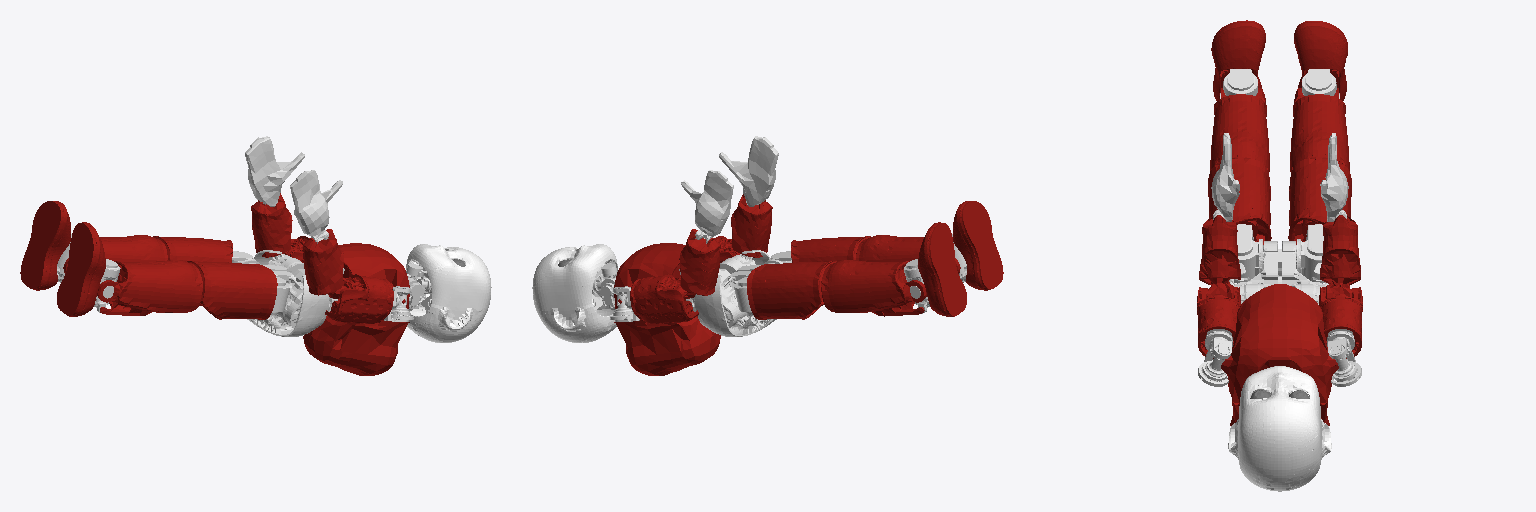
--- What the picture shows (computed from the rendered views, not written in the file) ---
Views: 3 orthographic renders of the robot side by side, from view 1: azimuth 30°, elevation 25°; view 2: azimuth 150°, elevation 25°; view 3: azimuth 270°, elevation 25°.
Model iCub with 221 links and 220 joints (35 revolute, 185 fixed), rooted at root_link_ems_gyro_eb5, posed joints at zero except 4 at the middle of their limits (r_ankle_pitch = 0.0349, l_ankle_pitch = 0.0349, r_elbow = 1.06, l_elbow = 1.06).
Links seen in each view (by area): view 1: chest, head, l_lower_leg, l_upper_leg, root_link, l_foot, r_foot, l_upper_arm, r_hand, l_forearm, l_hand, r_forearm (+2 smaller); view 2: chest, head, r_lower_leg, r_upper_leg, root_link, r_foot, l_foot, r_upper_arm, l_hand, r_forearm, r_hand, l_forearm (+2 smaller); view 3: head, chest, r_lower_leg, l_lower_leg, r_upper_leg, l_upper_leg, l_foot, r_foot, root_link, r_forearm, l_forearm, l_upper_arm (+7 smaller).
Link boxes in pixels (bbox=[...]): chest: bbox=[303, 243, 409, 375]; head: bbox=[406, 244, 491, 342]; l_lower_leg: bbox=[97, 260, 202, 315]; l_upper_leg: bbox=[187, 261, 277, 319]; root_link: bbox=[247, 250, 337, 336]; l_foot: bbox=[57, 222, 105, 316]; r_foot: bbox=[20, 201, 70, 290]; l_upper_arm: bbox=[325, 274, 393, 323]; r_hand: bbox=[245, 136, 304, 206]; l_forearm: bbox=[303, 229, 343, 295]; l_hand: bbox=[290, 170, 342, 235]; r_forearm: bbox=[251, 193, 292, 257]; chest: bbox=[614, 243, 720, 375]; head: bbox=[532, 244, 617, 342]; r_lower_leg: bbox=[821, 260, 926, 316]; r_upper_leg: bbox=[747, 261, 836, 319]; root_link: bbox=[686, 250, 776, 336]; r_foot: bbox=[918, 222, 966, 316]; l_foot: bbox=[953, 201, 1003, 290]; r_upper_arm: bbox=[630, 274, 698, 323]; l_hand: bbox=[719, 136, 778, 206]; r_forearm: bbox=[679, 229, 720, 295]; r_hand: bbox=[681, 170, 733, 236]; l_forearm: bbox=[731, 194, 772, 257]; head: bbox=[1228, 366, 1331, 491]; chest: bbox=[1213, 284, 1346, 425]; r_lower_leg: bbox=[1290, 88, 1349, 172]; l_lower_leg: bbox=[1210, 88, 1269, 172]; r_upper_leg: bbox=[1288, 157, 1351, 244]; l_upper_leg: bbox=[1208, 157, 1271, 244]; l_foot: bbox=[1211, 20, 1265, 100]; r_foot: bbox=[1294, 21, 1347, 100]; root_link: bbox=[1229, 241, 1328, 304]; r_forearm: bbox=[1320, 215, 1360, 286]; l_forearm: bbox=[1199, 215, 1240, 284]; l_upper_arm: bbox=[1197, 287, 1240, 356].
Size in the robot's own frame: 1.07 by 0.2993 by 0.5475 metres.
Meshes: 43 distinct files referenced, 43 mesh visuals loaded (43 binary STL).

The robot description file, URDF, robot "iCub":
<?xml version="1.0"?>
<robot name="iCub">
  <link name="root_link_ems_gyro_eb5"/>
  <joint name="root_link_ems_gyro_eb5_fixed_joint" type="fixed">
    <origin xyz="0.04933075609783985 -0.012577064000000082 -0.11569073437071034" rpy="-3.1415926535897922 1.291543646475815 3.1415926535897913"/>
    <parent link="root_link_ems_gyro_eb5"/>
    <child link="root_link"/>
  </joint>
  <link name="root_link">
    <inertial>
      <mass value="5.091434430146448"/>
      <origin xyz="0.024882092934029494 1.0394706346346644e-4 -0.044080600119273776" rpy="0 -0 0"/>
      <inertia ixx="0.02491237196237559" ixy="-1.55457835320208e-5" ixz="0.001709675630665086" iyy="0.013967889601452045" iyz="5.934883533372374e-6" izz="0.02021117593432375"/>
    </inertial>
    <visual>
      <origin xyz="0 0 0" rpy="0 -0 0"/>
      <geometry>
        <mesh filename="package://iCub/meshes/simmechanics/sim_sea_2-5_root_link.stl" scale="0.001 0.001 0.001"/>
      </geometry>
      <material name="">
        <color rgba="0.9 0.9 0.9 1"/>
      </material>
    </visual>
    <collision>
      <origin xyz="0 0 0" rpy="0 -0 0"/>
      <geometry>
        <mesh filename="package://iCub/meshes/simmechanics/sim_sea_2-5_root_link.stl" scale="0.001 0.001 0.001"/>
      </geometry>
      <material name="">
        <color rgba="0.9 0.9 0.9 1"/>
      </material>
    </collision>
  </link>
  <joint name="torso_pitch" type="revolute">
    <origin xyz="-8.326672684688674e-17 1.9073487735164804e-10 3.8163916471489756e-16" rpy="0 -1.5707963267948966 1.5707963267948968"/>
    <axis xyz="-6.16190875927568e-16 9.918924835528917e-17 1"/>
    <parent link="root_link"/>
    <child link="torso_1"/>
    <limit lower="-0.3490658503988659" upper="1.2217304763960306" effort="1e+9" velocity="1e+9"/>
    <dynamics damping="2" friction="0"/>
  </joint>
  <link name="torso_1">
    <inertial>
      <mass value="0.9396955301705031"/>
      <origin xyz="-0.14972164715096326 -0.0052668517625179614 -1.4564979941611578e-5" rpy="0 -0 0"/>
      <inertia ixx="0.004720901403777332" ixy="-5.464183641433563e-4" ixz="-1.3210371348211611e-5" iyy="0.04801736658347096" iyz="1.552010345699256e-5" izz="0.04406101778634505"/>
    </inertial>
    <visual>
      <origin xyz="0 0 0" rpy="0 -0 0"/>
      <geometry>
        <mesh filename="package://iCub/meshes/simmechanics/sim_ibbbbeba_torso_1.stl" scale="0.001 0.001 0.001"/>
      </geometry>
      <material name="">
        <color rgba="0.9 0.9 0.9 1"/>
      </material>
    </visual>
    <collision>
      <origin xyz="0 0 0" rpy="0 -0 0"/>
      <geometry>
        <mesh filename="package://iCub/meshes/simmechanics/sim_ibbbbeba_torso_1.stl" scale="0.001 0.001 0.001"/>
      </geometry>
      <material name="">
        <color rgba="0.9 0.9 0.9 1"/>
      </material>
    </collision>
  </link>
  <joint name="l_hip_pitch" type="revolute">
    <origin xyz="0.006451533137039854 -0.026000000000000096 -0.11991347391416343" rpy="0 4.0011865688625547e-13 3.141592653589789"/>
    <axis xyz="8.008968181776008e-15 -1 -8.008968181775964e-15"/>
    <parent link="root_link"/>
    <child link="l_hip_1"/>
    <limit lower="-0.7853981633974483" upper="2.3387411976724017" effort="1e+9" velocity="1e+9"/>
    <dynamics damping="2" friction="0"/>
  </joint>
  <link name="l_hip_1">
    <inertial>
      <mass value="0.9197245892356908"/>
      <origin xyz="-5.107870664846567e-4 0.038092326710011316 -8.218630143189132e-5" rpy="0 -0 0"/>
      <inertia ixx="0.01" ixy="3.3881317890172014e-21" ixz="6.617444900424222e-24" iyy="0.01" iyz="0" izz="0.01"/>
    </inertial>
    <visual>
      <origin xyz="0 0 0" rpy="0 -0 0"/>
      <geometry>
        <mesh filename="package://iCub/meshes/simmechanics/sim_sea_2-5_l_hip_1.stl" scale="0.001 0.001 0.001"/>
      </geometry>
      <material name="">
        <color rgba="0.9 0.9 0.9 1"/>
      </material>
    </visual>
    <collision>
      <origin xyz="0 0 0" rpy="0 -0 0"/>
      <geometry>
        <mesh filename="package://iCub/meshes/simmechanics/sim_sea_2-5_l_hip_1.stl" scale="0.001 0.001 0.001"/>
      </geometry>
      <material name="">
        <color rgba="0.9 0.9 0.9 1"/>
      </material>
    </collision>
  </link>
  <joint name="r_hip_pitch" type="revolute">
    <origin xyz="0.006451533137039951 0.02600000000000101 -0.11991347391416399" rpy="-1.110223024625566e-16 7.465702453101118e-13 3.141592653589789"/>
    <axis xyz="8.175063279033873e-15 -1 -8.175063279033792e-15"/>
    <parent link="root_link"/>
    <child link="r_hip_1"/>
    <limit lower="-0.7853981633974483" upper="2.3387411976724017" effort="1e+9" velocity="1e+9"/>
    <dynamics damping="2" friction="0"/>
  </joint>
  <link name="r_hip_1">
    <inertial>
      <mass value="0.9199776871108084"/>
      <origin xyz="-5.145107889555148e-4 -0.03807529070250517 -7.02939369952027e-5" rpy="0 -0 0"/>
      <inertia ixx="0.01" ixy="0" ixz="0" iyy="0.01" iyz="-4.235164736271502e-22" izz="0.01"/>
    </inertial>
    <visual>
      <origin xyz="0 0 0" rpy="0 -0 0"/>
      <geometry>
        <mesh filename="package://iCub/meshes/simmechanics/sim_sea_2-5_r_hip_1.stl" scale="0.001 0.001 0.001"/>
      </geometry>
      <material name="">
        <color rgba="0.9 0.9 0.9 1"/>
      </material>
    </visual>
    <collision>
      <origin xyz="0 0 0" rpy="0 -0 0"/>
      <geometry>
        <mesh filename="package://iCub/meshes/simmechanics/sim_sea_2-5_r_hip_1.stl" scale="0.001 0.001 0.001"/>
      </geometry>
      <material name="">
        <color rgba="0.9 0.9 0.9 1"/>
      </material>
    </collision>
  </link>
  <joint name="r_hip_roll" type="revolute">
    <origin xyz="-1.9073565643568102e-10 -0.04409999999999935 -1.1934897514720433e-15" rpy="-2.239128749779267e-14 -3.0320544236273194e-14 4.351101767179561e-15"/>
    <axis xyz="1 -2.6163525606402277e-14 -3.3084227166665015e-14"/>
    <parent link="r_hip_1"/>
    <child link="r_hip_2"/>
    <limit lower="-0.3490658503988659" upper="2.0943951023931953" effort="1e+9" velocity="1e+9"/>
    <dynamics damping="2" friction="0"/>
  </joint>
  <link name="r_hip_2">
    <inertial>
      <mass value="0.41324199271253426"/>
      <origin xyz="-9.314717410380952e-4 8.118662683215261e-6 -0.0448081569077631" rpy="0 -0 0"/>
      <inertia ixx="0.01" ixy="-8.271806125530277e-25" ixz="0" iyy="0.01" iyz="0" izz="0.01"/>
    </inertial>
    <visual>
      <origin xyz="0 0 0" rpy="0 -0 0"/>
      <geometry>
        <mesh filename="package://iCub/meshes/simmechanics/sim_sea_2-5_r_hip_2.stl" scale="0.001 0.001 0.001"/>
      </geometry>
      <material name="">
        <color rgba="0.9 0.9 0.9 1"/>
      </material>
    </visual>
    <collision>
      <origin xyz="0 0 0" rpy="0 -0 0"/>
      <geometry>
        <mesh filename="package://iCub/meshes/simmechanics/sim_sea_2-5_r_hip_2.stl" scale="0.001 0.001 0.001"/>
      </geometry>
      <material name="">
        <color rgba="0.9 0.9 0.9 1"/>
      </material>
    </collision>
  </link>
  <joint name="r_leg_ft_sensor" type="fixed">
    <origin xyz="-9.362846202413469e-4 1.389185421307726e-5 -0.07429999999999992" rpy="-3.1415926535897896 -2.367309349288817e-15 -1.1675103668747434e-14"/>
    <parent link="r_hip_2"/>
    <child link="r_hip_3"/>
  </joint>
  <link name="r_hip_3">
    <inertial>
      <mass value="0.12621177707937786"/>
      <origin xyz="-1.2293551581423617e-4 -2.8228840838542824e-4 0.008717720239662857" rpy="0 -0 0"/>
      <inertia ixx="0.01" ixy="-8.271806125530277e-25" ixz="-5.293955920339377e-23" iyy="0.01" iyz="0" izz="0.01"/>
    </inertial>
    <visual>
      <origin xyz="0 0 0" rpy="0 -0 0"/>
      <geometry>
        <mesh filename="package://iCub/meshes/simmechanics/sim_sea_2-5_r_upper_thigh.stl" scale="0.001 0.001 0.001"/>
      </geometry>
      <material name="">
        <color rgba="0.635 0.137 0.114 1"/>
      </material>
    </visual>
    <collision>
      <origin xyz="0 0 0" rpy="0 -0 0"/>
      <geometry>
        <mesh filename="package://iCub/meshes/simmechanics/sim_sea_2-5_r_upper_thigh.stl" scale="0.001 0.001 0.001"/>
      </geometry>
      <material name="">
        <color rgba="0.635 0.137 0.114 1"/>
      </material>
    </collision>
  </link>
  <joint name="r_hip_yaw" type="revolute">
    <origin xyz="-6.654399253847032e-15 -1.4849232954361469e-15 0.0143999997138958" rpy="-3.1415926535897905 -6.948779266578176e-15 -3.382208940300569e-15"/>
    <axis xyz="-2.080649515309335e-14 1.5268127249500356e-14 1"/>
    <parent link="r_hip_3"/>
    <child link="r_upper_leg"/>
    <limit lower="-1.3962634015954636" upper="1.3962634015954636" effort="1e+9" velocity="1e+9"/>
    <dynamics damping="2" friction="0"/>
  </joint>
  <link name="r_upper_leg">
    <inertial>
      <mass value="1.8035"/>
      <origin xyz="0.0033999817429844273 -2.9106680502571924e-5 -0.07895383758251928" rpy="0 -0 0"/>
      <inertia ixx="0.00798831614667078" ixy="6.771445682907141e-6" ixz="-1.6874459648962036e-4" iyy="0.008001053681007734" iyz="1.600573911731195e-4" izz="0.001802634149311544"/>
    </inertial>
    <visual>
      <origin xyz="0 0 0" rpy="0 -0 0"/>
      <geometry>
        <mesh filename="package://iCub/meshes/simmechanics/sim_sea_2-5_r_thigh.stl" scale="0.001 0.001 0.001"/>
      </geometry>
      <material name="">
        <color rgba="0.635 0.137 0.114 1"/>
      </material>
    </visual>
    <collision>
      <origin xyz="0 0 0" rpy="0 -0 0"/>
      <geometry>
        <mesh filename="package://iCub/meshes/simmechanics/sim_sea_2-5_r_thigh.stl" scale="0.001 0.001 0.001"/>
      </geometry>
      <material name="">
        <color rgba="0.635 0.137 0.114 1"/>
      </material>
    </collision>
  </link>
  <joint name="r_knee" type="revolute">
    <origin xyz="-4.85722573273506e-17 1.9073422008464291e-10 -0.145825" rpy="3.9209981858231416e-15 -2.220446049250443e-16 -4.441948989685715e-15"/>
    <axis xyz="-1.4934554061540765e-14 1 1.5350925835905035e-14"/>
    <parent link="r_upper_leg"/>
    <child link="r_lower_leg"/>
    <limit lower="-2.1642082724729685" upper="0.06981317007977318" effort="1e+9" velocity="1e+9"/>
    <dynamics damping="2" friction="0"/>
  </joint>
  <link name="r_lower_leg">
    <inertial>
      <mass value="1.472"/>
      <origin xyz="0.0012363724375026378 -0.0035131124035756157 -0.08879336221708879" rpy="0 -0 0"/>
      <inertia ixx="0.005849837841009939" ixy="-7.106987814071767e-5" ixz="-3.378387347449724e-4" iyy="0.00542308170581538" iyz="2.926646766033281e-4" izz="0.0019453692759247086"/>
    </inertial>
    <visual>
      <origin xyz="0 0 0" rpy="0 -0 0"/>
      <geometry>
        <mesh filename="package://iCub/meshes/simmechanics/sim_sea_2-5_r_shank.stl" scale="0.001 0.001 0.001"/>
      </geometry>
      <material name="">
        <color rgba="0.635 0.137 0.114 1"/>
      </material>
    </visual>
    <collision>
      <origin xyz="0 0 0" rpy="0 -0 0"/>
      <geometry>
        <mesh filename="package://iCub/meshes/simmechanics/sim_sea_2-5_r_shank.stl" scale="0.001 0.001 0.001"/>
      </geometry>
      <material name="">
        <color rgba="0.635 0.137 0.114 1"/>
      </material>
    </collision>
  </link>
  <joint name="r_ankle_pitch" type="revolute">
    <origin xyz="4.718447854656915e-16 -9.020562075079397e-16 -0.20049999999999985" rpy="3.798533505908401e-15 4.537987685758694e-16 -3.6511840637036526e-15"/>
    <axis xyz="1.6922193422825768e-14 -1 -1.5473390515819732e-14"/>
    <parent link="r_lower_leg"/>
    <child link="r_ankle_1"/>
    <limit lower="0.03490658503988659" upper="0.03490658503988659" effort="1e+9" velocity="1e+9"/>
    <dynamics damping="2" friction="0"/>
  </joint>
  <link name="r_ankle_1">
    <inertial>
      <mass value="0.6803"/>
      <origin xyz="0.015143632873313193 -8.685545857572696e-4 4.285874889187191e-5" rpy="0 -0 0"/>
      <inertia ixx="0.01" ixy="0" ixz="-1.0587911840678754e-22" iyy="0.01" iyz="0" izz="0.01"/>
    </inertial>
    <visual>
      <origin xyz="0 0 0" rpy="0 -0 0"/>
      <geometry>
        <mesh filename="package://iCub/meshes/simmechanics/sim_sea_2-5_r_ankle.stl" scale="0.001 0.001 0.001"/>
      </geometry>
      <material name="">
        <color rgba="0.9 0.9 0.9 1"/>
      </material>
    </visual>
    <collision>
      <origin xyz="0 0 0" rpy="0 -0 0"/>
      <geometry>
        <mesh filename="package://iCub/meshes/simmechanics/sim_sea_2-5_r_ankle.stl" scale="0.001 0.001 0.001"/>
      </geometry>
      <material name="">
        <color rgba="0.9 0.9 0.9 1"/>
      </material>
    </collision>
  </link>
  <joint name="r_ankle_roll" type="revolute">
    <origin xyz="-1.9073465723495886e-10 1.2503886814840826e-14 9.992007221626409e-16" rpy="8.188047626331454e-14 2.3270922728211533e-14 -7.652109591605573e-15"/>
    <axis xyz="1 -1.0494425887568333e-14 3.142167137936615e-14"/>
    <parent link="r_ankle_1"/>
    <child link="r_ankle_2"/>
    <limit lower="-0.4363323129985824" upper="0.4363323129985824" effort="1e+9" velocity="1e+9"/>
    <dynamics damping="2" friction="0"/>
  </joint>
  <link name="r_ankle_2">
    <inertial>
      <mass value="0.2651217577323905"/>
      <origin xyz="0.0011446221516383664 3.612241451150799e-6 -0.038519685980271334" rpy="0 -0 0"/>
      <inertia ixx="0.01" ixy="-2.0679515313825692e-25" ixz="0" iyy="0.01" iyz="0" izz="0.01"/>
    </inertial>
    <visual>
      <origin xyz="0 0 0" rpy="0 -0 0"/>
      <geometry>
        <mesh filename="package://iCub/meshes/simmechanics/sim_sea_2-5_r_foot.stl" scale="0.001 0.001 0.001"/>
      </geometry>
      <material name="">
        <color rgba="0.9 0.9 0.9 1"/>
      </material>
    </visual>
    <collision>
      <origin xyz="0 0 0" rpy="0 -0 0"/>
      <geometry>
        <mesh filename="package://iCub/meshes/simmechanics/sim_sea_2-5_r_foot.stl" scale="0.001 0.001 0.001"/>
      </geometry>
      <material name="">
        <color rgba="0.9 0.9 0.9 1"/>
      </material>
    </collision>
  </link>
  <joint name="r_foot_ft_sensor" type="fixed">
    <origin xyz="-0.003499999999999892 -3.191891195797325e-16 -0.06050000000000044" rpy="-3.1415926535897643 -4.853755200679018e-16 1.8558877025033924e-15"/>
    <parent link="r_ankle_2"/>
    <child link="r_foot"/>
  </joint>
  <link name="r_foot">
    <inertial>
      <mass value="0.38286630238196906"/>
      <origin xyz="0.03360009230114006 0.005371881477558293 -0.0011478444586517922" rpy="0 -0 0"/>
      <inertia ixx="0.01" ixy="1.3552527156068805e-20" ixz="-3.3881317890172014e-21" iyy="0.01" iyz="0" izz="0.01"/>
    </inertial>
    <visual>
      <origin xyz="0 0 0" rpy="0 -0 0"/>
      <geometry>
        <mesh filename="package://iCub/meshes/simmechanics/sim_sea_2-5_r_sole.stl" scale="0.001 0.001 0.001"/>
      </geometry>
      <material name="">
        <color rgba="0.635 0.137 0.114 1"/>
      </material>
    </visual>
    <collision>
      <origin xyz="0.03 0.005 0.014" rpy="0 -0 0"/>
      <geometry>
        <box size="0.16 0.072 0.001"/>
      </geometry>
    </collision>
  </link>
  <joint name="l_hip_roll" type="revolute">
    <origin xyz="-1.9073494866850282e-10 0.044100000000000236 5.551115123125783e-16" rpy="6.890465552321475e-14 -1.1590728377086674e-14 7.364199681273609e-15"/>
    <axis xyz="-0.999999999999998 2.906647793090718e-14 1.1696369637952586e-14"/>
    <parent link="l_hip_1"/>
    <child link="l_hip_2"/>
    <limit lower="-0.3490658503988659" upper="2.0943951023931953" effort="1e+9" velocity="1e+9"/>
    <dynamics damping="2" friction="0"/>
  </joint>
  <link name="l_hip_2">
    <inertial>
      <mass value="0.41598700771524383"/>
      <origin xyz="-0.0011062770838719121 1.7303838524274084e-5 -0.0445730373888362" rpy="0 -0 0"/>
      <inertia ixx="0.01" ixy="-1.6543612251060553e-24" ixz="-3.3881317890172014e-21" iyy="0.01" iyz="5.293955920339377e-23" izz="0.01"/>
    </inertial>
    <visual>
      <origin xyz="0 0 0" rpy="0 -0 0"/>
      <geometry>
        <mesh filename="package://iCub/meshes/simmechanics/sim_sea_2-5_l_hip_2.stl" scale="0.001 0.001 0.001"/>
      </geometry>
      <material name="">
        <color rgba="0.9 0.9 0.9 1"/>
      </material>
    </visual>
    <collision>
      <origin xyz="0 0 0" rpy="0 -0 0"/>
      <geometry>
        <mesh filename="package://iCub/meshes/simmechanics/sim_sea_2-5_l_hip_2.stl" scale="0.001 0.001 0.001"/>
      </geometry>
      <material name="">
        <color rgba="0.9 0.9 0.9 1"/>
      </material>
    </collision>
  </link>
  <joint name="l_leg_ft_sensor" type="fixed">
    <origin xyz="-8.301383885371272e-4 7.517540966175962e-5 -0.07429999999999948" rpy="-3.141592653589785 -1.647008793326878e-14 1.1205935393672556e-14"/>
    <parent link="l_hip_2"/>
    <child link="l_hip_3"/>
  </joint>
  <link name="l_hip_3">
    <inertial>
      <mass value="0.12621177707937786"/>
      <origin xyz="-1.2293551581426393e-4 -2.8228840838542824e-4 0.00871772023966294" rpy="0 -0 0"/>
      <inertia ixx="0.01" ixy="-8.271806125530277e-25" ixz="2.6469779601696886e-23" iyy="0.01" iyz="5.293955920339377e-23" izz="0.01"/>
    </inertial>
    <visual>
      <origin xyz="0 0 0" rpy="0 -0 0"/>
      <geometry>
        <mesh filename="package://iCub/meshes/simmechanics/sim_sea_2-5_l_upper_thigh.stl" scale="0.001 0.001 0.001"/>
      </geometry>
      <material name="">
        <color rgba="0.635 0.137 0.114 1"/>
      </material>
    </visual>
    <collision>
      <origin xyz="0 0 0" rpy="0 -0 0"/>
      <geometry>
        <mesh filename="package://iCub/meshes/simmechanics/sim_sea_2-5_l_upper_thigh.stl" scale="0.001 0.001 0.001"/>
      </geometry>
      <material name="">
        <color rgba="0.635 0.137 0.114 1"/>
      </material>
    </collision>
  </link>
  <joint name="l_hip_yaw" type="revolute">
    <origin xyz="-2.0816681711721685e-17 -8.326672684688674e-17 0.014399999713897826" rpy="3.141592653589784 3.3306690738763083e-16 1.1488680941963064e-14"/>
    <axis xyz="-7.749471415023418e-16 2.0406078820946993e-14 -0.9999999999999943"/>
    <parent link="l_hip_3"/>
    <child link="l_upper_leg"/>
    <limit lower="-1.3962634015954636" upper="1.3962634015954636" effort="1e+9" velocity="1e+9"/>
    <dynamics damping="2" friction="0"/>
  </joint>
  <link name="l_upper_leg">
    <inertial>
      <mass value="1.8084"/>
      <origin xyz="0.003386876722809913 1.0177760273596959e-4 -0.07891536835288274" rpy="0 -0 0"/>
      <inertia ixx="0.007995288129220703" ixy="-4.906158203114439e-6" ixz="-1.6891084965843132e-4" iyy="0.008006319584722317" iyz="-1.533469718730683e-4" izz="0.0018055577718713413"/>
    </inertial>
    <visual>
      <origin xyz="0 0 0" rpy="0 -0 0"/>
      <geometry>
        <mesh filename="package://iCub/meshes/simmechanics/sim_sea_2-5_l_thigh.stl" scale="0.001 0.001 0.001"/>
      </geometry>
      <material name="">
        <color rgba="0.635 0.137 0.114 1"/>
      </material>
    </visual>
    <collision>
      <origin xyz="0 0 0" rpy="0 -0 0"/>
      <geometry>
        <mesh filename="package://iCub/meshes/simmechanics/sim_sea_2-5_l_thigh.stl" scale="0.001 0.001 0.001"/>
      </geometry>
      <material name="">
        <color rgba="0.635 0.137 0.114 1"/>
      </material>
    </collision>
  </link>
  <joint name="l_knee" type="revolute">
    <origin xyz="2.7755575615628914e-17 -1.907324159722279e-10 -0.1458249999999985" rpy="2.0279971112305128e-14 -9.809023569240419e-15 -5.8320819929628436e-15"/>
    <axis xyz="-1.7019517803789784e-14 1 -1.0624352005446662e-13"/>
    <parent link="l_upper_leg"/>
    <child link="l_lower_leg"/>
    <limit lower="-2.1642082724729685" upper="0.06981317007977318" effort="1e+9" velocity="1e+9"/>
    <dynamics damping="2" friction="0"/>
  </joint>
  <link name="l_lower_leg">
    <inertial>
      <mass value="1.4724"/>
      <origin xyz="9.997240681527825e-4 0.003496928646772452 -0.0885663384646591" rpy="0 -0 0"/>
      <inertia ixx="0.005845033575812899" ixy="8.648028937416422e-5" ixz="-2.9818499521721507e-4" iyy="0.005419015222541613" iyz="-3.0646327645888073e-4" izz="0.001946877788949547"/>
    </inertial>
    <visual>
      <origin xyz="0 0 0" rpy="0 -0 0"/>
      <geometry>
        <mesh filename="package://iCub/meshes/simmechanics/sim_sea_2-5_l_shank.stl" scale="0.001 0.001 0.001"/>
      </geometry>
      <material name="">
        <color rgba="0.635 0.137 0.114 1"/>
      </material>
    </visual>
    <collision>
      <origin xyz="0 0 0" rpy="0 -0 0"/>
      <geometry>
        <mesh filename="package://iCub/meshes/simmechanics/sim_sea_2-5_l_shank.stl" scale="0.001 0.001 0.001"/>
      </geometry>
      <material name="">
        <color rgba="0.635 0.137 0.114 1"/>
      </material>
    </collision>
  </link>
  <joint name="l_ankle_pitch" type="revolute">
    <origin xyz="-1.8735013540549517e-16 3.1363800445660672e-15 -0.2005000000000003" rpy="1.6421859900920396e-14 -2.811194314246226e-15 -3.249872581348591e-15"/>
    <axis xyz="1.7552765002815832e-14 -1 7.973463690438263e-14"/>
    <parent link="l_lower_leg"/>
    <child link="l_ankle_1"/>
    <limit lower="0.03490658503988659" upper="0.03490658503988659" effort="1e+9" velocity="1e+9"/>
    <dynamics damping="2" friction="0"/>
  </joint>
  <link name="l_ankle_1">
    <inertial>
      <mass value="0.6798"/>
      <origin xyz="0.015153079035375466 9.02066623200956e-4 4.2885482945176356e-5" rpy="0 -0 0"/>
      <inertia ixx="0.01" ixy="1.6940658945086007e-21" ixz="-5.293955920339377e-23" iyy="0.01" iyz="3.308722450212111e-24" izz="0.01"/>
    </inertial>
    <visual>
      <origin xyz="0 0 0" rpy="0 -0 0"/>
      <geometry>
        <mesh filename="package://iCub/meshes/simmechanics/sim_sea_2-5_l_ankle.stl" scale="0.001 0.001 0.001"/>
      </geometry>
      <material name="">
        <color rgba="0.9 0.9 0.9 1"/>
      </material>
    </visual>
    <collision>
      <origin xyz="0 0 0" rpy="0 -0 0"/>
      <geometry>
        <mesh filename="package://iCub/meshes/simmechanics/sim_sea_2-5_l_ankle.stl" scale="0.001 0.001 0.001"/>
      </geometry>
      <material name="">
        <color rgba="0.9 0.9 0.9 1"/>
      </material>
    </collision>
  </link>
  <joint name="l_ankle_roll" type="revolute">
    <origin xyz="-1.9073683604764469e-10 -2.971234369653075e-14 1.1102230246251565e-16" rpy="-6.535841370535851e-14 9.502503404364734e-15 2.5046742930875477e-15"/>
    <axis xyz="-0.9999999999999983 1.9663419506723466e-14 -2.225885610944277e-14"/>
    <parent link="l_ankle_1"/>
    <child link="l_ankle_2"/>
    <limit lower="-0.4363323129985824" upper="0.4363323129985824" effort="1e+9" velocity="1e+9"/>
    <dynamics damping="2" friction="0"/>
  </joint>
  <link name="l_ankle_2">
    <inertial>
      <mass value="0.2651217577323905"/>
      <origin xyz="0.0011446221516383595 3.612241451150799e-6 -0.03851968598027122" rpy="0 -0 0"/>
      <inertia ixx="0.01" ixy="-2.0679515313825692e-25" ixz="0" iyy="0.01" iyz="0" izz="0.01"/>
    </inertial>
    <visual>
      <origin xyz="0 0 0" rpy="0 -0 0"/>
      <geometry>
        <mesh filename="package://iCub/meshes/simmechanics/sim_sea_2-5_l_foot.stl" scale="0.001 0.001 0.001"/>
      </geometry>
      <material name="">
        <color rgba="0.9 0.9 0.9 1"/>
      </material>
    </visual>
    <collision>
      <origin xyz="0 0 0" rpy="0 -0 0"/>
      <geometry>
        <mesh filename="package://iCub/meshes/simmechanics/sim_sea_2-5_l_foot.stl" scale="0.001 0.001 0.001"/>
      </geometry>
      <material name="">
        <color rgba="0.9 0.9 0.9 1"/>
      </material>
    </collision>
  </link>
  <joint name="l_foot_ft_sensor" type="fixed">
    <origin xyz="-0.0034999999999986778 -8.326672684688674e-17 -0.060500000000001775" rpy="3.141592653589775 -3.109703981585997e-14 -1.6451201363593442e-15"/>
    <parent link="l_ankle_2"/>
    <child link="l_foot"/>
  </joint>
  <link name="l_foot">
    <inertial>
      <mass value="0.3829681079636351"/>
      <origin xyz="0.033666831177098594 -0.005373551265676624 -0.0011649017206464274" rpy="0 -0 0"/>
      <inertia ixx="0.01" ixy="-1.3552527156068805e-20" ixz="1.6940658945086007e-21" iyy="0.01" iyz="4.235164736271502e-22" izz="0.01"/>
    </inertial>
    <visual>
      <origin xyz="0 0 0" rpy="0 -0 0"/>
      <geometry>
        <mesh filename="package://iCub/meshes/simmechanics/sim_sea_2-5_l_sole.stl" scale="0.001 0.001 0.001"/>
      </geometry>
      <material name="">
        <color rgba="0.635 0.137 0.114 1"/>
      </material>
    </visual>
    <collision>
      <origin xyz="0.03 -0.005 0.014" rpy="0 -0 0"/>
      <geometry>
        <box size="0.16 0.072 0.001"/>
      </geometry>
    </collision>
  </link>
  <joint name="torso_roll" type="revolute">
    <origin xyz="0.03200000000000003 -2.7755575615628914e-17 3.2260373727837335e-18" rpy="1.5707963267948966 2.7755575615625423e-16 1.6653345369377496e-16"/>
    <axis xyz="-5.604601222114769e-17 -1.956893277243928e-30 1"/>
    <parent link="torso_1"/>
    <child link="torso_2"/>
    <limit lower="-0.5235987755982988" upper="0.5235987755982988" effort="1e+9" velocity="1e+9"/>
    <dynamics damping="2" friction="0"/>
  </joint>
  <link name="torso_2">
    <inertial>
      <mass value="0.41050563512581734"/>
      <origin xyz="0.036410112277072984 -8.303402519331055e-5 -9.743996311575957e-4" rpy="0 -0 0"/>
      <inertia ixx="4.0320355040279537e-4" ixy="6.674011384537116e-7" ixz="-4.852072971890131e-6" iyy="7.97054425276088e-4" iyz="-3.898066028858139e-7" izz="5.799254975200551e-4"/>
    </inertial>
    <visual>
      <origin xyz="0 0 0" rpy="0 -0 0"/>
      <geometry>
        <mesh filename="package://iCub/meshes/simmechanics/sim_ibbbbeba_torso_2.stl" scale="0.001 0.001 0.001"/>
      </geometry>
      <material name="">
        <color rgba="0.9 0.9 0.9 1"/>
      </material>
    </visual>
    <collision>
      <origin xyz="0 0 0" rpy="0 -0 0"/>
      <geometry>
        <mesh filename="package://iCub/meshes/simmechanics/sim_ibbbbeba_torso_2.stl" scale="0.001 0.001 0.001"/>
      </geometry>
      <material name="">
        <color rgba="0.9 0.9 0.9 1"/>
      </material>
    </collision>
  </link>
  <joint name="torso_yaw" type="revolute">
    <origin xyz="1.3881107205385788e-16 -9.387574833679785e-17 -0.00549750000000002" rpy="1.5707963267949006 -5.740533331723978e-15 -1.5707963267948963"/>
    <axis xyz="-1.6772106946427544e-30 3.9611264300712235e-15 1"/>
    <parent link="torso_2"/>
    <child link="chest"/>
    <limit lower="-0.8726646259971648" upper="0.8726646259971648" effort="1e+9" velocity="1e+9"/>
    <dynamics damping="2" friction="0"/>
  </joint>
  <link name="chest">
    <inertial>
      <mass value="5.6604"/>
      <origin xyz="-3.2751292905536185e-4 0.03483164863921498 -0.12269226165300759" rpy="0 -0 0"/>
      <inertia ixx="0.02559313720635091" ixy="1.6420136021866593e-4" ixz="2.146334152740344e-5" iyy="0.019909630439574402" iyz="7.210167669812369e-4" izz="0.030822396571942374"/>
    </inertial>
    <visual>
      <origin xyz="0 0 0" rpy="0 -0 0"/>
      <geometry>
        <mesh filename="package://iCub/meshes/simmechanics/sim_ibbbbeba_chest.stl" scale="0.001 0.001 0.001"/>
      </geometry>
      <material name="">
        <color rgba="0.635 0.137 0.114 1"/>
      </material>
    </visual>
    <collision>
      <origin xyz="0 0 0" rpy="0 -0 0"/>
      <geometry>
        <mesh filename="package://iCub/meshes/simmechanics/sim_ibbbbeba_chest.stl" scale="0.001 0.001 0.001"/>
      </geometry>
      <material name="">
        <color rgba="0.635 0.137 0.114 1"/>
      </material>
    </collision>
  </link>
  <joint name="neck_fixed_joint" type="fixed">
    <origin xyz="-2.0352104724025257e-16 0.00318966680861121 -0.1743" rpy="-1.5707963267948963 -3.725052415305993e-15 -1.5707963267949012"/>
    <parent link="chest"/>
    <child link="neck_1"/>
  </joint>
  <link name="neck_1">
    <inertial>
      <mass value="0.25534343767750867"/>
      <origin xyz="0.006502353979325035 0.03951867979292781 0.0026014659916752535" rpy="0 -0 0"/>
      <inertia ixx="1.9798417360695282e-4" ixy="-1.4555380320348726e-5" ixz="-7.231110916990262e-7" iyy="1.2383997644700237e-4" iyz="-5.1096010118861105e-6" izz="1.2095454069594683e-4"/>
    </inertial>
    <visual>
      <origin xyz="0 0 0" rpy="0 -0 0"/>
      <geometry>
        <mesh filename="package://iCub/meshes/simmechanics/sim_ibbbbeba_neck_1.stl" scale="0.001 0.001 0.001"/>
      </geometry>
      <material name="">
        <color rgba="0.9 0.9 0.9 1"/>
      </material>
    </visual>
    <collision>
      <origin xyz="0 0 0" rpy="0 -0 0"/>
      <geometry>
        <mesh filename="package://iCub/meshes/simmechanics/sim_ibbbbeba_neck_1.stl" scale="0.001 0.001 0.001"/>
      </geometry>
      <material name="">
        <color rgba="0.9 0.9 0.9 1"/>
      </material>
    </collision>
  </link>
  <joint name="l_shoulder_pitch" type="revolute">
    <origin xyz="-0.21926516256761877 -0.034562970454674984 -0.14329999999999937" rpy="1.5707963267948932 2.680152602790163e-15 0.5235987755982917"/>
    <axis xyz="-0.965925826289068 -6.547668124741086e-16 -0.25881904510252085"/>
    <parent link="chest"/>
    <child link="l_shoulder_1"/>
    <limit lower="-1.6667894356545847" upper="0.17453292519943295" effort="1e+9" velocity="1e+9"/>
    <dynamics damping="2" friction="0"/>
  </joint>
  <link name="l_shoulder_1">
    <inertial>
      <mass value="0.11488218980496621"/>
      <origin xyz="0.11127231408795926 -3.3357829892030096e-5 0.023323154747420916" rpy="0 -0 0"/>
      <inertia ixx="0.01" ixy="-5.293955920339377e-23" ixz="5.421010862427522e-20" iyy="0.01" iyz="-1.3234889800848443e-23" izz="0.01"/>
    </inertial>
    <visual>
      <origin xyz="0 0 0" rpy="0 -0 0"/>
      <geometry>
        <mesh filename="package://iCub/meshes/simmechanics/sim_sea_2-5_l_shoulder_1.stl" scale="0.001 0.001 0.001"/>
      </geometry>
      <material name="">
        <color rgba="0.9 0.9 0.9 1"/>
      </material>
    </visual>
    <collision>
      <origin xyz="0 0 0" rpy="0 -0 0"/>
      <geometry>
        <mesh filename="package://iCub/meshes/simmechanics/sim_sea_2-5_l_shoulder_1.stl" scale="0.001 0.001 0.001"/>
      </geometry>
      <material name="">
        <color rgba="0.9 0.9 0.9 1"/>
      </material>
    </collision>
  </link>
  <joint name="r_shoulder_pitch" type="revolute">
    <origin xyz="0.21926516256761822 -0.03456297045467782 -0.1433" rpy="1.5707963267948932 -2.0494245074624956e-15 -0.523598775598306"/>
    <axis xyz="-0.9659258262890683 6.646405560070906e-17 0.25881904510252113"/>
    <parent link="chest"/>
    <child link="r_shoulder_1"/>
    <limit lower="-1.6667894356545847" upper="0.17453292519943295" effort="1e+9" velocity="1e+9"/>
    <dynamics damping="2" friction="0"/>
  </joint>
  <link name="r_shoulder_1">
    <inertial>
      <mass value="0.11486201283439874"/>
      <origin xyz="-0.11127353650774183 3.1870556723391445e-5 0.023318604341796077" rpy="0 -0 0"/>
      <inertia ixx="0.01" ixy="0" ixz="-5.421010862427522e-20" iyy="0.01" iyz="-1.3234889800848443e-23" izz="0.009999999999999998"/>
    </inertial>
    <visual>
      <origin xyz="0 0 0" rpy="0 -0 0"/>
      <geometry>
        <mesh filename="package://iCub/meshes/simmechanics/sim_sea_2-5_r_shoulder_1.stl" scale="0.001 0.001 0.001"/>
      </geometry>
      <material name="">
        <color rgba="0.9 0.9 0.9 1"/>
      </material>
    </visual>
    <collision>
      <origin xyz="0 0 0" rpy="0 -0 0"/>
      <geometry>
        <mesh filename="package://iCub/meshes/simmechanics/sim_sea_2-5_r_shoulder_1.stl" scale="0.001 0.001 0.001"/>
      </geometry>
      <material name="">
        <color rgba="0.9 0.9 0.9 1"/>
      </material>
    </collision>
  </link>
  <joint name="r_shoulder_roll" type="revolute">
    <origin xyz="-0.1096325812591268 2.7755575615628914e-16 0.029375961711252167" rpy="-0.270597415122226 -0.2526802551420781 -1.501556832463"/>
    <axis xyz="-0.2588190451025205 3.608224830031759e-16 -0.9659258262890686"/>
    <parent link="r_shoulder_1"/>
    <child link="r_shoulder_2"/>
    <limit lower="0" upper="2.8064894372068823" effort="1e+9" velocity="1e+9"/>
    <dynamics damping="2" friction="0"/>
  </joint>
  <link name="r_shoulder_2">
    <inertial>
      <mass value="0.23816207621727728"/>
      <origin xyz="-0.01836975923741123 2.715236458061234e-4 -0.00807692369953424" rpy="0 -0 0"/>
      <inertia ixx="0.01" ixy="-2.117582368135751e-22" ixz="0" iyy="0.01" iyz="0" izz="0.01"/>
    </inertial>
    <visual>
      <origin xyz="0.1096325812838068 5.733434560480061e-15 -0.0293759616191354" rpy="0 -0 0"/>
      <geometry>
        <mesh filename="package://iCub/meshes/simmechanics/sim_sea_2-5_r_shoulder_2.stl" scale="0.001 0.001 0.001"/>
      </geometry>
      <material name="">
        <color rgba="0.9 0.9 0.9 1"/>
      </material>
    </visual>
    <collision>
      <origin xyz="0.1096325812838068 5.733434560480061e-15 -0.0293759616191354" rpy="0 -0 0"/>
      <geometry>
        <mesh filename="package://iCub/meshes/simmechanics/sim_sea_2-5_r_shoulder_2.stl" scale="0.001 0.001 0.001"/>
      </geometry>
      <material name="">
        <color rgba="0.9 0.9 0.9 1"/>
      </material>
    </collision>
  </link>
  <joint name="r_shoulder_yaw" type="revolute">
    <origin xyz="-0.0770808809378703 5.787471196727623e-15 0.020653759799181805" rpy="-0.7680675185785425 -1.2026962440622158 0.8027288082163563"/>
    <axis xyz="-1.942890293094024e-16 2.2898349882893854e-15 -0.9999999999999999"/>
    <parent link="r_shoulder_2"/>
    <child link="r_shoulder_3"/>
    <limit lower="-0.6457718232379019" upper="1.3962634015954636" effort="1e+9" velocity="1e+9"/>
    <dynamics damping="2" friction="0"/>
  </joint>
  <link name="r_shoulder_3">
    <inertial>
      <mass value="0.35913012600763977"/>
      <origin xyz="0.007272501606877855 -6.6558223219550735e-6 -0.027057227110656813" rpy="0 -0 0"/>
      <inertia ixx="0.01" ixy="0" ixz="0" iyy="0.01" iyz="1.3234889800848443e-23" izz="0.01"/>
    </inertial>
    <visual>
      <origin xyz="0.015000000000000369 7.148337477502769e-16 -6.938893903907228e-18" rpy="0 -0 0"/>
      <geometry>
        <mesh filename="package://iCub/meshes/simmechanics/sim_sea_2-5_r_upper_arm.stl" scale="0.001 0.001 0.001"/>
      </geometry>
      <material name="">
        <color rgba="0.9 0.9 0.9 1"/>
      </material>
    </visual>
    <collision>
      <origin xyz="0.015000000000000369 7.148337477502769e-16 -6.938893903907228e-18" rpy="0 -0 0"/>
      <geometry>
        <mesh filename="package://iCub/meshes/simmechanics/sim_sea_2-5_r_upper_arm.stl" scale="0.001 0.001 0.001"/>
      </geometry>
      <material name="">
        <color rgba="0.9 0.9 0.9 1"/>
      </material>
    </collision>
  </link>
  <joint name="r_arm_ft_sensor" type="fixed">
    <origin xyz="-4.461708780212348e-15 4.650335672096167e-16 -0.19330000000000014" rpy="9.963911222835877e-17 1.30899693899577 -2.6725323554652664e-16"/>
    <parent link="r_shoulder_3"/>
    <child link="r_upper_arm"/>
  </joint>
  <link name="r_upper_arm">
    <inertial>
      <mass value="0.7451037087096063"/>
      <origin xyz="-0.2127198735291465 1.2620027418069985e-4 0.06622555453149477" rpy="0 -0 0"/>
      <inertia ixx="5.095273109460507e-4" ixy="1.192919149554172e-6" ixz="-1.1742609735665085e-5" iyy="6.684870230505013e-4" iyz="1.133628807880581e-6" izz="5.992541710011512e-4"/>
    </inertial>
    <visual>
      <origin xyz="0 0 0" rpy="0 -0 0"/>
      <geometry>
        <mesh filename="package://iCub/meshes/simmechanics/sim_sea_2-5_r_elbow.stl" scale="0.001 0.001 0.001"/>
      </geometry>
      <material name="">
        <color rgba="0.635 0.137 0.114 1"/>
      </material>
    </visual>
    <collision>
      <origin xyz="0 0 0" rpy="0 -0 0"/>
      <geometry>
        <mesh filename="package://iCub/meshes/simmechanics/sim_sea_2-5_r_elbow.stl" scale="0.001 0.001 0.001"/>
      </geometry>
      <material name="">
        <color rgba="0.635 0.137 0.114 1"/>
      </material>
    </collision>
  </link>
  <joint name="r_elbow" type="revolute">
    <origin xyz="-0.259390457536811 7.74380559676056e-17 0.08503260632747908" rpy="-2.9490810041720703e-16 8.049116928532355e-16 7.902038734818327e-17"/>
    <axis xyz="7.90203873481838e-17 1 -9.408183965568815e-16"/>
    <parent link="r_upper_arm"/>
    <child link="r_elbow_1"/>
    <limit lower="0.2617993877991494" upper="1.8500490071139892" effort="1e+9" velocity="1e+9"/>
    <dynamics damping="2" friction="0"/>
  </joint>
  <link name="r_elbow_1">
    <inertial>
      <mass value="0.2679029478431271"/>
      <origin xyz="-0.006739171723434634 -0.003697815539670896 -0.004657697041977646" rpy="0 -0 0"/>
      <inertia ixx="0.01" ixy="0" ixz="1.6940658945086007e-21" iyy="0.010000000000000002" iyz="-8.470329472543003e-22" izz="0.010000000000000002"/>
    </inertial>
    <visual>
      <origin xyz="0.259390457536811 -1.0061396160665481e-16 -0.08503260632747903" rpy="0 -0 0"/>
      <geometry>
        <mesh filename="package://iCub/meshes/simmechanics/sim_sea_2-5_r_elbow_prosup.stl" scale="0.001 0.001 0.001"/>
      </geometry>
      <material name="">
        <color rgba="0.635 0.137 0.114 1"/>
      </material>
    </visual>
    <collision>
      <origin xyz="0.259390457536811 -1.0061396160665481e-16 -0.08503260632747903" rpy="0 -0 0"/>
      <geometry>
        <mesh filename="package://iCub/meshes/simmechanics/sim_sea_2-5_r_elbow_prosup.stl" scale="0.001 0.001 0.001"/>
      </geometry>
      <material name="">
        <color rgba="0.635 0.137 0.114 1"/>
      </material>
    </collision>
  </link>
  <joint name="r_wrist_prosup" type="revolute">
    <origin xyz="0.25842453171052215 -1.2836953722228372e-16 -0.08477378728237618" rpy="-2.2775517111617493e-15 -8.604228440844978e-16 4.863705301149748e-16"/>
    <axis xyz="0.9659258262890689 -2.506484775442862e-16 -0.25881904510252135"/>
    <parent link="r_elbow_1"/>
    <child link="r_forearm"/>
    <limit lower="-1.0471975511965976" upper="1.0471975511965976" effort="1e+9" velocity="1e+9"/>
    <dynamics damping="2" friction="0"/>
  </joint>
  <link name="r_forearm">
    <inertial>
      <mass value="0.6347004970388653"/>
      <origin xyz="-0.33732610063031404 -3.278526032017189e-4 0.08487797525513484" rpy="0 -0 0"/>
      <inertia ixx="3.700439563167736e-4" ixy="-1.6541853418417088e-6" ixz="1.0537999822305896e-4" iyy="6.722789250342143e-4" iyz="1.1455994649114264e-6" izz="5.536369701076155e-4"/>
    </inertial>
    <visual>
      <origin xyz="0 0 0" rpy="0 -0 0"/>
      <geometry>
        <mesh filename="package://iCub/meshes/simmechanics/sim_sea_2-5_r_forearm.stl" scale="0.001 0.001 0.001"/>
      </geometry>
      <material name="">
        <color rgba="0.635 0.137 0.114 1"/>
      </material>
    </visual>
    <collision>
      <origin xyz="0 0 0" rpy="0 -0 0"/>
      <geometry>
        <mesh filename="package://iCub/meshes/simmechanics/sim_sea_2-5_r_forearm.stl" scale="0.001 0.001 0.001"/>
      </geometry>
      <material name="">
        <color rgba="0.635 0.137 0.114 1"/>
      </material>
    </collision>
  </link>
  <joint name="r_wrist_pitch" type="revolute">
    <origin xyz="-0.3997580624679938 7.037206368566052e-6 0.10711485000612944" rpy="-2.516223973457564e-16 6.106226635438362e-16 -1.3688612546682636e-15"/>
    <axis xyz="0.2588190451025211 -1.8871654943821214e-15 0.9659258262890682"/>
    <parent link="r_forearm"/>
    <child link="r_wrist_1"/>
    <limit lower="-1.3962634015954636" upper="0.4363323129985824" effort="1e+9" velocity="1e+9"/>
    <dynamics damping="2" friction="0"/>
  </joint>
  <link name="r_wrist_1">
    <inertial>
      <mass value="0.036261456008169296"/>
      <origin xyz="3.518903149810626e-4 -0.0011762435965868752 0.0017348282083149839" rpy="0 -0 0"/>
      <inertia ixx="0.01" ixy="0" ixz="0" iyy="0.009999999999999998" iyz="1.3234889800848443e-23" izz="0.01"/>
    </inertial>
    <visual>
      <origin xyz="0.3997580624679941 -7.037206368560876e-6 -0.10711485000612947" rpy="0 -0 0"/>
      <geometry>
        <mesh filename="package://iCub/meshes/simmechanics/sim_sea_2-5_r_wrist_pitch.stl" scale="0.001 0.001 0.001"/>
      </geometry>
      <material name="">
        <color rgba="0.9 0.9 0.9 1"/>
      </material>
    </visual>
    <collision>
      <origin xyz="0.3997580624679941 -7.037206368560876e-6 -0.10711485000612947" rpy="0 -0 0"/>
      <geometry>
        <mesh filename="package://iCub/meshes/simmechanics/sim_sea_2-5_r_wrist_pitch.stl" scale="0.001 0.001 0.001"/>
      </geometry>
      <material name="">
        <color rgba="0.9 0.9 0.9 1"/>
      </material>
    </collision>
  </link>
  <joint name="r_wrist_yaw" type="revolute">
    <origin xyz="2.220446049250313e-16 -7.0372063686575554e-6 -2.0816681711721685e-16" rpy="-7.23000620498842e-17 -2.2204460492503067e-16 8.330008923471497e-17"/>
    <axis xyz="-8.330008923471449e-17 -1 -1.4933855335700813e-15"/>
    <parent link="r_wrist_1"/>
    <child link="r_hand"/>
    <limit lower="-0.3490658503988659" upper="0.4363323129985824" effort="1e+9" velocity="1e+9"/>
    <dynamics damping="2" friction="0"/>
  </joint>
  <link name="r_hand">
    <inertial>
      <mass value="0.2482893078620343"/>
      <origin xyz="-0.0646681267166076 -0.013892758063213459 0.022681279288753728" rpy="0 -0 0"/>
      <inertia ixx="0.01" ixy="0" ixz="0" iyy="0.010000000000000002" iyz="0" izz="0.010000000000000002"/>
    </inertial>
    <visual>
      <origin xyz="0.39975806246799406 1.2663481374630692e-16 -0.10711485000612934" rpy="0 -0 0"/>
      <geometry>
        <mesh filename="package://iCub/meshes/simmechanics/sim_sea_2-5_r_hand.stl" scale="0.001 0.001 0.001"/>
      </geometry>
      <material name="">
        <color rgba="0.9 0.9 0.9 1"/>
      </material>
    </visual>
    <collision>
      <origin xyz="0.39975806246799406 1.2663481374630692e-16 -0.10711485000612934" rpy="0 -0 0"/>
      <geometry>
        <mesh filename="package://iCub/meshes/simmechanics/sim_sea_2-5_r_hand.stl" scale="0.001 0.001 0.001"/>
      </geometry>
      <material name="">
        <color rgba="0.9 0.9 0.9 1"/>
      </material>
    </collision>
  </link>
  <joint name="l_shoulder_roll" type="revolute">
    <origin xyz="0.10963258125912732 -3.191891195797325e-16 0.02937596171125037" rpy="-0.27059741512222474 0.25268025514207865 1.501556832463"/>
    <axis xyz="-0.25881904510252113 1.3322676295501878e-15 0.9659258262890681"/>
    <parent link="l_shoulder_1"/>
    <child link="l_shoulder_2"/>
    <limit lower="0" upper="2.8064894372068823" effort="1e+9" velocity="1e+9"/>
    <dynamics damping="2" friction="0"/>
  </joint>
  <link name="l_shoulder_2">
    <inertial>
      <mass value="0.238162"/>
      <origin xyz="0.0184282320310169 2.6839865268097864e-4 -0.008043292487082743" rpy="0 -0 0"/>
      <inertia ixx="0.01" ixy="0" ixz="0" iyy="0.009999999999999998" iyz="-1.0587911840678754e-22" izz="0.01"/>
    </inertial>
    <visual>
      <origin xyz="-0.10963258128380474 -1.2650817893380464e-14 -0.029375961619134947" rpy="0 -0 0"/>
      <geometry>
        <mesh filename="package://iCub/meshes/simmechanics/sim_sea_2-5_l_shoulder_2.stl" scale="0.001 0.001 0.001"/>
      </geometry>
      <material name="">
        <color rgba="0.9 0.9 0.9 1"/>
      </material>
    </visual>
    <collision>
      <origin xyz="-0.10963258128380474 -1.2650817893380464e-14 -0.029375961619134947" rpy="0 -0 0"/>
      <geometry>
        <mesh filename="package://iCub/meshes/simmechanics/sim_sea_2-5_l_shoulder_2.stl" scale="0.001 0.001 0.001"/>
      </geometry>
      <material name="">
        <color rgba="0.9 0.9 0.9 1"/>
      </material>
    </collision>
  </link>
  <joint name="l_shoulder_yaw" type="revolute">
    <origin xyz="0.0770808809378713 -1.2652205672036843e-14 0.020653759799182027" rpy="0.768067518578544 -1.2026962440622166 2.3388638453734356"/>
    <axis xyz="-4.440892098500626e-16 1.6930901125533637e-15 1.0000000000000004"/>
    <parent link="l_shoulder_2"/>
    <child link="l_shoulder_3"/>
    <limit lower="-0.6457718232379019" upper="1.3962634015954636" effort="1e+9" velocity="1e+9"/>
    <dynamics damping="2" friction="0"/>
  </joint>
  <link name="l_shoulder_3">
    <inertial>
      <mass value="0.3591301260076795"/>
      <origin xyz="0.007259038054997754 1.588864074256544e-5 -0.02705722711064906" rpy="0 -0 0"/>
      <inertia ixx="0.01" ixy="-6.617444900424222e-24" ixz="-1.3552527156068805e-20" iyy="0.009999999999999998" iyz="0" izz="0.01"/>
    </inertial>
    <visual>
      <origin xyz="0.014999999999999934 -4.0758438291099496e-16 6.938893903907228e-18" rpy="0 -0 0"/>
      <geometry>
        <mesh filename="package://iCub/meshes/simmechanics/sim_sea_2-5_l_upper_arm.stl" scale="0.001 0.001 0.001"/>
      </geometry>
      <material name="">
        <color rgba="0.9 0.9 0.9 1"/>
      </material>
    </visual>
    <collision>
      <origin xyz="0.014999999999999934 -4.0758438291099496e-16 6.938893903907228e-18" rpy="0 -0 0"/>
      <geometry>
        <mesh filename="package://iCub/meshes/simmechanics/sim_sea_2-5_l_upper_arm.stl" scale="0.001 0.001 0.001"/>
      </geometry>
      <material name="">
        <color rgba="0.9 0.9 0.9 1"/>
      </material>
    </collision>
  </link>
  <joint name="l_arm_ft_sensor" type="fixed">
    <origin xyz="6.652664530371055e-15 -1.3235183782267491e-15 -0.19330000000000097" rpy="8.581490631209845e-16 -1.3089969389957181 -3.1415926535897905"/>
    <parent link="l_shoulder_3"/>
    <child link="l_upper_arm"/>
  </joint>
  <link name="l_upper_arm">
    <inertial>
      <mass value="0.7467989371011987"/>
      <origin xyz="0.21278310836101627 1.887491023807501e-4 0.06620729037116421" rpy="0 -0 0"/>
      <inertia ixx="5.097311993913687e-4" ixy="-6.907672105037776e-7" ixz="1.200484498747878e-5" iyy="6.708603541155864e-4" iyz="3.118328913342488e-6" izz="6.012019959427337e-4"/>
    </inertial>
    <visual>
      <origin xyz="0 0 0" rpy="0 -0 0"/>
      <geometry>
        <mesh filename="package://iCub/meshes/simmechanics/sim_sea_2-5_l_elbow.stl" scale="0.001 0.001 0.001"/>
      </geometry>
      <material name="">
        <color rgba="0.635 0.137 0.114 1"/>
      </material>
    </visual>
    <collision>
      <origin xyz="0 0 0" rpy="0 -0 0"/>
      <geometry>
        <mesh filename="package://iCub/meshes/simmechanics/sim_sea_2-5_l_elbow.stl" scale="0.001 0.001 0.001"/>
      </geometry>
      <material name="">
        <color rgba="0.635 0.137 0.114 1"/>
      </material>
    </collision>
  </link>
  <joint name="l_elbow" type="revolute">
    <origin xyz="0.25939045753681134 7.403565593809074e-18 0.08503260632747643" rpy="-1.1047873612083847e-15 -1.6653345369377245e-16 -6.611825389100445e-17"/>
    <axis xyz="6.611825389100445e-17 -1 1.30939135765701e-16"/>
    <parent link="l_upper_arm"/>
    <child link="l_elbow_1"/>
    <limit lower="0.2617993877991494" upper="1.8500490071139892" effort="1e+9" velocity="1e+9"/>
    <dynamics damping="2" friction="0"/>
  </joint>
  <link name="l_elbow_1">
    <inertial>
      <mass value="0.26790294861834985"/>
      <origin xyz="0.006739171504040464 -0.0036978150789871793 -0.004657696244524653" rpy="0 -0 0"/>
      <inertia ixx="0.01" ixy="0" ixz="1.6940658945086007e-21" iyy="0.009999999999999998" iyz="-8.470329472543003e-22" izz="0.010000000000000002"/>
    </inertial>
    <visual>
      <origin xyz="-0.25939045753681134 -2.7755575615628914e-17 -0.08503260632747642" rpy="0 -0 0"/>
      <geometry>
        <mesh filename="package://iCub/meshes/simmechanics/sim_sea_2-5_l_elbow_prosup.stl" scale="0.001 0.001 0.001"/>
      </geometry>
      <material name="">
        <color rgba="0.635 0.137 0.114 1"/>
      </material>
    </visual>
    <collision>
      <origin xyz="-0.25939045753681134 -2.7755575615628914e-17 -0.08503260632747642" rpy="0 -0 0"/>
      <geometry>
        <mesh filename="package://iCub/meshes/simmechanics/sim_sea_2-5_l_elbow_prosup.stl" scale="0.001 0.001 0.001"/>
      </geometry>
      <material name="">
        <color rgba="0.635 0.137 0.114 1"/>
      </material>
    </collision>
  </link>
  <joint name="l_wrist_prosup" type="revolute">
    <origin xyz="-0.2584245317105225 -5.551115123125783e-17 -0.08477378728237384" rpy="8.41371140948411e-14 1.110223024625069e-16 2.2625570109227672e-14"/>
    <axis xyz="0.9659258262890691 9.964470952188414e-17 0.25881904510252063"/>
    <parent link="l_elbow_1"/>
    <child link="l_forearm"/>
    <limit lower="-1.0471975511965976" upper="1.0471975511965976" effort="1e+9" velocity="1e+9"/>
    <dynamics damping="2" friction="0"/>
  </joint>
  <link name="l_forearm">
    <inertial>
      <mass value="0.6361846788539055"/>
      <origin xyz="0.337338142176485 -6.861270497095918e-4 0.08487429798560102" rpy="0 -0 0"/>
      <inertia ixx="3.714471573107716e-4" ixy="4.345623668299892e-6" ixz="-1.0587144697598791e-4" iyy="6.742294192436105e-4" iyz="4.05222178260266e-6" izz="5.571152723416323e-4"/>
    </inertial>
    <visual>
      <origin xyz="0 0 0" rpy="0 -0 0"/>
      <geometry>
        <mesh filename="package://iCub/meshes/simmechanics/sim_sea_2-5_l_forearm.stl" scale="0.001 0.001 0.001"/>
      </geometry>
      <material name="">
        <color rgba="0.635 0.137 0.114 1"/>
      </material>
    </visual>
    <collision>
      <origin xyz="0 0 0" rpy="0 -0 0"/>
      <geometry>
        <mesh filename="package://iCub/meshes/simmechanics/sim_sea_2-5_l_forearm.stl" scale="0.001 0.001 0.001"/>
      </geometry>
      <material name="">
        <color rgba="0.635 0.137 0.114 1"/>
      </material>
    </collision>
  </link>
  <joint name="l_wrist_pitch" type="revolute">
    <origin xyz="0.39975806246799395 7.037206368527276e-6 0.1071148500061294" rpy="1.5563723391112895e-15 -5.3845816694305e-15 -6.007348522226134e-15"/>
    <axis xyz="0.25881904510252124 -2.1305893218932203e-15 -0.9659258262890691"/>
    <parent link="l_forearm"/>
    <child link="l_wrist_1"/>
    <limit lower="-1.3962634015954636" upper="0.4363323129985824" effort="1e+9" velocity="1e+9"/>
    <dynamics damping="2" friction="0"/>
  </joint>
  <link name="l_wrist_1">
    <inertial>
      <mass value="0.03621521570719094"/>
      <origin xyz="-4.2461447924385665e-4 -0.0011777454985608087 0.0020067798827987787" rpy="0 -0 0"/>
      <inertia ixx="0.01" ixy="3.308722450212111e-24" ixz="0" iyy="0.009999999999999998" iyz="-1.3234889800848443e-23" izz="0.010000000000000002"/>
    </inertial>
    <visual>
      <origin xyz="-0.39975806246799395 -7.037206368528081e-6 -0.1071148500061294" rpy="0 -0 0"/>
      <geometry>
        <mesh filename="package://iCub/meshes/simmechanics/sim_sea_2-5_l_wrist_pitch.stl" scale="0.001 0.001 0.001"/>
      </geometry>
      <material name="">
        <color rgba="0.9 0.9 0.9 1"/>
      </material>
    </visual>
    <collision>
      <origin xyz="-0.39975806246799395 -7.037206368528081e-6 -0.1071148500061294" rpy="0 -0 0"/>
      <geometry>
        <mesh filename="package://iCub/meshes/simmechanics/sim_sea_2-5_l_wrist_pitch.stl" scale="0.001 0.001 0.001"/>
      </geometry>
      <material name="">
        <color rgba="0.9 0.9 0.9 1"/>
      </material>
    </collision>
  </link>
  <joint name="l_wrist_yaw" type="revolute">
    <origin xyz="-7.764571353019445e-5 -7.0372063681391865e-6 2.897777478838848e-4" rpy="-5.724304941856585e-16 8.881784197016471e-16 -1.7907602501370455e-16"/>
    <axis xyz="-1.7907602501370155e-16 1 -2.269740448854691e-15"/>
    <parent link="l_wrist_1"/>
    <child link="l_hand"/>
    <limit lower="-0.3490658503988659" upper="0.4363323129985824" effort="1e+9" velocity="1e+9"/>
    <dynamics damping="2" friction="0"/>
  </joint>
  <link name="l_hand">
    <inertial>
      <mass value="0.24780592927519737"/>
      <origin xyz="0.06476803428416295 -0.013862564676148213 0.022660200637793573" rpy="0 -0 0"/>
      <inertia ixx="0.009999999999999998" ixy="-2.710505431213761e-20" ixz="0" iyy="0.009999999999999995" iyz="1.3552527156068805e-20" izz="0.01"/>
    </inertial>
    <visual>
      <origin xyz="-0.39968041675446386 -3.157196726277789e-16 -0.10740462775401342" rpy="0 -0 0"/>
      <geometry>
        <mesh filename="package://iCub/meshes/simmechanics/sim_sea_2-5_l_hand.stl" scale="0.001 0.001 0.001"/>
      </geometry>
      <material name="">
        <color rgba="0.9 0.9 0.9 1"/>
      </material>
    </visual>
    <collision>
      <origin xyz="-0.39968041675446386 -3.157196726277789e-16 -0.10740462775401342" rpy="0 -0 0"/>
      <geometry>
        <mesh filename="package://iCub/meshes/simmechanics/sim_sea_2-5_l_hand.stl" scale="0.001 0.001 0.001"/>
      </geometry>
      <material name="">
        <color rgba="0.9 0.9 0.9 1"/>
      </material>
    </collision>
  </link>
  <joint name="neck_pitch" type="revolute">
    <origin xyz="0.008499999999999962 0.04899999999999999 -2.2857632775440816e-17" rpy="-2.5632497141533034e-16 4.174856409501605e-15 -7.262593998861437e-14"/>
    <axis xyz="-4.0083232784869946e-15 -7.701928680333139e-16 1"/>
    <parent link="neck_1"/>
    <child link="neck_2"/>
    <limit lower="-0.6981317007977318" upper="0.3839724354387525" effort="1e+9" velocity="1e+9"/>
    <dynamics damping="2" friction="0"/>
  </joint>
  <link name="neck_2">
    <inertial>
      <mass value="0.28642676508636794"/>
      <origin xyz="-0.010977928205999249 0.009386283323872039 -9.382346569729841e-4" rpy="0 -0 0"/>
      <inertia ixx="0.01" ixy="3.3881317890172014e-21" ixz="4.235164736271502e-22" iyy="0.01" iyz="0" izz="0.01"/>
    </inertial>
    <visual>
      <origin xyz="0 0 0" rpy="0 -0 0"/>
      <geometry>
        <mesh filename="package://iCub/meshes/simmechanics/sim_ibbbbeba_neck_2.stl" scale="0.001 0.001 0.001"/>
      </geometry>
      <material name="">
        <color rgba="0.9 0.9 0.9 1"/>
      </material>
    </visual>
    <collision>
      <origin xyz="0 0 0" rpy="0 -0 0"/>
      <geometry>
        <mesh filename="package://iCub/meshes/simmechanics/sim_ibbbbeba_neck_2.stl" scale="0.001 0.001 0.001"/>
      </geometry>
      <material name="">
        <color rgba="0.9 0.9 0.9 1"/>
      </material>
    </collision>
  </link>
  <joint name="neck_roll" type="revolute">
    <origin xyz="-7.91033905045424e-16 0.010999999999995735 -9.401340570774642e-16" rpy="1.5707963267948923 1.8892467000306696e-16 1.5707963267949692"/>
    <axis xyz="-7.19399156860378e-14 -4.29733219508142e-15 1"/>
    <parent link="neck_2"/>
    <child link="neck_3"/>
    <limit lower="-0.3490658503988659" upper="0.3490658503988659" effort="1e+9" velocity="1e+9"/>
    <dynamics damping="2" friction="0"/>
  </joint>
  <link name="neck_3">
    <inertial>
      <mass value="0.25184532314534547"/>
      <origin xyz="0.035983837396983236 1.7734356458080158e-7 -0.01213205049500291" rpy="0 -0 0"/>
      <inertia ixx="0.01" ixy="0" ixz="1.3552527156068805e-20" iyy="0.01" iyz="0" izz="0.01"/>
    </inertial>
    <visual>
      <origin xyz="0 0 0" rpy="0 -0 0"/>
      <geometry>
        <mesh filename="package://iCub/meshes/simmechanics/sim_ibbbbeba_neck_3.stl" scale="0.001 0.001 0.001"/>
      </geometry>
      <material name="">
        <color rgba="0.9 0.9 0.9 1"/>
      </material>
    </visual>
    <collision>
      <origin xyz="0 0 0" rpy="0 -0 0"/>
      <geometry>
        <mesh filename="package://iCub/meshes/simmechanics/sim_ibbbbeba_neck_3.stl" scale="0.001 0.001 0.001"/>
      </geometry>
      <material name="">
        <color rgba="0.9 0.9 0.9 1"/>
      </material>
    </collision>
  </link>
  <joint name="neck_yaw" type="revolute">
    <origin xyz="1.942890293094024e-16 1.8633770479962874e-18 3.469446951953614e-17" rpy="-1.5707963267948963 5.594829555151374e-15 -1.5707963267948963"/>
    <axis xyz="2.21348285152624e-15 -2.404941729121122e-15 0.9999999999999993"/>
    <parent link="neck_3"/>
    <child link="head"/>
    <limit lower="-0.8726646259971648" upper="0.8726646259971648" effort="1e+9" velocity="1e+9"/>
    <dynamics damping="2" friction="0"/>
  </joint>
  <link name="head">
    <inertial>
      <mass value="1.477"/>
      <origin xyz="-0.001479098013392373 0.0018091064734635602 0.09946756270225941" rpy="0 -0 0"/>
      <inertia ixx="0.01" ixy="0" ixz="2.710505431213761e-20" iyy="0.01" iyz="5.421010862427522e-20" izz="0.01"/>
    </inertial>
    <visual>
      <origin xyz="0 0 0" rpy="0 -0 0"/>
      <geometry>
        <mesh filename="package://iCub/meshes/simmechanics/sim_ibbbbeba_head.stl" scale="0.001 0.001 0.001"/>
      </geometry>
      <material name="">
        <color rgba="1 1 1 1"/>
      </material>
    </visual>
    <collision>
      <origin xyz="0 0 0" rpy="0 -0 0"/>
      <geometry>
        <mesh filename="package://iCub/meshes/simmechanics/sim_ibbbbeba_head.stl" scale="0.001 0.001 0.001"/>
      </geometry>
      <material name="">
        <color rgba="1 1 1 1"/>
      </material>
    </collision>
  </link>
  <joint name="eyes_tilt" type="revolute">
    <origin xyz="-1.0796948793380746e-15 -0.05099999999999989 0.08050000000000418" rpy="-1.570796326794895 2.910964228702764e-15 1.570796326794893"/>
    <axis xyz="-1.2199853548663342e-15 1.109200193312732e-15 1"/>
    <parent link="head"/>
    <child link="eyes_tilt_frame"/>
    <limit lower="-0.5235987755982988" upper="0.5235987755982988" effort="1e+9" velocity="1e+9"/>
    <dynamics damping="2" friction="0"/>
  </joint>
  <link name="eyes_tilt_frame">
    <inertial>
      <mass value="0.12520983293325325"/>
      <origin xyz="0.02549778920708766 -0.003395856347935086 2.0365854709798623e-5" rpy="0 -0 0"/>
      <inertia ixx="0.001" ixy="-1.6940658945086007e-21" ixz="0" iyy="0.001" iyz="-1.6543612251060553e-24" izz="0.001"/>
    </inertial>
    <visual>
      <origin xyz="0 0 0" rpy="0 -0 0"/>
      <geometry>
        <mesh filename="package://iCub/meshes/simmechanics/sim_ibbbbeba_eyes_1.stl" scale="0.001 0.001 0.001"/>
      </geometry>
      <material name="">
        <color rgba="0.5 0.5 0.5 1"/>
      </material>
    </visual>
    <collision>
      <origin xyz="0 0 0" rpy="0 -0 0"/>
      <geometry>
        <mesh filename="package://iCub/meshes/simmechanics/sim_ibbbbeba_eyes_1.stl" scale="0.001 0.001 0.001"/>
      </geometry>
      <material name="">
        <color rgba="0.5 0.5 0.5 1"/>
      </material>
    </collision>
  </link>
  <joint name="l_eye_pan_joint" type="revolute">
    <origin xyz="-1.0408340855860843e-17 -2.220446049250313e-16 -0.03399999999999989" rpy="-1.5707963267948977 -1.803032901775562e-15 -2.244830413927636e-15"/>
    <axis xyz="-9.125627843774023e-16 9.843001030414603e-16 1"/>
    <parent link="eyes_tilt_frame"/>
    <child link="l_eye"/>
    <limit lower="-0.7853981633974483" upper="0.7853981633974483" effort="1e+9" velocity="1e+9"/>
    <dynamics damping="2" friction="0"/>
  </joint>
  <link name="l_eye">
    <inertial>
      <mass value="0.03276557419551617"/>
      <origin xyz="-0.002473105295527564 -4.298550124275796e-5 -8.961538981168415e-5" rpy="0 -0 0"/>
      <inertia ixx="0.01" ixy="0" ixz="-8.271806125530277e-25" iyy="0.01" iyz="-2.5849394142282115e-26" izz="0.01"/>
    </inertial>
    <visual>
      <origin xyz="0 0 0" rpy="0 -0 0"/>
      <geometry>
        <mesh filename="package://iCub/meshes/simmechanics/sim_ibbbbeba_l_eye_2.stl" scale="0.001 0.001 0.001"/>
      </geometry>
      <material name="">
        <color rgba="0.5 0.5 0.5 1"/>
      </material>
    </visual>
    <collision>
      <origin xyz="0 0 0" rpy="0 -0 0"/>
      <geometry>
        <mesh filename="package://iCub/meshes/simmechanics/sim_ibbbbeba_l_eye_2.stl" scale="0.001 0.001 0.001"/>
      </geometry>
      <material name="">
        <color rgba="0.5 0.5 0.5 1"/>
      </material>
    </collision>
  </link>
  <joint name="r_eye_pan_joint" type="revolute">
    <origin xyz="6.245004513516506e-17 1.6653345369377348e-16 0.033999999999999996" rpy="-1.5707963267948981 2.2980655504960147e-12 -7.27366154737338e-16"/>
    <axis xyz="6.049014748174697e-16 5.053215498074298e-16 1"/>
    <parent link="eyes_tilt_frame"/>
    <child link="r_eye"/>
    <limit lower="-0.7853981633974483" upper="0.7853981633974483" effort="1e+9" velocity="1e+9"/>
    <dynamics damping="2" friction="0"/>
  </joint>
  <link name="r_eye">
    <inertial>
      <mass value="0.03297185160196596"/>
      <origin xyz="-0.0024576331360505535 -3.393730936411543e-5 9.868373925150942e-6" rpy="0 -0 0"/>
      <inertia ixx="0.01" ixy="0" ixz="0" iyy="0.01" iyz="0" izz="0.01"/>
    </inertial>
    <visual>
      <origin xyz="0 0 0" rpy="0 -0 0"/>
      <geometry>
        <mesh filename="package://iCub/meshes/simmechanics/sim_ibbbbeba_r_eye_2.stl" scale="0.001 0.001 0.001"/>
      </geometry>
      <material name="">
        <color rgba="0.5 0.5 0.5 1"/>
      </material>
    </visual>
    <collision>
      <origin xyz="0 0 0" rpy="0 -0 0"/>
      <geometry>
        <mesh filename="package://iCub/meshes/simmechanics/sim_ibbbbeba_r_eye_2.stl" scale="0.001 0.001 0.001"/>
      </geometry>
      <material name="">
        <color rgba="0.5 0.5 0.5 1"/>
      </material>
    </collision>
  </link>
  <link name="r_upper_leg_ft_gyro_3b11"/>
  <joint name="r_upper_leg_ft_gyro_3b11_fixed_joint" type="fixed">
    <origin xyz="0.006563840443848293 -0.008586108145786905 -0.059281999999999585" rpy="-1.6730585461919804e-16 -4.3874128926653254e-15 1.5707963267949006"/>
    <parent link="r_hip_2"/>
    <child link="r_upper_leg_ft_gyro_3b11"/>
  </joint>
  <link name="r_leg_ft"/>
  <joint name="r_leg_ft_fixed_joint" type="fixed">
    <origin xyz="0 0 0" rpy="0 -0 0"/>
    <parent link="r_hip_2"/>
    <child link="r_leg_ft"/>
  </joint>
  <link name="r_upper_leg_ems_gyro_eb8"/>
  <joint name="r_upper_leg_ems_gyro_eb8_fixed_joint" type="fixed">
    <origin xyz="-0.013079000000000167 0.04040715799999992 -0.03565499999999988" rpy="0 1.5707963267948966 -1.5707963267949003"/>
    <parent link="r_upper_leg"/>
    <child link="r_upper_leg_ems_gyro_eb8"/>
  </joint>
  <link name="r_upper_leg_ems_gyro_eb11"/>
  <joint name="r_upper_leg_ems_gyro_eb11_fixed_joint" type="fixed">
    <origin xyz="-0.013080999999999843 -0.040407158000000304 -0.08797900000000014" rpy="0 1.5707963267948966 -1.5707963267949006"/>
    <parent link="r_upper_leg"/>
    <child link="r_upper_leg_ems_gyro_eb11"/>
  </joint>
  <link name="r_upper_leg_back_contact"/>
  <joint name="r_upper_leg_back_contact_fixed_joint" type="fixed">
    <origin xyz="-0.05119983197980619 3.7470027081099033e-16 0.014599999999999919" rpy="0 1.5707963267948966 -1.6034563930019158e-15"/>
    <parent link="r_upper_leg"/>
    <child link="r_upper_leg_back_contact"/>
  </joint>
  <link name="r_upper_leg_dh_frame"/>
  <joint name="r_upper_leg_dh_frame_fixed_joint" type="fixed">
    <origin xyz="-1.3877787807814457e-17 -5.412337245047638e-16 -0.14582500000000004" rpy="1.5707963267949003 -2.53652879324208e-17 -4.441948989685715e-15"/>
    <parent link="r_upper_leg"/>
    <child link="r_upper_leg_dh_frame"/>
  </joint>
  <link name="r_lower_leg_ems_gyro_eb9"/>
  <joint name="r_lower_leg_ems_gyro_eb9_fixed_joint" type="fixed">
    <origin xyz="0.04450332545796869 0.014343499999999537 -0.08830062873589922" rpy="-3.14159265358978 -1.352630170295607 1.932194921470369e-14"/>
    <parent link="r_lower_leg"/>
    <child link="r_lower_leg_ems_gyro_eb9"/>
  </joint>
  <link name="r_lower_leg_skin_0"/>
  <joint name="r_lower_leg_skin_0_fixed_joint" type="fixed">
    <origin xyz="0.054411753855744246 -0.031214398293874526 -0.002633978992008512" rpy="4.227351619526306e-14 -1.4153066963808394 2.486486577919829"/>
    <parent link="r_lower_leg"/>
    <child link="r_lower_leg_skin_0"/>
  </joint>
  <link name="r_lower_leg_skin_10"/>
  <joint name="r_lower_leg_skin_10_fixed_joint" type="fixed">
    <origin xyz="0.06446074452120243 3.4243171654581295e-4 -0.02120497274812083" rpy="-3.1415926535897563 -1.470958014295746 4.300264432974676e-4"/>
    <parent link="r_lower_leg"/>
    <child link="r_lower_leg_skin_10"/>
  </joint>
  <link name="r_lower_leg_skin_11"/>
  <joint name="r_lower_leg_skin_11_fixed_joint" type="fixed">
    <origin xyz="0.060710841889547326 -0.01609155689528849 -0.03088417415744754" rpy="3.1415926535897905 -1.3281181098246986 -0.27213740201315945"/>
    <parent link="r_lower_leg"/>
    <child link="r_lower_leg_skin_11"/>
  </joint>
  <link name="r_lower_leg_skin_14"/>
  <joint name="r_lower_leg_skin_14_fixed_joint" type="fixed">
    <origin xyz="0.05504774784424241 -0.031176119213538675 -0.02189948381991108" rpy="3.1415926535897314 -1.4650274250266908 -0.6540325751754364"/>
    <parent link="r_lower_leg"/>
    <child link="r_lower_leg_skin_14"/>
  </joint>
  <link name="r_lower_leg_skin_15"/>
  <joint name="r_lower_leg_skin_15_fixed_joint" type="fixed">
    <origin xyz="0.05917079817454313 -0.016178794148811154 0.0072432356524151364" rpy="2.0963846435502025e-15 -1.2520362546147255 2.86798900186175"/>
    <parent link="r_lower_leg"/>
    <child link="r_lower_leg_skin_15"/>
  </joint>
  <link name="r_lower_leg_skin_16"/>
  <joint name="r_lower_leg_skin_16_fixed_joint" type="fixed">
    <origin xyz="0.027287581917065696 -0.05028707361353278 -0.004548106026604437" rpy="3.3913242449471364e-13 -1.532608297644396 1.962815808124539"/>
    <parent link="r_lower_leg"/>
    <child link="r_lower_leg_skin_16"/>
  </joint>
  <link name="r_lower_leg_skin_17"/>
  <joint name="r_lower_leg_skin_17_fixed_joint" type="fixed">
    <origin xyz="0.02787500710071206 -0.050311730750048994 -0.023881963869819445" rpy="3.1415926535879763 -1.5636629163066247 -1.1801970002853424"/>
    <parent link="r_lower_leg"/>
    <child link="r_lower_leg_skin_17"/>
  </joint>
  <link name="r_lower_leg_skin_19"/>
  <joint name="r_lower_leg_skin_19_fixed_joint" type="fixed">
    <origin xyz="0.035753431377188664 0.0410627621661613 0.0060650049798329775" rpy="-1.1050836071126087e-13 -1.4349871065801687 -2.158637183268285"/>
    <parent link="r_lower_leg"/>
    <child link="r_lower_leg_skin_19"/>
  </joint>
  <link name="r_lower_leg_skin_20"/>
  <joint name="r_lower_leg_skin_20_fixed_joint" type="fixed">
    <origin xyz="0.02344189623208921 0.047990810992991476 -0.004951793396526516" rpy="-2.256402723095752e-13 -1.5001545548252873 -1.8675543569582005"/>
    <parent link="r_lower_leg"/>
    <child link="r_lower_leg_skin_20"/>
  </joint>
  <link name="r_lower_leg_skin_21"/>
  <joint name="r_lower_leg_skin_21_fixed_joint" type="fixed">
    <origin xyz="0.024270453829225196 0.04853780150953435 -0.02427614693162139" rpy="-1.0377216327779664e-12 -1.5554550779943823 -1.8740970068323415"/>
    <parent link="r_lower_leg"/>
    <child link="r_lower_leg_skin_21"/>
  </joint>
  <link name="r_lower_leg_skin_28"/>
  <joint name="r_lower_leg_skin_28_fixed_joint" type="fixed">
    <origin xyz="0.040872182292477174 -0.042439534026129586 -0.03275571297991481" rpy="3.141592653589581 -1.5225246845074027 -0.9296927645761711"/>
    <parent link="r_lower_leg"/>
    <child link="r_lower_leg_skin_28"/>
  </joint>
  <link name="r_lower_leg_skin_29"/>
  <joint name="r_lower_leg_skin_29_fixed_joint" type="fixed">
    <origin xyz="0.03846639879042816 -0.04351568325790889 -0.05241958044106659" rpy="3.1415926535895173 -1.5342982023710223 -0.9154492537863096"/>
    <parent link="r_lower_leg"/>
    <child link="r_lower_leg_skin_29"/>
  </joint>
  <link name="r_lower_leg_skin_3"/>
  <joint name="r_lower_leg_skin_3_fixed_joint" type="fixed">
    <origin xyz="0.051578811167431765 0.030420474423223515 -0.0028429706733877347" rpy="-9.94231474004689e-14 -1.4295106223190843 -2.303914384467214"/>
    <parent link="r_lower_leg"/>
    <child link="r_lower_leg_skin_3"/>
  </joint>
  <link name="r_lower_leg_skin_31"/>
  <joint name="r_lower_leg_skin_31_fixed_joint" type="fixed">
    <origin xyz="0.03914641414466705 -0.04227098784839527 0.006327741848373425" rpy="6.788759186344519e-14 -1.4186493638020958 2.208530208560631"/>
    <parent link="r_lower_leg"/>
    <child link="r_lower_leg_skin_31"/>
  </joint>
  <link name="r_lower_leg_skin_32"/>
  <joint name="r_lower_leg_skin_32_fixed_joint" type="fixed">
    <origin xyz="0.04598304367791724 0.03258468855410896 -0.08073227371012986" rpy="-3.1415926535895395 -1.5223832124820431 0.6459428032719369"/>
    <parent link="r_lower_leg"/>
    <child link="r_lower_leg_skin_32"/>
  </joint>
  <link name="r_lower_leg_skin_35"/>
  <joint name="r_lower_leg_skin_35_fixed_joint" type="fixed">
    <origin xyz="0.04774869513928511 -0.031232190585332456 -0.08011206477800592" rpy="3.141592653589702 -1.5175845160659889 -0.5415265849493914"/>
    <parent link="r_lower_leg"/>
    <child link="r_lower_leg_skin_35"/>
  </joint>
  <link name="r_lower_leg_skin_36"/>
  <joint name="r_lower_leg_skin_36_fixed_joint" type="fixed">
    <origin xyz="0.05322412064162782 -0.01560177961789845 -0.08836185835007798" rpy="-3.141592653589786 -1.515872917315675 -0.20740524625786402"/>
    <parent link="r_lower_leg"/>
    <child link="r_lower_leg_skin_36"/>
  </joint>
  <link name="r_lower_leg_skin_37"/>
  <joint name="r_lower_leg_skin_37_fixed_joint" type="fixed">
    <origin xyz="0.05525722622823527 9.643741750392093e-4 -0.07831764170942657" rpy="-3.1415926535897136 -1.5231833706578497 0.007535335412465635"/>
    <parent link="r_lower_leg"/>
    <child link="r_lower_leg_skin_37"/>
  </joint>
  <link name="r_lower_leg_skin_38"/>
  <joint name="r_lower_leg_skin_38_fixed_joint" type="fixed">
    <origin xyz="0.04880470556990771 -0.03126282893611454 -0.06075648767681918" rpy="3.1415926535897047 -1.5157299326323082 -0.5421599283433068"/>
    <parent link="r_lower_leg"/>
    <child link="r_lower_leg_skin_38"/>
  </joint>
  <link name="r_lower_leg_skin_4"/>
  <joint name="r_lower_leg_skin_4_fixed_joint" type="fixed">
    <origin xyz="0.05831034823121065 0.016783565658186728 0.0072720708559206315" rpy="-2.9776689845798314e-14 -1.2563674718371562 -2.758924098519928"/>
    <parent link="r_lower_leg"/>
    <child link="r_lower_leg_skin_4"/>
  </joint>
  <link name="r_lower_leg_skin_41"/>
  <joint name="r_lower_leg_skin_41_fixed_joint" type="fixed">
    <origin xyz="0.05660090466859651 -0.015912920940527486 -0.0498535840672808" rpy="3.141592653589792 -1.406813507416198 -0.2482325723484928"/>
    <parent link="r_lower_leg"/>
    <child link="r_lower_leg_skin_41"/>
  </joint>
  <link name="r_lower_leg_skin_42"/>
  <joint name="r_lower_leg_skin_42_fixed_joint" type="fixed">
    <origin xyz="0.05701059579767936 7.961659254906162e-4 -0.059079428393411515" rpy="-3.141592653589765 -1.4352473498684086 0.0068765819537650085"/>
    <parent link="r_lower_leg"/>
    <child link="r_lower_leg_skin_42"/>
  </joint>
  <link name="r_lower_leg_skin_43"/>
  <joint name="r_lower_leg_skin_43_fixed_joint" type="fixed">
    <origin xyz="0.04712545753154666 0.032365292399646854 -0.06136126513613449" rpy="-3.1415926535894205 -1.538430857417448 0.6242187256391198"/>
    <parent link="r_lower_leg"/>
    <child link="r_lower_leg_skin_43"/>
  </joint>
  <link name="r_lower_leg_skin_46"/>
  <joint name="r_lower_leg_skin_46_fixed_joint" type="fixed">
    <origin xyz="0.055815668945185755 0.01721638306362057 -0.050179240748217724" rpy="-3.141592653589734 -1.42759870594845 0.32561055966995667"/>
    <parent link="r_lower_leg"/>
    <child link="r_lower_leg_skin_46"/>
  </joint>
  <link name="r_lower_leg_skin_47"/>
  <joint name="r_lower_leg_skin_47_fixed_joint" type="fixed">
    <origin xyz="0.052641663532205826 0.017638854995239553 -0.08885933686323083" rpy="-3.1415926535896523 -1.5169051445385473 0.262637470928729"/>
    <parent link="r_lower_leg"/>
    <child link="r_lower_leg_skin_47"/>
  </joint>
  <link name="r_lower_leg_skin_49"/>
  <joint name="r_lower_leg_skin_49_fixed_joint" type="fixed">
    <origin xyz="0.04113140755541978 0.032438478320478165 -0.13885824574048283" rpy="-3.141592653589631 -1.4899612376691636 0.7297670355051868"/>
    <parent link="r_lower_leg"/>
    <child link="r_lower_leg_skin_49"/>
  </joint>
  <link name="r_lower_leg_skin_5"/>
  <joint name="r_lower_leg_skin_5_fixed_joint" type="fixed">
    <origin xyz="0.06365037737089688 3.094331736915451e-4 -0.0019717199745916125" rpy="-2.007249293321042e-14 -1.3865219874527763 -3.1414716990864475"/>
    <parent link="r_lower_leg"/>
    <child link="r_lower_leg_skin_5"/>
  </joint>
  <link name="r_lower_leg_skin_50"/>
  <joint name="r_lower_leg_skin_50_fixed_joint" type="fixed">
    <origin xyz="0.04301698047340354 0.03252727417274191 -0.11946812308945437" rpy="-3.141592653589615 -1.4990074061324576 0.6957817397866587"/>
    <parent link="r_lower_leg"/>
    <child link="r_lower_leg_skin_50"/>
  </joint>
  <link name="r_lower_leg_skin_51"/>
  <joint name="r_lower_leg_skin_51_fixed_joint" type="fixed">
    <origin xyz="0.05141585882812402 0.017758996924713964 -0.10820543179964626" rpy="-3.1415926535896737 -1.5062847272576145 0.2720835217976875"/>
    <parent link="r_lower_leg"/>
    <child link="r_lower_leg_skin_51"/>
  </joint>
  <link name="r_lower_leg_skin_52"/>
  <joint name="r_lower_leg_skin_52_fixed_joint" type="fixed">
    <origin xyz="0.052998357959990125 0.0012663711172616332 -0.1168944020810167" rpy="-3.1415926535897363 -1.503186748304382 0.01087270500726579"/>
    <parent link="r_lower_leg"/>
    <child link="r_lower_leg_skin_52"/>
  </joint>
  <link name="r_lower_leg_skin_53"/>
  <joint name="r_lower_leg_skin_53_fixed_joint" type="fixed">
    <origin xyz="0.05207315366235518 -0.015433938159551575 -0.1076532400159318" rpy="-3.1415926535897882 -1.5059530501866858 -0.21140923848463367"/>
    <parent link="r_lower_leg"/>
    <child link="r_lower_leg_skin_53"/>
  </joint>
  <link name="r_lower_leg_skin_54"/>
  <joint name="r_lower_leg_skin_54_fixed_joint" type="fixed">
    <origin xyz="0.045127115312348885 -0.030748924146415904 -0.11878697587089831" rpy="3.14159265358972 -1.497451585575547 -0.5751193944578216"/>
    <parent link="r_lower_leg"/>
    <child link="r_lower_leg_skin_54"/>
  </joint>
  <link name="r_lower_leg_skin_55"/>
  <joint name="r_lower_leg_skin_55_fixed_joint" type="fixed">
    <origin xyz="0.04350269670962378 -0.03048876360861963 -0.1381426776761196" rpy="3.141592653589723 -1.4899574673923621 -0.5972231928696111"/>
    <parent link="r_lower_leg"/>
    <child link="r_lower_leg_skin_55"/>
  </joint>
  <link name="r_lower_leg_skin_56"/>
  <joint name="r_lower_leg_skin_56_fixed_joint" type="fixed">
    <origin xyz="0.04926842496391576 -0.015121004731383461 -0.14621715951888486" rpy="-3.1415926535897913 -1.4912486525233204 -0.22348110274196425"/>
    <parent link="r_lower_leg"/>
    <child link="r_lower_leg_skin_56"/>
  </joint>
  <link name="r_lower_leg_skin_6"/>
  <joint name="r_lower_leg_skin_6_fixed_joint" type="fixed">
    <origin xyz="0.052085554669412976 0.03044344663033669 -0.022148518928635452" rpy="-3.1415926535896572 -1.4678512317872952 0.8374966630120498"/>
    <parent link="r_lower_leg"/>
    <child link="r_lower_leg_skin_6"/>
  </joint>
  <link name="r_lower_leg_skin_60"/>
  <joint name="r_lower_leg_skin_60_fixed_joint" type="fixed">
    <origin xyz="0.04836969938614469 0.018055981992574015 -0.14693749413444596" rpy="-3.1415926535896928 -1.4898598858367946 0.3029528260356157"/>
    <parent link="r_lower_leg"/>
    <child link="r_lower_leg_skin_60"/>
  </joint>
  <link name="r_lower_leg_skin_61"/>
  <joint name="r_lower_leg_skin_61_fixed_joint" type="fixed">
    <origin xyz="0.05161955536111576 0.0014266473313576528 -0.13616835189505733" rpy="-3.141592653589741 -1.4960209317048263 0.013203044920691732"/>
    <parent link="r_lower_leg"/>
    <child link="r_lower_leg_skin_61"/>
  </joint>
  <link name="r_lower_leg_skin_9"/>
  <joint name="r_lower_leg_skin_9_fixed_joint" type="fixed">
    <origin xyz="0.059821421576376224 0.01679725179070949 -0.030961609574165216" rpy="-3.1415926535897527 -1.3422477442300091 0.3792948984072622"/>
    <parent link="r_lower_leg"/>
    <child link="r_lower_leg_skin_9"/>
  </joint>
  <link name="r_foot_ft_gyro_3b14"/>
  <joint name="r_foot_ft_gyro_3b14_fixed_joint" type="fixed">
    <origin xyz="0.004000125064089283 -0.008600000000000205 -0.0452819999999996" rpy="3.122622502217061e-29 -4.376529947658351e-15 1.5707963267949006"/>
    <parent link="r_ankle_2"/>
    <child link="r_foot_ft_gyro_3b14"/>
  </joint>
  <link name="r_foot_ft"/>
  <joint name="r_foot_ft_fixed_joint" type="fixed">
    <origin xyz="0 0 0" rpy="0 -0 0"/>
    <parent link="r_ankle_2"/>
    <child link="r_foot_ft"/>
  </joint>
  <link name="r_sole_skin_0"/>
  <joint name="r_sole_skin_0_fixed_joint" type="fixed">
    <origin xyz="0.06047676431552919 -0.025410624993971842 0.007499999999999951" rpy="3.8654870345918885e-15 -5.551115123126516e-17 4.0597760639012846e-15"/>
    <parent link="r_foot"/>
    <child link="r_sole_skin_0"/>
  </joint>
  <link name="r_sole_skin_1"/>
  <joint name="r_sole_skin_1_fixed_joint" type="fixed">
    <origin xyz="0.07885117621035886 -0.019440416662647453 0.007500000000000173" rpy="4.059776063901291e-15 -2.775557561562965e-16 4.059776063901285e-15"/>
    <parent link="r_foot"/>
    <child link="r_sole_skin_1"/>
  </joint>
  <link name="r_sole_skin_10"/>
  <joint name="r_sole_skin_10_fixed_joint" type="fixed">
    <origin xyz="0.07252732591532675 0.031282809944559606 0.007500000000000173" rpy="3.8377314589762596e-15 -5.551115123126516e-17 4.0597760639012846e-15"/>
    <parent link="r_foot"/>
    <child link="r_sole_skin_10"/>
  </joint>
  <link name="r_sole_skin_11"/>
  <joint name="r_sole_skin_11_fixed_joint" type="fixed">
    <origin xyz="0.06851047204873481 0.012384998298382771 0.007500000000000173" rpy="4.281820668826322e-15 -2.775557561562965e-16 4.059776063901285e-15"/>
    <parent link="r_foot"/>
    <child link="r_sole_skin_11"/>
  </joint>
  <link name="r_sole_skin_12"/>
  <joint name="r_sole_skin_12_fixed_joint" type="fixed">
    <origin xyz="0.08286803007695075 -5.426050164706459e-4 0.007500000000000062" rpy="3.8932426102075174e-15 -5.551115123126516e-17 4.0597760639012846e-15"/>
    <parent link="r_foot"/>
    <child link="r_sole_skin_12"/>
  </joint>
  <link name="r_sole_skin_13"/>
  <joint name="r_sole_skin_13_fixed_joint" type="fixed">
    <origin xyz="0.10124244197178045 0.005427603314853771 0.007500000000000062" rpy="3.754464732129373e-15 -4.996003610813277e-16 4.059776063901286e-15"/>
    <parent link="r_foot"/>
    <child link="r_sole_skin_13"/>
  </joint>
  <link name="r_sole_skin_14"/>
  <joint name="r_sole_skin_14_fixed_joint" type="fixed">
    <origin xyz="0.05013606015390516 0.006414789967058382 0.007500000000000284" rpy="3.8932426102075174e-15 -5.551115123126516e-17 4.0597760639012846e-15"/>
    <parent link="r_foot"/>
    <child link="r_sole_skin_14"/>
  </joint>
  <link name="r_sole_skin_15"/>
  <joint name="r_sole_skin_15_fixed_joint" type="fixed">
    <origin xyz="0.04611920628731324 -0.012483021679118432 0.007499999999999951" rpy="4.281820668826322e-15 -2.775557561562965e-16 4.059776063901285e-15"/>
    <parent link="r_foot"/>
    <child link="r_sole_skin_15"/>
  </joint>
  <link name="r_sole_skin_17"/>
  <joint name="r_sole_skin_17_fixed_joint" type="fixed">
    <origin xyz="-0.029685437720402018 0.033257183248969854 0.007500000000000062" rpy="3.698953580898115e-15 -5.551115123126516e-17 4.0597760639012846e-15"/>
    <parent link="r_foot"/>
    <child link="r_sole_skin_17"/>
  </joint>
  <link name="r_sole_skin_18"/>
  <joint name="r_sole_skin_18_fixed_joint" type="fixed">
    <origin xyz="-0.04805984961523161 0.027286974917645465 0.007500000000000173" rpy="3.8654870345918885e-15 -5.551115123126516e-17 4.0597760639012846e-15"/>
    <parent link="r_foot"/>
    <child link="r_sole_skin_18"/>
  </joint>
  <link name="r_sole_skin_19"/>
  <joint name="r_sole_skin_19_fixed_joint" type="fixed">
    <origin xyz="-0.05207670348182355 0.00838916327146863 0.007500000000000062" rpy="4.059776063901291e-15 -2.775557561562965e-16 4.059776063901285e-15"/>
    <parent link="r_foot"/>
    <child link="r_sole_skin_19"/>
  </joint>
  <link name="r_sole_skin_2"/>
  <joint name="r_sole_skin_2_fixed_joint" type="fixed">
    <origin xyz="0.09320873423857477 -0.03236801997750088 0.007500000000000062" rpy="3.8377314589762596e-15 -5.551115123126516e-17 4.0597760639012846e-15"/>
    <parent link="r_foot"/>
    <child link="r_sole_skin_2"/>
  </joint>
  <link name="r_sole_skin_20"/>
  <joint name="r_sole_skin_20_fixed_joint" type="fixed">
    <origin xyz="-0.03771914545360764 -0.004538440043384773 0.007499999999999951" rpy="3.8377314589762596e-15 -5.551115123126516e-17 4.0597760639012846e-15"/>
    <parent link="r_foot"/>
    <child link="r_sole_skin_20"/>
  </joint>
  <link name="r_sole_skin_21"/>
  <joint name="r_sole_skin_21_fixed_joint" type="fixed">
    <origin xyz="0.03577850212568924 0.0193423932819118 0.007500000000000173" rpy="3.976509337054404e-15 -2.775557561562965e-16 4.059776063901285e-15"/>
    <parent link="r_foot"/>
    <child link="r_sole_skin_21"/>
  </joint>
  <link name="r_sole_skin_22"/>
  <joint name="r_sole_skin_22_fixed_joint" type="fixed">
    <origin xyz="0.027744794392483604 -0.01845323001044282 0.007499999999999951" rpy="3.8932426102075174e-15 -5.551115123126516e-17 4.0597760639012846e-15"/>
    <parent link="r_foot"/>
    <child link="r_sole_skin_22"/>
  </joint>
  <link name="r_sole_skin_24"/>
  <joint name="r_sole_skin_24_fixed_joint" type="fixed">
    <origin xyz="-0.004987175530562014 -0.011495835026913787 0.007500000000000062" rpy="3.8932426102075174e-15 -5.551115123126516e-17 4.0597760639012846e-15"/>
    <parent link="r_foot"/>
    <child link="r_sole_skin_24"/>
  </joint>
  <link name="r_sole_skin_25"/>
  <joint name="r_sole_skin_25_fixed_joint" type="fixed">
    <origin xyz="0.013387236364267634 -0.005525626695589397 0.007499999999999951" rpy="3.698953580898115e-15 -5.551115123126516e-17 4.0597760639012846e-15"/>
    <parent link="r_foot"/>
    <child link="r_sole_skin_25"/>
  </joint>
  <link name="r_sole_skin_26"/>
  <joint name="r_sole_skin_26_fixed_joint" type="fixed">
    <origin xyz="0.017404090230859558 0.01337218495058741 0.007500000000000062" rpy="3.809975883360631e-15 -5.551115123126516e-17 4.0597760639012846e-15"/>
    <parent link="r_foot"/>
    <child link="r_sole_skin_26"/>
  </joint>
  <link name="r_sole_skin_27"/>
  <joint name="r_sole_skin_27_fixed_joint" type="fixed">
    <origin xyz="0.0030465322026436287 0.026299788265440813 0.007500000000000062" rpy="3.754464732129373e-15 -5.551115123126516e-17 4.0597760639012846e-15"/>
    <parent link="r_foot"/>
    <child link="r_sole_skin_27"/>
  </joint>
  <link name="r_sole_skin_28"/>
  <joint name="r_sole_skin_28_fixed_joint" type="fixed">
    <origin xyz="-0.015327879692186026 0.02032957993411645 0.007500000000000062" rpy="3.8377314589762596e-15 1.6653345369376613e-16 4.059776063901283e-15"/>
    <parent link="r_foot"/>
    <child link="r_sole_skin_28"/>
  </joint>
  <link name="r_sole_skin_29"/>
  <joint name="r_sole_skin_29_fixed_joint" type="fixed">
    <origin xyz="-0.019344733558777992 0.0014317682879396304 0.007500000000000062" rpy="4.281820668826322e-15 -6.106226635438434e-16 4.059776063901286e-15"/>
    <parent link="r_foot"/>
    <child link="r_sole_skin_29"/>
  </joint>
  <link name="r_sole_skin_3"/>
  <joint name="r_sole_skin_3_fixed_joint" type="fixed">
    <origin xyz="0.11158314613340445 -0.026397811646176488 0.007499999999999951" rpy="4.059776063901291e-15 -2.775557561562965e-16 4.059776063901285e-15"/>
    <parent link="r_foot"/>
    <child link="r_sole_skin_3"/>
  </joint>
  <link name="r_sole_skin_4"/>
  <joint name="r_sole_skin_4_fixed_joint" type="fixed">
    <origin xyz="0.11560000000000364 -0.0074999999999993405 0.007500000000000062" rpy="3.8377314589762596e-15 -5.551115123126516e-17 4.0597760639012846e-15"/>
    <parent link="r_foot"/>
    <child link="r_sole_skin_4"/>
  </joint>
  <link name="r_sole_skin_8"/>
  <joint name="r_sole_skin_8_fixed_joint" type="fixed">
    <origin xyz="0.10525929583837236 0.024325414961030564 0.007500000000000284" rpy="3.8377314589762596e-15 3.8857805861879744e-16 4.059776063901283e-15"/>
    <parent link="r_foot"/>
    <child link="r_sole_skin_8"/>
  </joint>
  <link name="r_sole_skin_9"/>
  <joint name="r_sole_skin_9_fixed_joint" type="fixed">
    <origin xyz="0.0909017378101564 0.03725301827588398 0.007500000000000395" rpy="4.004264912670033e-15 -2.775557561562965e-16 4.059776063901285e-15"/>
    <parent link="r_foot"/>
    <child link="r_sole_skin_9"/>
  </joint>
  <link name="r_sole"/>
  <joint name="r_sole_fixed_joint" type="fixed">
    <origin xyz="0.0034999999999999754 2.7755575615628914e-17 0.0040000000000000036" rpy="-3.141592653589789 -2.775557561562965e-16 4.059776063901285e-15"/>
    <parent link="r_foot"/>
    <child link="r_sole"/>
  </joint>
  <link name="l_upper_leg_ft_gyro_3b12"/>
  <joint name="l_upper_leg_ft_gyro_3b12_fixed_joint" type="fixed">
    <origin xyz="0.0066699866755525125 -0.008524824590338043 -0.059281999999999585" rpy="-2.2204460500044183e-16 -4.004484090887982e-15 1.5707963267949105"/>
    <parent link="l_hip_2"/>
    <child link="l_upper_leg_ft_gyro_3b12"/>
  </joint>
  <link name="l_leg_ft"/>
  <joint name="l_leg_ft_fixed_joint" type="fixed">
    <origin xyz="0 0 0" rpy="0 -0 0"/>
    <parent link="l_hip_2"/>
    <child link="l_leg_ft"/>
  </joint>
  <link name="l_upper_leg_ems_gyro_eb6"/>
  <joint name="l_upper_leg_ems_gyro_eb6_fixed_joint" type="fixed">
    <origin xyz="-0.01308099999999985 -0.04040715799999858 -0.087978999999999" rpy="0.009101125000004463 1.5707962653558352 1.5889402515270619"/>
    <parent link="l_upper_leg"/>
    <child link="l_upper_leg_ems_gyro_eb6"/>
  </joint>
  <link name="l_upper_leg_ems_gyro_eb10"/>
  <joint name="l_upper_leg_ems_gyro_eb10_fixed_joint" type="fixed">
    <origin xyz="-0.013079000000000174 0.04040715800000057 -0.03565500000000052" rpy="3.1324915285897887 -1.5707962425011996 -1.5526524020627304"/>
    <parent link="l_upper_leg"/>
    <child link="l_upper_leg_ems_gyro_eb10"/>
  </joint>
  <link name="l_upper_leg_back_contact"/>
  <joint name="l_upper_leg_back_contact_fixed_joint" type="fixed">
    <origin xyz="-0.051256688758094894 -1.5265566588595902e-16 0.014600000000000113" rpy="0.24098676758720747 1.5707962671902518 1.0799038889717163"/>
    <parent link="l_upper_leg"/>
    <child link="l_upper_leg_back_contact"/>
  </joint>
  <link name="l_upper_leg_dh_frame"/>
  <joint name="l_upper_leg_dh_frame_fixed_joint" type="fixed">
    <origin xyz="-7.632783294297951e-17 2.3175905639050143e-15 -0.14582499999999962" rpy="1.5707963267948803 -2.4740989285747585e-16 -4.277769758488026e-15"/>
    <parent link="l_upper_leg"/>
    <child link="l_upper_leg_dh_frame"/>
  </joint>
  <link name="l_lower_leg_ems_gyro_eb7"/>
  <joint name="l_lower_leg_ems_gyro_eb7_fixed_joint" type="fixed">
    <origin xyz="0.04450332545796856 0.01181850000000123 -0.08830062873589911" rpy="3.141592653589718 -1.3526301702955885 -7.818215860956874e-14"/>
    <parent link="l_lower_leg"/>
    <child link="l_lower_leg_ems_gyro_eb7"/>
  </joint>
  <link name="l_foot_ft_gyro_3b13"/>
  <joint name="l_foot_ft_gyro_3b13_fixed_joint" type="fixed">
    <origin xyz="0.004000125064089269 -0.00860000000000017 -0.04528199999999927" rpy="-2.220446049250345e-16 -3.682859735485571e-15 1.5707963267949006"/>
    <parent link="l_ankle_2"/>
    <child link="l_foot_ft_gyro_3b13"/>
  </joint>
  <link name="l_foot_ft"/>
  <joint name="l_foot_ft_fixed_joint" type="fixed">
    <origin xyz="0 0 0" rpy="0 -0 0"/>
    <parent link="l_ankle_2"/>
    <child link="l_foot_ft"/>
  </joint>
  <link name="l_sole_skin_0"/>
  <joint name="l_sole_skin_0_fixed_joint" type="fixed">
    <origin xyz="0.09320873423857558 0.03236801997750337 0.007499999999999285" rpy="-1.6360717579101815e-14 -5.551115123118402e-17 4.03223966650359e-15"/>
    <parent link="l_foot"/>
    <child link="l_sole_skin_0"/>
  </joint>
  <link name="l_sole_skin_1"/>
  <joint name="l_sole_skin_1_fixed_joint" type="fixed">
    <origin xyz="0.0788511762103583 0.019439871978351175 0.007499999999999618" rpy="-1.6388473154717444e-14 -2.7755575615621533e-16 4.0322396665035865e-15"/>
    <parent link="l_foot"/>
    <child link="l_sole_skin_1"/>
  </joint>
  <link name="l_sole_skin_10"/>
  <joint name="l_sole_skin_10_fixed_joint" type="fixed">
    <origin xyz="0.10525929583837267 -0.024325414961027955 0.007500000000000395" rpy="-1.6638273335258104e-14 1.665334536938457e-16 4.032239666503594e-15"/>
    <parent link="l_foot"/>
    <child link="l_sole_skin_10"/>
  </joint>
  <link name="l_sole_skin_11"/>
  <joint name="l_sole_skin_11_fixed_joint" type="fixed">
    <origin xyz="0.10124244197177967 -0.0054281479991498405 0.007500000000000062" rpy="-1.6388473154717444e-14 -2.7755575615621533e-16 4.0322396665035865e-15"/>
    <parent link="l_foot"/>
    <child link="l_sole_skin_11"/>
  </joint>
  <link name="l_sole_skin_12"/>
  <joint name="l_sole_skin_12_fixed_joint" type="fixed">
    <origin xyz="0.08286803007695132 5.426050164730467e-4 0.007499999999999951" rpy="-1.6416228730333073e-14 3.8857805861887544e-16 4.0322396665035976e-15"/>
    <parent link="l_foot"/>
    <child link="l_sole_skin_12"/>
  </joint>
  <link name="l_sole_skin_13"/>
  <joint name="l_sole_skin_13_fixed_joint" type="fixed">
    <origin xyz="0.06851047204873403 -0.012385542982679132 0.007500000000000173" rpy="-1.6360717579101815e-14 -2.7755575615621533e-16 4.0322396665035865e-15"/>
    <parent link="l_foot"/>
    <child link="l_sole_skin_13"/>
  </joint>
  <link name="l_sole_skin_14"/>
  <joint name="l_sole_skin_14_fixed_joint" type="fixed">
    <origin xyz="0.115600000000003 0.007499455315703368 0.007499999999999951" rpy="-1.613867297417678e-14 2.7755575615636137e-16 4.032239666503596e-15"/>
    <parent link="l_foot"/>
    <child link="l_sole_skin_14"/>
  </joint>
  <link name="l_sole_skin_15"/>
  <joint name="l_sole_skin_15_fixed_joint" type="fixed">
    <origin xyz="0.11158314613340392 0.026397266961880474 0.007499999999999396" rpy="-1.6332962003486186e-14 -2.7755575615621533e-16 4.0322396665035865e-15"/>
    <parent link="l_foot"/>
    <child link="l_sole_skin_15"/>
  </joint>
  <link name="l_sole_skin_17"/>
  <joint name="l_sole_skin_17_fixed_joint" type="fixed">
    <origin xyz="-0.03771914545360699 0.00453844004338623 0.00749999999999984" rpy="-1.6388473154717444e-14 -5.551115123118402e-17 4.03223966650359e-15"/>
    <parent link="l_foot"/>
    <child link="l_sole_skin_17"/>
  </joint>
  <link name="l_sole_skin_18"/>
  <joint name="l_sole_skin_18_fixed_joint" type="fixed">
    <origin xyz="-0.0520767034818242 -0.008389707955765976 0.007500000000000062" rpy="-1.6388473154717444e-14 -2.7755575615621533e-16 4.0322396665035865e-15"/>
    <parent link="l_foot"/>
    <child link="l_sole_skin_18"/>
  </joint>
  <link name="l_sole_skin_19"/>
  <joint name="l_sole_skin_19_fixed_joint" type="fixed">
    <origin xyz="-0.04805984961523121 -0.02728697491764409 0.007500000000000395" rpy="-1.6693784486489362e-14 -2.7755575615621533e-16 4.0322396665035865e-15"/>
    <parent link="l_foot"/>
    <child link="l_sole_skin_19"/>
  </joint>
  <link name="l_sole_skin_2"/>
  <joint name="l_sole_skin_2_fixed_joint" type="fixed">
    <origin xyz="0.060476764315529924 0.02541062499397409 0.007499999999999507" rpy="-1.6693784486489362e-14 -2.7755575615621533e-16 4.0322396665035865e-15"/>
    <parent link="l_foot"/>
    <child link="l_sole_skin_2"/>
  </joint>
  <link name="l_sole_skin_20"/>
  <joint name="l_sole_skin_20_fixed_joint" type="fixed">
    <origin xyz="-0.029685437720402878 -0.03325772793326702 0.007500000000000395" rpy="-1.6388473154717444e-14 -2.7755575615621533e-16 4.0322396665035865e-15"/>
    <parent link="l_foot"/>
    <child link="l_sole_skin_20"/>
  </joint>
  <link name="l_sole_skin_21"/>
  <joint name="l_sole_skin_21_fixed_joint" type="fixed">
    <origin xyz="0.027744794392484305 0.018453230010444792 0.007499999999999618" rpy="-1.6388473154717444e-14 -5.551115123118402e-17 4.03223966650359e-15"/>
    <parent link="l_foot"/>
    <child link="l_sole_skin_21"/>
  </joint>
  <link name="l_sole_skin_22"/>
  <joint name="l_sole_skin_22_fixed_joint" type="fixed">
    <origin xyz="0.03577850212568842 -0.019342937966208423 0.007500000000000173" rpy="-1.6388473154717444e-14 -2.7755575615621533e-16 4.0322396665035865e-15"/>
    <parent link="l_foot"/>
    <child link="l_sole_skin_22"/>
  </joint>
  <link name="l_sole_skin_24"/>
  <joint name="l_sole_skin_24_fixed_joint" type="fixed">
    <origin xyz="0.003046532202642782 -0.026300332949737715 0.007500000000000395" rpy="-1.6388473154717444e-14 -2.7755575615621533e-16 4.0322396665035865e-15"/>
    <parent link="l_foot"/>
    <child link="l_sole_skin_24"/>
  </joint>
  <link name="l_sole_skin_25"/>
  <joint name="l_sole_skin_25_fixed_joint" type="fixed">
    <origin xyz="0.017404090230860023 -0.013372184950585536 0.007500000000000062" rpy="-1.6666028910873733e-14 1.665334536938457e-16 4.032239666503594e-15"/>
    <parent link="l_foot"/>
    <child link="l_sole_skin_25"/>
  </joint>
  <link name="l_sole_skin_26"/>
  <joint name="l_sole_skin_26_fixed_joint" type="fixed">
    <origin xyz="0.013387236364267044 0.0055250820112925925 0.00749999999999984" rpy="-1.6360717579101815e-14 -2.7755575615621533e-16 4.0322396665035865e-15"/>
    <parent link="l_foot"/>
    <child link="l_sole_skin_26"/>
  </joint>
  <link name="l_sole_skin_27"/>
  <joint name="l_sole_skin_27_fixed_joint" type="fixed">
    <origin xyz="-0.0049871755305613275 0.011495835026915514 0.007499999999999729" rpy="-1.6999095818261283e-14 1.665334536938457e-16 4.032239666503594e-15"/>
    <parent link="l_foot"/>
    <child link="l_sole_skin_27"/>
  </joint>
  <link name="l_sole_skin_28"/>
  <joint name="l_sole_skin_28_fixed_joint" type="fixed">
    <origin xyz="-0.019344733558778603 -0.001432312972236699 0.007499999999999951" rpy="-1.6388473154717444e-14 -2.7755575615621533e-16 4.0322396665035865e-15"/>
    <parent link="l_foot"/>
    <child link="l_sole_skin_28"/>
  </joint>
  <link name="l_sole_skin_29"/>
  <joint name="l_sole_skin_29_fixed_joint" type="fixed">
    <origin xyz="-0.015327879692185596 -0.020329579934114814 0.007500000000000284" rpy="-1.672154006210499e-14 -2.7755575615621533e-16 4.0322396665035865e-15"/>
    <parent link="l_foot"/>
    <child link="l_sole_skin_29"/>
  </joint>
  <link name="l_sole_skin_3"/>
  <joint name="l_sole_skin_3_fixed_joint" type="fixed">
    <origin xyz="0.0461192062873127 0.01248247699482189 0.007499999999999729" rpy="-1.6388473154717444e-14 -2.7755575615621533e-16 4.0322396665035865e-15"/>
    <parent link="l_foot"/>
    <child link="l_sole_skin_3"/>
  </joint>
  <link name="l_sole_skin_4"/>
  <joint name="l_sole_skin_4_fixed_joint" type="fixed">
    <origin xyz="0.05013606015390567 -0.006414789967056231 0.007500000000000062" rpy="-1.6360717579101815e-14 -5.551115123118402e-17 4.03223966650359e-15"/>
    <parent link="l_foot"/>
    <child link="l_sole_skin_4"/>
  </joint>
  <link name="l_sole_skin_8"/>
  <joint name="l_sole_skin_8_fixed_joint" type="fixed">
    <origin xyz="0.07252732591532704 -0.03128280994455725 0.007500000000000506" rpy="-1.6693784486489362e-14 -2.7755575615621533e-16 4.0322396665035865e-15"/>
    <parent link="l_foot"/>
    <child link="l_sole_skin_8"/>
  </joint>
  <link name="l_sole_skin_9"/>
  <joint name="l_sole_skin_9_fixed_joint" type="fixed">
    <origin xyz="0.0909017378101554 -0.03725356296018015 0.007500000000000506" rpy="-1.6360717579101815e-14 -2.7755575615621533e-16 4.0322396665035865e-15"/>
    <parent link="l_foot"/>
    <child link="l_sole_skin_9"/>
  </joint>
  <link name="l_sole"/>
  <joint name="l_sole_fixed_joint" type="fixed">
    <origin xyz="0.0034999999999999684 -5.551115123125783e-17 0.0040000000000000036" rpy="3.1415926535897767 -5.551115123118402e-17 4.03223966650359e-15"/>
    <parent link="l_foot"/>
    <child link="l_sole"/>
  </joint>
  <link name="chest_ems_gyro_eb1"/>
  <joint name="chest_ems_gyro_eb1_fixed_joint" type="fixed">
    <origin xyz="-0.06920158043718959 0.06352579418231738 -0.11504839530807805" rpy="1.5707963267949012 2.826704705885797e-4 -2.879793265790651"/>
    <parent link="chest"/>
    <child link="chest_ems_gyro_eb1"/>
  </joint>
  <link name="chest_ems_gyro_eb2"/>
  <joint name="chest_ems_gyro_eb2_fixed_joint" type="fixed">
    <origin xyz="-0.01603705635066265 0.06534787131236582 -0.13805921017073078" rpy="-1.5707963267949037 8.03341902516577e-6 0.261799387799148"/>
    <parent link="chest"/>
    <child link="chest_ems_gyro_eb2"/>
  </joint>
  <link name="chest_ems_gyro_eb3"/>
  <joint name="chest_ems_gyro_eb3_fixed_joint" type="fixed">
    <origin xyz="0.018641713614234157 0.07707869494684902 -0.11502127484380319" rpy="1.5703926200731744 -2.985961815591111e-4 2.880492422199697"/>
    <parent link="chest"/>
    <child link="chest_ems_gyro_eb3"/>
  </joint>
  <link name="chest_ems_gyro_eb4"/>
  <joint name="chest_ems_gyro_eb4_fixed_joint" type="fixed">
    <origin xyz="0.066578362315813 0.05180536937812645 -0.13805921010947644" rpy="-1.5707963297181093 8.030438492413042e-6 -0.261799385885807"/>
    <parent link="chest"/>
    <child link="chest_ems_gyro_eb4"/>
  </joint>
  <link name="r_arm_ft_imu"/>
  <joint name="r_arm_ft_imu_fixed_joint" type="fixed">
    <origin xyz="0.015000000000000369 7.148337477502769e-16 -6.938893903907228e-18" rpy="2.4651903288156613e-32 -0 -1.2325951644078307e-32"/>
    <parent link="r_shoulder_3"/>
    <child link="r_arm_ft_imu"/>
  </joint>
  <link name="r_arm_ft"/>
  <joint name="r_arm_ft_fixed_joint" type="fixed">
    <origin xyz="0.015000000000000369 7.148337477502769e-16 -6.938893903907228e-18" rpy="0 -0 0"/>
    <parent link="r_shoulder_3"/>
    <child link="r_arm_ft"/>
  </joint>
  <link name="r_forearm_dh_frame"/>
  <joint name="r_forearm_dh_frame_fixed_joint" type="fixed">
    <origin xyz="-0.39975806246799384 7.037206368566053e-6 0.10711485000612925" rpy="-0.2617993877991502 1.9303075663671627e-15 -1.5707963267948972"/>
    <parent link="r_forearm"/>
    <child link="r_forearm_dh_frame"/>
  </joint>
  <link name="r_forearm_skin_0"/>
  <joint name="r_forearm_skin_0_fixed_joint" type="fixed">
    <origin xyz="-0.3423362465593917 0.030077009769838115 0.07326405291281606" rpy="1.6918152106978133 -0.27102708852183277 -3.0688044694957544"/>
    <parent link="r_forearm"/>
    <child link="r_forearm_skin_0"/>
  </joint>
  <link name="r_forearm_skin_1"/>
  <joint name="r_forearm_skin_1_fixed_joint" type="fixed">
    <origin xyz="-0.3302598679426427 0.028826293032908224 0.05970489736096627" rpy="1.866940056297149 -0.2744427135115297 -3.0994696948231004"/>
    <parent link="r_forearm"/>
    <child link="r_forearm_skin_1"/>
  </joint>
  <link name="r_forearm_skin_10"/>
  <joint name="r_forearm_skin_10_fixed_joint" type="fixed">
    <origin xyz="-0.3511154554354424 -0.009786249246818032 0.04740369995328621" rpy="-2.941232950999728 -0.3283043427933777 3.12762631765376"/>
    <parent link="r_forearm"/>
    <child link="r_forearm_skin_10"/>
  </joint>
  <link name="r_forearm_skin_11"/>
  <joint name="r_forearm_skin_11_fixed_joint" type="fixed">
    <origin xyz="-0.35111110408002516 0.009043295397790075 0.04740748826509608" rpy="2.939298305657914 -0.3291014681276981 -3.1273191257408683"/>
    <parent link="r_forearm"/>
    <child link="r_forearm_skin_11"/>
  </joint>
  <link name="r_forearm_skin_12"/>
  <joint name="r_forearm_skin_12_fixed_joint" type="fixed">
    <origin xyz="-0.3344864684431325 0.01821565381839197 0.04553148423445535" rpy="2.5830351533109996 -0.294830331114233 -3.1202656149057995"/>
    <parent link="r_forearm"/>
    <child link="r_forearm_skin_12"/>
  </joint>
  <link name="r_forearm_skin_13"/>
  <joint name="r_forearm_skin_13_fixed_joint" type="fixed">
    <origin xyz="-0.3197420175658613 0.009047899394452231 0.03765866916885639" rpy="2.9489670067926226 -0.2705838517134989 -3.1398189599844177"/>
    <parent link="r_forearm"/>
    <child link="r_forearm_skin_13"/>
  </joint>
  <link name="r_forearm_skin_14"/>
  <joint name="r_forearm_skin_14_fixed_joint" type="fixed">
    <origin xyz="-0.36565719998414203 0.017159956029771748 0.056526604890875944" rpy="2.480449133477389 -0.29554265795948825 -2.91877322852675"/>
    <parent link="r_forearm"/>
    <child link="r_forearm_skin_14"/>
  </joint>
  <link name="r_forearm_skin_15"/>
  <joint name="r_forearm_skin_15_fixed_joint" type="fixed">
    <origin xyz="-0.3602651920425032 0.02714444226836274 0.0707564879318488" rpy="1.804927806704947 -0.2897835235835913 -3.0276595074758044"/>
    <parent link="r_forearm"/>
    <child link="r_forearm_skin_15"/>
  </joint>
  <link name="r_forearm_skin_16"/>
  <joint name="r_forearm_skin_16_fixed_joint" type="fixed">
    <origin xyz="-0.3348117948451558 0.030486893468783607 0.10018761710615538" rpy="1.4127997106304861 -0.25082461061636274 -3.0657272710221277"/>
    <parent link="r_forearm"/>
    <child link="r_forearm_skin_16"/>
  </joint>
  <link name="r_forearm_skin_17"/>
  <joint name="r_forearm_skin_17_fixed_joint" type="fixed">
    <origin xyz="-0.3512040342163109 0.027724746170179445 0.10987976490396452" rpy="1.2722368075089345 -0.2305929816763828 -3.0319552996146917"/>
    <parent link="r_forearm"/>
    <child link="r_forearm_skin_17"/>
  </joint>
  <link name="r_forearm_skin_19"/>
  <joint name="r_forearm_skin_19_fixed_joint" type="fixed">
    <origin xyz="-0.3350135630428064 -0.03129420701289667 0.10024121051192111" rpy="-1.4156090531119225 -0.2525691162880478 3.0771522715294464"/>
    <parent link="r_forearm"/>
    <child link="r_forearm_skin_19"/>
  </joint>
  <link name="r_forearm_skin_2"/>
  <joint name="r_forearm_skin_2_fixed_joint" type="fixed">
    <origin xyz="-0.31158589432766465 0.03127845576390131 0.06353887508737818" rpy="1.7284723207442751 -0.2640150260896427 -3.127332285269973"/>
    <parent link="r_forearm"/>
    <child link="r_forearm_skin_2"/>
  </joint>
  <link name="r_forearm_skin_22"/>
  <joint name="r_forearm_skin_22_fixed_joint" type="fixed">
    <origin xyz="-0.3513044100028689 -0.02872242880053345 0.11015436580919803" rpy="-1.2658248459987047 -0.23432787794467716 3.0478834146577083"/>
    <parent link="r_forearm"/>
    <child link="r_forearm_skin_22"/>
  </joint>
  <link name="r_forearm_skin_24"/>
  <joint name="r_forearm_skin_24_fixed_joint" type="fixed">
    <origin xyz="-0.3669214164902977 -0.00971651349304817 0.12961970599166875" rpy="-0.23489374084453485 -0.03881743866948063 3.0867633705054645"/>
    <parent link="r_forearm"/>
    <child link="r_forearm_skin_24"/>
  </joint>
  <link name="r_forearm_skin_25"/>
  <joint name="r_forearm_skin_25_fixed_joint" type="fixed">
    <origin xyz="-0.3504868048301931 -0.01822390624905482 0.12502041593223348" rpy="-0.564296263365171 -0.1369804792821034 3.059631811772182"/>
    <parent link="r_forearm"/>
    <child link="r_forearm_skin_25"/>
  </joint>
  <link name="r_forearm_skin_28"/>
  <joint name="r_forearm_skin_28_fixed_joint" type="fixed">
    <origin xyz="-0.3504732845576158 0.017412332862289204 0.12490276107859058" rpy="0.5907704614313065 -0.05316087200180389 3.1059710060739567"/>
    <parent link="r_forearm"/>
    <child link="r_forearm_skin_28"/>
  </joint>
  <link name="r_forearm_skin_29"/>
  <joint name="r_forearm_skin_29_fixed_joint" type="fixed">
    <origin xyz="-0.3669225049718499 0.00895371572473404 0.1295617149819911" rpy="0.24863108263855088 -0.03831348863533154 -3.083289758269179"/>
    <parent link="r_forearm"/>
    <child link="r_forearm_skin_29"/>
  </joint>
  <link name="r_forearm_skin_3"/>
  <joint name="r_forearm_skin_3_fixed_joint" type="fixed">
    <origin xyz="-0.34245428714007015 -0.030891120947895246 0.07322061452554718" rpy="-1.6948728341920336 -0.26975768040501297 3.079596999480086"/>
    <parent link="r_forearm"/>
    <child link="r_forearm_skin_3"/>
  </joint>
  <link name="r_forearm_skin_4"/>
  <joint name="r_forearm_skin_4_fixed_joint" type="fixed">
    <origin xyz="-0.3604200387848667 -0.02811643124623109 0.0705528786164437" rpy="-1.8073496486177034 -0.03931319234307014 2.9799764847254675"/>
    <parent link="r_forearm"/>
    <child link="r_forearm_skin_4"/>
  </joint>
  <link name="r_forearm_skin_5"/>
  <joint name="r_forearm_skin_5_fixed_joint" type="fixed">
    <origin xyz="-0.36570787181819936 -0.017948431787479777 0.056437232149458456" rpy="-2.5410478314766993 -0.38562726491118215 3.054870194973334"/>
    <parent link="r_forearm"/>
    <child link="r_forearm_skin_5"/>
  </joint>
  <link name="r_forearm_skin_6"/>
  <joint name="r_forearm_skin_6_fixed_joint" type="fixed">
    <origin xyz="-0.3302817938767864 -0.029547974813574483 0.05971803772414063" rpy="-1.8662821463462844 -0.2728866518543168 3.1044858124107173"/>
    <parent link="r_forearm"/>
    <child link="r_forearm_skin_6"/>
  </joint>
  <link name="r_forearm_skin_7"/>
  <joint name="r_forearm_skin_7_fixed_joint" type="fixed">
    <origin xyz="-0.31160937145044787 -0.031942324454505754 0.06361795032087804" rpy="-1.7256462737892513 -0.2639935908461539 3.1272127123311915"/>
    <parent link="r_forearm"/>
    <child link="r_forearm_skin_7"/>
  </joint>
  <link name="r_forearm_skin_8"/>
  <joint name="r_forearm_skin_8_fixed_joint" type="fixed">
    <origin xyz="-0.31973985894755536 -0.009786303167868382 0.03766548710166177" rpy="-2.948019611703248 -0.27060503308504397 3.139805717931632"/>
    <parent link="r_forearm"/>
    <child link="r_forearm_skin_8"/>
  </joint>
  <link name="r_forearm_skin_9"/>
  <joint name="r_forearm_skin_9_fixed_joint" type="fixed">
    <origin xyz="-0.3344902651064994 -0.01895506994850264 0.045534308455643525" rpy="-2.5840649366858166 -0.2933215204709461 3.121284080488357"/>
    <parent link="r_forearm"/>
    <child link="r_forearm_skin_9"/>
  </joint>
  <link name="r_hand_dh_frame"/>
  <joint name="r_hand_dh_frame_fixed_joint" type="fixed">
    <origin xyz="-0.05765456340604541 -0.025049827428687797 0.013693853172479398" rpy="-1.570796326794898 -0.2617993877991494 3.1415926535897913"/>
    <parent link="r_hand"/>
    <child link="r_hand_dh_frame"/>
  </joint>
  <link name="l_arm_ft_imu"/>
  <joint name="l_arm_ft_imu_fixed_joint" type="fixed">
    <origin xyz="0.014999999999999934 -4.0758438291099496e-16 6.938893903907228e-18" rpy="-5.214195303936882e-16 -0 -5.423418723394444e-31"/>
    <parent link="l_shoulder_3"/>
    <child link="l_arm_ft_imu"/>
  </joint>
  <link name="l_arm_ft"/>
  <joint name="l_arm_ft_fixed_joint" type="fixed">
    <origin xyz="0.014999999999999934 -4.0758438291099496e-16 6.938893903907228e-18" rpy="0 -0 0"/>
    <parent link="l_shoulder_3"/>
    <child link="l_arm_ft"/>
  </joint>
  <link name="l_forearm_dh_frame"/>
  <joint name="l_forearm_dh_frame_fixed_joint" type="fixed">
    <origin xyz="0.39975806246799456 7.037206368524301e-6 0.10711485000612656" rpy="2.879793265790644 1.9303075663671646e-15 1.5707963267948961"/>
    <parent link="l_forearm"/>
    <child link="l_forearm_dh_frame"/>
  </joint>
  <link name="l_forearm_skin_0"/>
  <joint name="l_forearm_skin_0_fixed_joint" type="fixed">
    <origin xyz="0.3423362465593925 -0.03231700976983801 0.07326405291281342" rpy="1.6918152106978122 -0.27102708852183227 0.07278818409403791"/>
    <parent link="l_forearm"/>
    <child link="l_forearm_skin_0"/>
  </joint>
  <link name="l_forearm_skin_1"/>
  <joint name="l_forearm_skin_1_fixed_joint" type="fixed">
    <origin xyz="0.3302598679426435 -0.03106629303290811 0.059704897360963655" rpy="1.8669400562971479 -0.27444271351152905 0.04212295876669159"/>
    <parent link="l_forearm"/>
    <child link="l_forearm_skin_1"/>
  </joint>
  <link name="l_forearm_skin_10"/>
  <joint name="l_forearm_skin_10_fixed_joint" type="fixed">
    <origin xyz="0.3511154554354431 0.00754624924681815 0.04740369995328351" rpy="-2.9412329509997295 -0.3283043427933775 -0.013966335936034104"/>
    <parent link="l_forearm"/>
    <child link="l_forearm_skin_10"/>
  </joint>
  <link name="l_forearm_skin_11"/>
  <joint name="l_forearm_skin_11_fixed_joint" type="fixed">
    <origin xyz="0.35111110408002594 -0.011283295397790013 0.04740748826509341" rpy="2.9392983056579127 -0.3291014681276975 0.014273527848923873"/>
    <parent link="l_forearm"/>
    <child link="l_forearm_skin_11"/>
  </joint>
  <link name="l_forearm_skin_12"/>
  <joint name="l_forearm_skin_12_fixed_joint" type="fixed">
    <origin xyz="0.3344864684431333 -0.02045565381839185 0.045531484234452704" rpy="2.5830351533109983 -0.29483033111423246 0.021327038683992647"/>
    <parent link="l_forearm"/>
    <child link="l_forearm_skin_12"/>
  </joint>
  <link name="l_forearm_skin_13"/>
  <joint name="l_forearm_skin_13_fixed_joint" type="fixed">
    <origin xyz="0.31974201756586207 -0.011287899394452112 0.03765866916885375" rpy="2.9489670067926212 -0.2705838517134983 0.0017736936053746185"/>
    <parent link="l_forearm"/>
    <child link="l_forearm_skin_13"/>
  </joint>
  <link name="l_forearm_skin_14"/>
  <joint name="l_forearm_skin_14_fixed_joint" type="fixed">
    <origin xyz="0.365657199984143 -0.019399956029771688 0.05652660489087327" rpy="2.5246221606499994 -0.3877943397649884 0.09129184802230782"/>
    <parent link="l_forearm"/>
    <child link="l_forearm_skin_14"/>
  </joint>
  <link name="l_forearm_skin_15"/>
  <joint name="l_forearm_skin_15_fixed_joint" type="fixed">
    <origin xyz="0.360265192042504 -0.029384442268362634 0.07075648793184615" rpy="1.804927806704946 -0.28978352358359066 0.11393314611398772"/>
    <parent link="l_forearm"/>
    <child link="l_forearm_skin_15"/>
  </joint>
  <link name="l_forearm_skin_16"/>
  <joint name="l_forearm_skin_16_fixed_joint" type="fixed">
    <origin xyz="0.3348117948451565 -0.03272689346878347 0.10018761710615277" rpy="1.412799710630485 -0.25082461061636213 0.07586538256766459"/>
    <parent link="l_forearm"/>
    <child link="l_forearm_skin_16"/>
  </joint>
  <link name="l_forearm_skin_17"/>
  <joint name="l_forearm_skin_17_fixed_joint" type="fixed">
    <origin xyz="0.35120403421631163 -0.029964746170179284 0.1098797649039619" rpy="1.2722368075089334 -0.2305929816763822 0.10963735397510041"/>
    <parent link="l_forearm"/>
    <child link="l_forearm_skin_17"/>
  </joint>
  <link name="l_forearm_skin_19"/>
  <joint name="l_forearm_skin_19_fixed_joint" type="fixed">
    <origin xyz="0.3350135630428071 0.02905420701289684 0.10024121051191841" rpy="-1.4156090531119239 -0.2525691162880474 -0.06444038206034794"/>
    <parent link="l_forearm"/>
    <child link="l_forearm_skin_19"/>
  </joint>
  <link name="l_forearm_skin_2"/>
  <joint name="l_forearm_skin_2_fixed_joint" type="fixed">
    <origin xyz="0.3115858943276653 -0.033518455763901174 0.06353887508737557" rpy="1.728472320744274 -0.2640150260896422 0.014260368319819083"/>
    <parent link="l_forearm"/>
    <child link="l_forearm_skin_2"/>
  </joint>
  <link name="l_forearm_skin_22"/>
  <joint name="l_forearm_skin_22_fixed_joint" type="fixed">
    <origin xyz="0.3513044100028696 0.02648242880053361 0.11015436580919533" rpy="-1.265824845998706 -0.23432787794467677 -0.09370923893208594"/>
    <parent link="l_forearm"/>
    <child link="l_forearm_skin_22"/>
  </joint>
  <link name="l_forearm_skin_24"/>
  <joint name="l_forearm_skin_24_fixed_joint" type="fixed">
    <origin xyz="0.3669214164902983 0.0074765134930483155 0.12961970599166608" rpy="-0.23489374084453593 -0.03881743866948019 -0.05482928308433017"/>
    <parent link="l_forearm"/>
    <child link="l_forearm_skin_24"/>
  </joint>
  <link name="l_forearm_skin_25"/>
  <joint name="l_forearm_skin_25_fixed_joint" type="fixed">
    <origin xyz="0.350486804830194 0.015983906249054998 0.1250204159322308" rpy="-0.5642962633651719 -0.136980479282103 -0.08196084181761251"/>
    <parent link="l_forearm"/>
    <child link="l_forearm_skin_25"/>
  </joint>
  <link name="l_forearm_skin_28"/>
  <joint name="l_forearm_skin_28_fixed_joint" type="fixed">
    <origin xyz="0.3504732845576167 -0.01965233286228907 0.12490276107858791" rpy="0.5793114996359181 -0.13399414877031468 0.08675970045327747"/>
    <parent link="l_forearm"/>
    <child link="l_forearm_skin_28"/>
  </joint>
  <link name="l_forearm_skin_29"/>
  <joint name="l_forearm_skin_29_fixed_joint" type="fixed">
    <origin xyz="0.36692250497185064 -0.01119371572473392 0.12956171498198843" rpy="0.24863108263854977 -0.03831348863533098 0.05830289532061274"/>
    <parent link="l_forearm"/>
    <child link="l_forearm_skin_29"/>
  </joint>
  <link name="l_forearm_skin_3"/>
  <joint name="l_forearm_skin_3_fixed_joint" type="fixed">
    <origin xyz="0.34245428714007087 0.02865112094789542 0.07322061452554444" rpy="-1.6948728341920347 -0.2697576804050127 -0.0619956541097085"/>
    <parent link="l_forearm"/>
    <child link="l_forearm_skin_3"/>
  </joint>
  <link name="l_forearm_skin_4"/>
  <joint name="l_forearm_skin_4_fixed_joint" type="fixed">
    <origin xyz="0.36042003878486734 0.025876431246231235 0.07055287861644098" rpy="-1.8174789518272525 -0.28740722634219423 -0.09983129234652897"/>
    <parent link="l_forearm"/>
    <child link="l_forearm_skin_4"/>
  </joint>
  <link name="l_forearm_skin_5"/>
  <joint name="l_forearm_skin_5_fixed_joint" type="fixed">
    <origin xyz="0.3657078718182 0.015708431787479923 0.05643723214945575" rpy="-2.5410478314767007 -0.3856272649111817 -0.08672245861646005"/>
    <parent link="l_forearm"/>
    <child link="l_forearm_skin_5"/>
  </joint>
  <link name="l_forearm_skin_6"/>
  <joint name="l_forearm_skin_6_fixed_joint" type="fixed">
    <origin xyz="0.3302817938767872 0.027307974813574602 0.05971803772413796" rpy="-1.8662821463462855 -0.27288665185431643 -0.037106841179076804"/>
    <parent link="l_forearm"/>
    <child link="l_forearm_skin_6"/>
  </joint>
  <link name="l_forearm_skin_7"/>
  <joint name="l_forearm_skin_7_fixed_joint" type="fixed">
    <origin xyz="0.3116093714504486 0.029702324454505928 0.06361795032087536" rpy="-1.7256462737892524 -0.26399359084615354 -0.01437994125860298"/>
    <parent link="l_forearm"/>
    <child link="l_forearm_skin_7"/>
  </joint>
  <link name="l_forearm_skin_8"/>
  <joint name="l_forearm_skin_8_fixed_joint" type="fixed">
    <origin xyz="0.3197398589475561 0.007546303167868516 0.037665487101659095" rpy="-2.9480196117032493 -0.2706050330850435 -0.001786935658162596"/>
    <parent link="l_forearm"/>
    <child link="l_forearm_skin_8"/>
  </joint>
  <link name="l_forearm_skin_9"/>
  <joint name="l_forearm_skin_9_fixed_joint" type="fixed">
    <origin xyz="0.3344902651065001 0.016715069948502786 0.045534308455640854" rpy="-2.584064936685818 -0.29332152047094556 -0.020308573101437147"/>
    <parent link="l_forearm"/>
    <child link="l_forearm_skin_9"/>
  </joint>
  <link name="l_hand_dh_frame"/>
  <joint name="l_hand_dh_frame_fixed_joint" type="fixed">
    <origin xyz="0.05765456340604469 -0.025049827428688422 0.013693853172480175" rpy="-1.5707963267948946 -0.26179938779914863 6.510084879686338e-16"/>
    <parent link="l_hand"/>
    <child link="l_hand_dh_frame"/>
  </joint>
  <link name="head_imu_0"/>
  <joint name="head_imu_0_fixed_joint" type="fixed">
    <origin xyz="0.005499999999999079 -0.00344999999999977 0.16898200000000405" rpy="3.141592653589793 -0 3.141592653589793"/>
    <parent link="head"/>
    <child link="head_imu_0"/>
  </joint>
  <link name="imu_frame"/>
  <joint name="imu_frame_fixed_joint" type="fixed">
    <origin xyz="0.005499999999999079 -0.00344999999999977 0.16898200000000405" rpy="3.141592653589793 -0 3.141592653589793"/>
    <parent link="head"/>
    <child link="imu_frame"/>
  </joint>
  <link name="eyes_tilt"/>
  <joint name="eyes_tilt_fixed_joint" type="fixed">
    <origin xyz="0 0 0" rpy="0 -0 -5.466875474265756e-32"/>
    <parent link="eyes_tilt_frame"/>
    <child link="eyes_tilt"/>
  </joint>
  <link name="l_eye_pan"/>
  <joint name="l_eye_pan_fixed_joint" type="fixed">
    <origin xyz="0 0 0" rpy="0 -0 4.399848597301645e-31"/>
    <parent link="l_eye"/>
    <child link="l_eye_pan"/>
  </joint>
  <link name="r_eye_pan"/>
  <joint name="r_eye_pan_fixed_joint" type="fixed">
    <origin xyz="0 0 0" rpy="0 -0 4.399848597301645e-31"/>
    <parent link="r_eye"/>
    <child link="r_eye_pan"/>
  </joint>
  <link name="base_link"/>
  <joint name="base_link_fixed_joint" type="fixed">
    <origin xyz="0 0 0" rpy="0 -0 0"/>
    <axis xyz="0 0 0"/>
    <parent link="root_link"/>
    <child link="base_link"/>
  </joint>
  <link name="l_foot_dh_frame"/>
  <joint name="l_foot_dh_frame_fixed_joint" type="fixed">
    <origin xyz="0.0 0 0.004" rpy="0 1.5708 0"/>
    <axis xyz="0 0 0"/>
    <parent link="l_foot"/>
    <child link="l_foot_dh_frame"/>
  </joint>
  <link name="r_foot_dh_frame"/>
  <joint name="r_foot_dh_frame_fixed_joint" type="fixed">
    <origin xyz="0.0 0 0.004" rpy="0 1.5708 0"/>
    <axis xyz="0 0 0"/>
    <parent link="r_foot"/>
    <child link="r_foot_dh_frame"/>
  </joint>
  <gazebo reference="r_arm_ft_sensor">
    <preserveFixedJoint>true</preserveFixedJoint>
    <!-- For compatibility with SDFormat < 4.4 -->
    <disableFixedJointLumping>true</disableFixedJointLumping>
  </gazebo>
  <gazebo reference="l_arm_ft_sensor">
    <preserveFixedJoint>true</preserveFixedJoint>
    <!-- For compatibility with SDFormat < 4.4 -->
    <disableFixedJointLumping>true</disableFixedJointLumping>
  </gazebo>
  <gazebo reference="r_leg_ft_sensor">
    <preserveFixedJoint>true</preserveFixedJoint>
    <!-- For compatibility with SDFormat < 4.4 -->
    <disableFixedJointLumping>true</disableFixedJointLumping>
  </gazebo>
  <gazebo reference="l_leg_ft_sensor">
    <preserveFixedJoint>true</preserveFixedJoint>
    <!-- For compatibility with SDFormat < 4.4 -->
    <disableFixedJointLumping>true</disableFixedJointLumping>
  </gazebo>
  <gazebo reference="r_foot_ft_sensor">
    <preserveFixedJoint>true</preserveFixedJoint>
    <!-- For compatibility with SDFormat < 4.4 -->
    <disableFixedJointLumping>true</disableFixedJointLumping>
  </gazebo>
  <gazebo reference="l_foot_ft_sensor">
    <preserveFixedJoint>true</preserveFixedJoint>
    <!-- For compatibility with SDFormat < 4.4 -->
    <disableFixedJointLumping>true</disableFixedJointLumping>
  </gazebo>
  <gazebo reference="l_foot">
    <collision>
      <surface>
        <bounce>
          <restitution_coefficient>0</restitution_coefficient>
          <threshold>100000</threshold>
        </bounce>
      </surface>
    </collision>
    <maxContacts>4</maxContacts>
    <kp>18000000</kp>
    <kd>100</kd>
    <maxVel>100</maxVel>
    <minDepth>0.0001</minDepth>
    <mu1>1</mu1>
    <mu2>1</mu2>
    <fdir1>0 0 0</fdir1>
  </gazebo>
  <gazebo reference="r_foot">
    <collision>
      <surface>
        <bounce>
          <restitution_coefficient>0</restitution_coefficient>
          <threshold>100000</threshold>
        </bounce>
      </surface>
    </collision>
    <maxContacts>4</maxContacts>
    <kp>18000000</kp>
    <kd>100</kd>
    <maxVel>100</maxVel>
    <minDepth>0.0001</minDepth>
    <mu1>1</mu1>
    <mu2>1</mu2>
    <fdir1>0 0 0</fdir1>
  </gazebo>
  <gazebo>
    <plugin name="gzyarp::ControlBoard" filename="gz-sim-yarp-controlboard-system">
      <yarpConfigurationFile>model://iCub/conf/gazebo_icub_torso.ini</yarpConfigurationFile>
    </plugin>
    <plugin name="gzyarp::ControlBoard" filename="gz-sim-yarp-controlboard-system">
      <yarpConfigurationFile>model://iCub/conf/gazebo_icub_head_without_eyes.ini</yarpConfigurationFile>
    </plugin>
    <plugin name="gzyarp::ControlBoard" filename="gz-sim-yarp-controlboard-system">
      <yarpConfigurationFile>model://iCub/conf_models/gazebo_icub_eyes.ini</yarpConfigurationFile>
    </plugin>
    <plugin name="gzyarp::ControlBoard" filename="gz-sim-yarp-controlboard-system">
      <yarpConfigurationFile>model://iCub/conf/gazebo_icub_left_arm_no_hand_for_no_hand_model.ini</yarpConfigurationFile>
      <initialConfiguration>-0.52 0.52 0 0.785 0 0 0.0</initialConfiguration>
    </plugin>
    <plugin name="gzyarp::ControlBoard" filename="gz-sim-yarp-controlboard-system">
      <yarpConfigurationFile>model://iCub/conf/gazebo_icub_right_arm_no_hand_for_no_hand_model.ini</yarpConfigurationFile>
      <initialConfiguration>-0.52 0.52 0 0.785 0 0 0.0</initialConfiguration>
    </plugin>
    <plugin name="gzyarp::ControlBoard" filename="gz-sim-yarp-controlboard-system">
      <yarpConfigurationFile>model://iCub/conf/gazebo_icub_right_leg.ini</yarpConfigurationFile>
    </plugin>
    <plugin name="gzyarp::ControlBoard" filename="gz-sim-yarp-controlboard-system">
      <yarpConfigurationFile>model://iCub/conf/gazebo_icub_left_leg.ini</yarpConfigurationFile>
    </plugin>
  </gazebo>
  <gazebo>
    <plugin name="gzyarp::ForceTorque" filename="gz-sim-yarp-forcetorque-system">
      <yarpConfigurationFile>model://iCub/conf/FT/gazebo_icub_right_arm_ft.ini</yarpConfigurationFile>
    </plugin>
  </gazebo>
  <gazebo>
    <plugin name="gzyarp::ForceTorque" filename="gz-sim-yarp-forcetorque-system">
      <yarpConfigurationFile>model://iCub/conf/FT/gazebo_icub_left_arm_ft.ini</yarpConfigurationFile>
    </plugin>
  </gazebo>
  <gazebo>
    <plugin name="gzyarp::ForceTorque" filename="gz-sim-yarp-forcetorque-system">
      <yarpConfigurationFile>model://iCub/conf/FT/gazebo_icub_right_leg_ft.ini</yarpConfigurationFile>
    </plugin>
  </gazebo>
  <gazebo>
    <plugin name="gzyarp::ForceTorque" filename="gz-sim-yarp-forcetorque-system">
      <yarpConfigurationFile>model://iCub/conf/FT/gazebo_icub_left_leg_ft.ini</yarpConfigurationFile>
    </plugin>
  </gazebo>
  <gazebo>
    <plugin name="gzyarp::ForceTorque" filename="gz-sim-yarp-forcetorque-system">
      <yarpConfigurationFile>model://iCub/conf/FT/gazebo_icub_right_foot_ft.ini</yarpConfigurationFile>
    </plugin>
  </gazebo>
  <gazebo>
    <plugin name="gzyarp::ForceTorque" filename="gz-sim-yarp-forcetorque-system">
      <yarpConfigurationFile>model://iCub/conf/FT/gazebo_icub_left_foot_ft.ini</yarpConfigurationFile>
    </plugin>
  </gazebo>
  <gazebo>
    <plugin name="gzyarp::Imu" filename="gz-sim-yarp-imu-system">
      <yarpConfigurationFile>model://iCub/conf/gazebo_icub_right_arm_inertial.ini</yarpConfigurationFile>
    </plugin>
  </gazebo>
  <gazebo>
    <plugin name="gzyarp::Imu" filename="gz-sim-yarp-imu-system">
      <yarpConfigurationFile>model://iCub/conf/gazebo_icub_left_arm_inertial.ini</yarpConfigurationFile>
    </plugin>
  </gazebo>
  <gazebo>
    <plugin name="gzyarp::Imu" filename="gz-sim-yarp-imu-system">
      <yarpConfigurationFile>model://iCub/conf/gazebo_icub_inertial.ini</yarpConfigurationFile>
    </plugin>
  </gazebo>
  <gazebo>
    <plugin name="iCub_yarp_gazebo_plugin_ACCpart" filename="libgazebo_yarp_distributedinertials.so">
      <yarpConfigurationFile>model://iCub/conf/MTB/gazebo_icub_left_leg_mtb.ini</yarpConfigurationFile>
    </plugin>
    <plugin name="iCub_yarp_gazebo_plugin_ACCpart" filename="libgazebo_yarp_distributedinertials.so">
      <yarpConfigurationFile>model://iCub/conf/MTB/gazebo_icub_right_leg_mtb.ini</yarpConfigurationFile>
    </plugin>
    <plugin name="iCub_yarp_gazebo_plugin_ACCpart" filename="libgazebo_yarp_distributedinertials.so">
      <yarpConfigurationFile>model://iCub/conf/MTB/gazebo_icub_left_arm_mtb.ini</yarpConfigurationFile>
    </plugin>
    <plugin name="iCub_yarp_gazebo_plugin_ACCpart" filename="libgazebo_yarp_distributedinertials.so">
      <yarpConfigurationFile>model://iCub/conf/MTB/gazebo_icub_right_arm_mtb.ini</yarpConfigurationFile>
    </plugin>
    <plugin name="iCub_yarp_gazebo_plugin_ACCpart" filename="libgazebo_yarp_distributedinertials.so">
      <yarpConfigurationFile>model://iCub/conf/MTB/gazebo_icub_torso_mtb.ini</yarpConfigurationFile>
    </plugin>
    <plugin name="controlboard_torso" filename="libgazebo_yarp_controlboard.so">
      <yarpConfigurationFile>model://iCub/conf/gazebo_icub_torso.ini</yarpConfigurationFile>
    </plugin>
    <plugin name="controlboard_head_without_eyes" filename="libgazebo_yarp_controlboard.so">
      <yarpConfigurationFile>model://iCub/conf/gazebo_icub_head_without_eyes.ini</yarpConfigurationFile>
    </plugin>
    <plugin name="controlboard_head" filename="libgazebo_yarp_controlboard.so">
      <yarpConfigurationFile>model://iCub/conf_models/gazebo_icub_eyes.ini</yarpConfigurationFile>
    </plugin>
    <plugin name="controlboard_left_arm_no_hand" filename="libgazebo_yarp_controlboard.so">
      <yarpConfigurationFile>model://iCub/conf/gazebo_icub_left_arm_no_hand_for_no_hand_model.ini</yarpConfigurationFile>
      <initialConfiguration>-0.52 0.52 0 0.785 0 0 0.0</initialConfiguration>
    </plugin>
    <plugin name="controlboard_right_arm_no_hand" filename="libgazebo_yarp_controlboard.so">
      <yarpConfigurationFile>model://iCub/conf/gazebo_icub_right_arm_no_hand_for_no_hand_model.ini</yarpConfigurationFile>
      <initialConfiguration>-0.52 0.52 0 0.785 0 0 0.0</initialConfiguration>
    </plugin>
    <plugin name="controlboard_right_leg" filename="libgazebo_yarp_controlboard.so">
      <yarpConfigurationFile>model://iCub/conf/gazebo_icub_right_leg.ini</yarpConfigurationFile>
    </plugin>
    <plugin name="controlboard_left_leg" filename="libgazebo_yarp_controlboard.so">
      <yarpConfigurationFile>model://iCub/conf/gazebo_icub_left_leg.ini</yarpConfigurationFile>
    </plugin>
    <plugin name="apply_external_wrench" filename="libgazebo_yarp_externalwrench.so">
      <robotNamefromConfigFile>model://iCub/conf/gazebo_icub_robotname.ini</robotNamefromConfigFile>
    </plugin>
  </gazebo>
  <gazebo reference="r_hip_pitch">
    <implicitSpringDamper>1</implicitSpringDamper>
  </gazebo>
  <gazebo reference="r_hip_roll">
    <implicitSpringDamper>1</implicitSpringDamper>
  </gazebo>
  <gazebo reference="r_hip_yaw">
    <implicitSpringDamper>1</implicitSpringDamper>
  </gazebo>
  <gazebo reference="r_knee">
    <implicitSpringDamper>1</implicitSpringDamper>
  </gazebo>
  <gazebo reference="r_ankle_pitch">
    <implicitSpringDamper>1</implicitSpringDamper>
  </gazebo>
  <gazebo reference="r_ankle_roll">
    <implicitSpringDamper>1</implicitSpringDamper>
  </gazebo>
  <gazebo reference="l_hip_pitch">
    <implicitSpringDamper>1</implicitSpringDamper>
  </gazebo>
  <gazebo reference="l_hip_roll">
    <implicitSpringDamper>1</implicitSpringDamper>
  </gazebo>
  <gazebo reference="l_hip_yaw">
    <implicitSpringDamper>1</implicitSpringDamper>
  </gazebo>
  <gazebo reference="l_knee">
    <implicitSpringDamper>1</implicitSpringDamper>
  </gazebo>
  <gazebo reference="l_ankle_pitch">
    <implicitSpringDamper>1</implicitSpringDamper>
  </gazebo>
  <gazebo reference="l_ankle_roll">
    <implicitSpringDamper>1</implicitSpringDamper>
  </gazebo>
  <gazebo reference="torso_pitch">
    <implicitSpringDamper>1</implicitSpringDamper>
  </gazebo>
  <gazebo reference="torso_roll">
    <implicitSpringDamper>1</implicitSpringDamper>
  </gazebo>
  <gazebo reference="torso_yaw">
    <implicitSpringDamper>1</implicitSpringDamper>
  </gazebo>
  <gazebo reference="r_shoulder_pitch">
    <implicitSpringDamper>1</implicitSpringDamper>
  </gazebo>
  <gazebo reference="r_shoulder_roll">
    <implicitSpringDamper>1</implicitSpringDamper>
  </gazebo>
  <gazebo reference="r_shoulder_yaw">
    <implicitSpringDamper>1</implicitSpringDamper>
  </gazebo>
  <gazebo reference="r_elbow">
    <implicitSpringDamper>1</implicitSpringDamper>
  </gazebo>
  <gazebo reference="r_wrist_prosup">
    <implicitSpringDamper>1</implicitSpringDamper>
  </gazebo>
  <gazebo reference="r_wrist_pitch">
    <implicitSpringDamper>1</implicitSpringDamper>
  </gazebo>
  <gazebo reference="r_wrist_yaw">
    <implicitSpringDamper>1</implicitSpringDamper>
  </gazebo>
  <gazebo reference="l_shoulder_pitch">
    <implicitSpringDamper>1</implicitSpringDamper>
  </gazebo>
  <gazebo reference="l_shoulder_roll">
    <implicitSpringDamper>1</implicitSpringDamper>
  </gazebo>
  <gazebo reference="l_shoulder_yaw">
    <implicitSpringDamper>1</implicitSpringDamper>
  </gazebo>
  <gazebo reference="l_elbow">
    <implicitSpringDamper>1</implicitSpringDamper>
  </gazebo>
  <gazebo reference="l_wrist_prosup">
    <implicitSpringDamper>1</implicitSpringDamper>
  </gazebo>
  <gazebo reference="l_wrist_pitch">
    <implicitSpringDamper>1</implicitSpringDamper>
  </gazebo>
  <gazebo reference="l_wrist_yaw">
    <implicitSpringDamper>1</implicitSpringDamper>
  </gazebo>
  <gazebo reference="neck_pitch">
    <implicitSpringDamper>1</implicitSpringDamper>
  </gazebo>
  <gazebo reference="neck_roll">
    <implicitSpringDamper>1</implicitSpringDamper>
  </gazebo>
  <gazebo reference="neck_yaw">
    <implicitSpringDamper>1</implicitSpringDamper>
  </gazebo>
  <gazebo>
    <plugin name="robotinterface" filename="libgazebo_yarp_robotinterface.so">
      <yarpRobotInterfaceConfigurationFile>model://iCub/conf_models/icub_with_eyes.xml</yarpRobotInterfaceConfigurationFile>
    </plugin>
  </gazebo>
  <gazebo>
    <plugin name="gzyarp::RobotInterface" filename="gz-sim-yarp-robotinterface-system">
      <yarpRobotInterfaceConfigurationFile>model://iCub/conf_models/icub_with_eyes.xml</yarpRobotInterfaceConfigurationFile>
    </plugin>
  </gazebo>
  <gazebo>
    <plugin filename="gz-sim-forcetorque-system" name="gz::sim::systems::ForceTorque"/>
  </gazebo>
  <gazebo>
    <plugin filename="gz-sim-imu-system" name="gz::sim::systems::Imu"/>
  </gazebo>
  <link name="root_link_imu_frame"/>
  <joint name="root_link_imu_frame_fixed_joint" type="fixed">
    <origin xyz="0.08515499999999998 -0.011000000000000022 -0.11230899999999999" rpy="-2.0943952105869323 0 -1.5707963267948963"/>
    <parent link="root_link"/>
    <child link="root_link_imu_frame"/>
  </joint>
  <gazebo reference="root_link">
    <sensor name="root_link_imu_acc" type="imu">
      <always_on>1</always_on>
      <update_rate>400</update_rate>
      <pose>0.08515499999999998 -0.011000000000000022 -0.11230899999999999 -2.0943952105869323 -3.885780586188048e-16 -1.5707963267948963</pose>
      <plugin name="root_link_xsens_imu_plugin" filename="libgazebo_yarp_imu.so">
        <yarpConfigurationFile>model://iCub/conf/gazebo_icub_xsens_inertial.ini</yarpConfigurationFile>
      </plugin>
    </sensor>
  </gazebo>
  <gazebo>
    <plugin name="gzyarp::Imu" filename="gz-sim-yarp-imu-system">
      <yarpConfigurationFile>model://iCub/conf/gazebo_icub_xsens_inertial.ini</yarpConfigurationFile>
    </plugin>
  </gazebo>
  <gazebo>
    <pose>0.000000 0.000000 0.630000 0.000000 -1.900000 -3.140000</pose>
  </gazebo>
  <gazebo reference="l_arm_ft_sensor">
    <sensor name="l_arm_ft" type="force_torque">
      <always_on>1</always_on>
      <update_rate>100</update_rate>
      <force_torque>
        <frame>child</frame>
        <measure_direction>child_to_parent</measure_direction>
      </force_torque>
      <pose>0 0 0 0 -0 0 </pose>
      <plugin name="left_arm_ft_plugin" filename="libgazebo_yarp_forcetorque.so">
        <yarpConfigurationFile>model://iCub/conf/FT/gazebo_icub_left_arm_ft.ini</yarpConfigurationFile>
      </plugin>
    </sensor>
  </gazebo>
  <sensor name="l_arm_ft" type="force_torque">
    <parent joint="l_arm_ft_sensor"/>
    <force_torque>
      <frame>child</frame>
      <measure_direction>child_to_parent</measure_direction>
    </force_torque>
    <origin rpy="0 -0 0 " xyz="0 0 0"/>
  </sensor>
  <gazebo reference="l_foot_ft_sensor">
    <sensor name="l_foot_ft" type="force_torque">
      <always_on>1</always_on>
      <update_rate>100</update_rate>
      <force_torque>
        <frame>sensor</frame>
        <measure_direction>child_to_parent</measure_direction>
      </force_torque>
      <pose>0 0 0 0 -0 0 </pose>
      <plugin name="left_foot_ft_plugin" filename="libgazebo_yarp_forcetorque.so">
        <yarpConfigurationFile>model://iCub/conf/FT/gazebo_icub_left_foot_ft.ini</yarpConfigurationFile>
      </plugin>
    </sensor>
  </gazebo>
  <sensor name="l_foot_ft" type="force_torque">
    <parent joint="l_foot_ft_sensor"/>
    <force_torque>
      <frame>sensor</frame>
      <measure_direction>child_to_parent</measure_direction>
    </force_torque>
    <origin rpy="0 -0 0 " xyz="0 0 0"/>
  </sensor>
  <gazebo reference="l_leg_ft_sensor">
    <sensor name="l_leg_ft" type="force_torque">
      <always_on>1</always_on>
      <update_rate>100</update_rate>
      <force_torque>
        <frame>sensor</frame>
        <measure_direction>child_to_parent</measure_direction>
      </force_torque>
      <pose>0 0 0 0 -0 0 </pose>
      <plugin name="left_leg_ft_plugin" filename="libgazebo_yarp_forcetorque.so">
        <yarpConfigurationFile>model://iCub/conf/FT/gazebo_icub_left_leg_ft.ini</yarpConfigurationFile>
      </plugin>
    </sensor>
  </gazebo>
  <sensor name="l_leg_ft" type="force_torque">
    <parent joint="l_leg_ft_sensor"/>
    <force_torque>
      <frame>sensor</frame>
      <measure_direction>child_to_parent</measure_direction>
    </force_torque>
    <origin rpy="0 -0 0 " xyz="0 0 0"/>
  </sensor>
  <gazebo reference="r_arm_ft_sensor">
    <sensor name="r_arm_ft" type="force_torque">
      <always_on>1</always_on>
      <update_rate>100</update_rate>
      <force_torque>
        <frame>child</frame>
        <measure_direction>child_to_parent</measure_direction>
      </force_torque>
      <pose>0 0 0 0 -0 0 </pose>
      <plugin name="right_arm_ft_plugin" filename="libgazebo_yarp_forcetorque.so">
        <yarpConfigurationFile>model://iCub/conf/FT/gazebo_icub_right_arm_ft.ini</yarpConfigurationFile>
      </plugin>
    </sensor>
  </gazebo>
  <sensor name="r_arm_ft" type="force_torque">
    <parent joint="r_arm_ft_sensor"/>
    <force_torque>
      <frame>child</frame>
      <measure_direction>child_to_parent</measure_direction>
    </force_torque>
    <origin rpy="0 -0 0 " xyz="0 0 0"/>
  </sensor>
  <gazebo reference="r_foot_ft_sensor">
    <sensor name="r_foot_ft" type="force_torque">
      <always_on>1</always_on>
      <update_rate>100</update_rate>
      <force_torque>
        <frame>sensor</frame>
        <measure_direction>child_to_parent</measure_direction>
      </force_torque>
      <pose>0 0 0 0 -0 0 </pose>
      <plugin name="right_foot_ft_plugin" filename="libgazebo_yarp_forcetorque.so">
        <yarpConfigurationFile>model://iCub/conf/FT/gazebo_icub_right_foot_ft.ini</yarpConfigurationFile>
      </plugin>
    </sensor>
  </gazebo>
  <sensor name="r_foot_ft" type="force_torque">
    <parent joint="r_foot_ft_sensor"/>
    <force_torque>
      <frame>sensor</frame>
      <measure_direction>child_to_parent</measure_direction>
    </force_torque>
    <origin rpy="0 -0 0 " xyz="0 0 0"/>
  </sensor>
  <gazebo reference="r_leg_ft_sensor">
    <sensor name="r_leg_ft" type="force_torque">
      <always_on>1</always_on>
      <update_rate>100</update_rate>
      <force_torque>
        <frame>sensor</frame>
        <measure_direction>child_to_parent</measure_direction>
      </force_torque>
      <pose>0 0 0 0 -0 0 </pose>
      <plugin name="right_leg_ft_plugin" filename="libgazebo_yarp_forcetorque.so">
        <yarpConfigurationFile>model://iCub/conf/FT/gazebo_icub_right_leg_ft.ini</yarpConfigurationFile>
      </plugin>
    </sensor>
  </gazebo>
  <sensor name="r_leg_ft" type="force_torque">
    <parent joint="r_leg_ft_sensor"/>
    <force_torque>
      <frame>sensor</frame>
      <measure_direction>child_to_parent</measure_direction>
    </force_torque>
    <origin rpy="0 -0 0 " xyz="0 0 0"/>
  </sensor>
  <gazebo reference="head">
    <sensor name="head_imu_0" type="imu">
      <always_on>1</always_on>
      <update_rate>100.000000</update_rate>
      <pose>0.0055 -0.00345 0.168982 3.14159 -0 3.14159 </pose>
      <plugin name="iCub_yarp_gazebo_plugin_IMU" filename="libgazebo_yarp_imu.so">
        <yarpConfigurationFile>model://iCub/conf/gazebo_icub_inertial.ini</yarpConfigurationFile>
      </plugin>
    </sensor>
  </gazebo>
  <sensor name="head_imu_0" type="accelerometer">
    <parent link="head"/>
    <origin rpy="3.14159 -0 3.14159 " xyz="0.0055 -0.00345 0.168982"/>
  </sensor>
  <gazebo reference="l_shoulder_3">
    <sensor name="l_arm_ft_imu" type="imu">
      <always_on>1</always_on>
      <update_rate>100.000000</update_rate>
      <pose>0 0 0 -5.2142e-16 -0 -5.42342e-31 </pose>
      <plugin name="iCub_yarp_gazebo_plugin_IMU" filename="libgazebo_yarp_imu.so">
        <yarpConfigurationFile>model://iCub/conf/gazebo_icub_left_arm_inertial.ini</yarpConfigurationFile>
      </plugin>
    </sensor>
  </gazebo>
  <sensor name="l_arm_ft_imu" type="accelerometer">
    <parent link="l_shoulder_3"/>
    <origin rpy="-5.2142e-16 -0 -5.42342e-31 " xyz="0 0 0"/>
  </sensor>
  <gazebo reference="r_shoulder_3">
    <sensor name="r_arm_ft_imu" type="imu">
      <always_on>1</always_on>
      <update_rate>100.000000</update_rate>
      <pose>0 0 0 2.46519e-32 -0 -1.2326e-32 </pose>
      <plugin name="iCub_yarp_gazebo_plugin_IMU" filename="libgazebo_yarp_imu.so">
        <yarpConfigurationFile>model://iCub/conf/gazebo_icub_right_arm_inertial.ini</yarpConfigurationFile>
      </plugin>
    </sensor>
  </gazebo>
  <sensor name="r_arm_ft_imu" type="accelerometer">
    <parent link="r_shoulder_3"/>
    <origin rpy="2.46519e-32 -0 -1.2326e-32 " xyz="0 0 0"/>
  </sensor>
  <gazebo reference="root_link">
    <sensor name="root_link_ems_acc_eb5" type="imu">
      <always_on>1</always_on>
      <update_rate>100.000000</update_rate>
      <pose>0.0493308 -0.0125771 -0.115691 -3.14159 1.29154 3.14159 </pose>
      <plugin name="iCub_yarp_gazebo_plugin_ACC" filename="libgazebo_yarp_inertial.so"/>
    </sensor>
  </gazebo>
  <sensor name="root_link_ems_acc_eb5" type="accelerometer">
    <parent link="root_link"/>
    <origin rpy="-3.14159 1.29154 3.14159 " xyz="0.0493308 -0.0125771 -0.115691"/>
  </sensor>
  <gazebo reference="root_link">
    <sensor name="root_link_ems_gyro_eb5" type="gyroscope">
      <always_on>1</always_on>
      <update_rate>100.000000</update_rate>
      <pose>0.0493308 -0.0125771 -0.115691 -3.14159 1.29154 3.14159 </pose>
    </sensor>
  </gazebo>
  <sensor name="root_link_ems_gyro_eb5" type="gyroscope">
    <parent link="root_link"/>
    <origin rpy="-3.14159 1.29154 3.14159 " xyz="0.0493308 -0.0125771 -0.115691"/>
  </sensor>
  <gazebo reference="chest">
    <sensor name="chest_ems_acc_eb1" type="imu">
      <always_on>1</always_on>
      <update_rate>100.000000</update_rate>
      <pose>-0.0647855 0.0647091 -0.114543 1.5708 0.00028267 -2.87979 </pose>
      <plugin name="iCub_yarp_gazebo_plugin_ACC" filename="libgazebo_yarp_inertial.so"/>
    </sensor>
  </gazebo>
  <sensor name="chest_ems_acc_eb1" type="accelerometer">
    <parent link="chest"/>
    <origin rpy="1.5708 0.00028267 -2.87979 " xyz="-0.0647855 0.0647091 -0.114543"/>
  </sensor>
  <gazebo reference="chest">
    <sensor name="chest_ems_gyro_eb1" type="gyroscope">
      <always_on>1</always_on>
      <update_rate>100.000000</update_rate>
      <pose>-0.0692016 0.0635258 -0.115048 1.5708 0.00028267 -2.87979 </pose>
    </sensor>
  </gazebo>
  <sensor name="chest_ems_gyro_eb1" type="gyroscope">
    <parent link="chest"/>
    <origin rpy="1.5708 0.00028267 -2.87979 " xyz="-0.0692016 0.0635258 -0.115048"/>
  </sensor>
  <gazebo reference="chest">
    <sensor name="chest_ems_acc_eb2" type="imu">
      <always_on>1</always_on>
      <update_rate>100.000000</update_rate>
      <pose>-0.0204533 0.0641645 -0.138563 -1.5708 8.03342e-06 0.261799 </pose>
      <plugin name="iCub_yarp_gazebo_plugin_ACC" filename="libgazebo_yarp_inertial.so"/>
    </sensor>
  </gazebo>
  <sensor name="chest_ems_acc_eb2" type="accelerometer">
    <parent link="chest"/>
    <origin rpy="-1.5708 8.03342e-06 0.261799 " xyz="-0.0204533 0.0641645 -0.138563"/>
  </sensor>
  <gazebo reference="chest">
    <sensor name="chest_ems_gyro_eb2" type="gyroscope">
      <always_on>1</always_on>
      <update_rate>100.000000</update_rate>
      <pose>-0.0160371 0.0653479 -0.138059 -1.5708 8.03342e-06 0.261799 </pose>
    </sensor>
  </gazebo>
  <sensor name="chest_ems_gyro_eb2" type="gyroscope">
    <parent link="chest"/>
    <origin rpy="-1.5708 8.03342e-06 0.261799 " xyz="-0.0160371 0.0653479 -0.138059"/>
  </sensor>
  <gazebo reference="chest">
    <sensor name="chest_ems_acc_eb3" type="imu">
      <always_on>1</always_on>
      <update_rate>100.000000</update_rate>
      <pose>0.0230588 0.0758982 -0.114519 1.57039 -0.000298596 2.88049 </pose>
      <plugin name="iCub_yarp_gazebo_plugin_ACC" filename="libgazebo_yarp_inertial.so"/>
    </sensor>
  </gazebo>
  <sensor name="chest_ems_acc_eb3" type="accelerometer">
    <parent link="chest"/>
    <origin rpy="1.57039 -0.000298596 2.88049 " xyz="0.0230588 0.0758982 -0.114519"/>
  </sensor>
  <gazebo reference="chest">
    <sensor name="chest_ems_gyro_eb3" type="gyroscope">
      <always_on>1</always_on>
      <update_rate>100.000000</update_rate>
      <pose>0.0186417 0.0770787 -0.115021 1.57039 -0.000298596 2.88049 </pose>
    </sensor>
  </gazebo>
  <sensor name="chest_ems_gyro_eb3" type="gyroscope">
    <parent link="chest"/>
    <origin rpy="1.57039 -0.000298596 2.88049 " xyz="0.0186417 0.0770787 -0.115021"/>
  </sensor>
  <gazebo reference="chest">
    <sensor name="chest_ems_acc_eb4" type="imu">
      <always_on>1</always_on>
      <update_rate>100.000000</update_rate>
      <pose>0.0621621 0.0529887 -0.138563 -1.5708 8.03044e-06 -0.261799 </pose>
      <plugin name="iCub_yarp_gazebo_plugin_ACC" filename="libgazebo_yarp_inertial.so"/>
    </sensor>
  </gazebo>
  <sensor name="chest_ems_acc_eb4" type="accelerometer">
    <parent link="chest"/>
    <origin rpy="-1.5708 8.03044e-06 -0.261799 " xyz="0.0621621 0.0529887 -0.138563"/>
  </sensor>
  <gazebo reference="chest">
    <sensor name="chest_ems_gyro_eb4" type="gyroscope">
      <always_on>1</always_on>
      <update_rate>100.000000</update_rate>
      <pose>0.0665784 0.0518054 -0.138059 -1.5708 8.03044e-06 -0.261799 </pose>
    </sensor>
  </gazebo>
  <sensor name="chest_ems_gyro_eb4" type="gyroscope">
    <parent link="chest"/>
    <origin rpy="-1.5708 8.03044e-06 -0.261799 " xyz="0.0665784 0.0518054 -0.138059"/>
  </sensor>
  <gazebo reference="chest">
    <sensor name="chest_mtb_acc_0b7" type="imu">
      <always_on>1</always_on>
      <update_rate>100.000000</update_rate>
      <pose>0 0 0 0 -0 0 </pose>
      <plugin name="iCub_yarp_gazebo_plugin_ACC" filename="libgazebo_yarp_inertial.so"/>
    </sensor>
  </gazebo>
  <sensor name="chest_mtb_acc_0b7" type="accelerometer">
    <parent link="chest"/>
    <origin rpy="0 -0 0 " xyz="0 0 0"/>
  </sensor>
  <gazebo reference="chest">
    <sensor name="chest_mtb_acc_0b8" type="imu">
      <always_on>1</always_on>
      <update_rate>100.000000</update_rate>
      <pose>0 0 0 0 -0 0 </pose>
      <plugin name="iCub_yarp_gazebo_plugin_ACC" filename="libgazebo_yarp_inertial.so"/>
    </sensor>
  </gazebo>
  <sensor name="chest_mtb_acc_0b8" type="accelerometer">
    <parent link="chest"/>
    <origin rpy="0 -0 0 " xyz="0 0 0"/>
  </sensor>
  <gazebo reference="chest">
    <sensor name="chest_mtb_acc_0b9" type="imu">
      <always_on>1</always_on>
      <update_rate>100.000000</update_rate>
      <pose>0 0 0 0 -0 0 </pose>
      <plugin name="iCub_yarp_gazebo_plugin_ACC" filename="libgazebo_yarp_inertial.so"/>
    </sensor>
  </gazebo>
  <sensor name="chest_mtb_acc_0b9" type="accelerometer">
    <parent link="chest"/>
    <origin rpy="0 -0 0 " xyz="0 0 0"/>
  </sensor>
  <gazebo reference="chest">
    <sensor name="chest_mtb_acc_0b10" type="imu">
      <always_on>1</always_on>
      <update_rate>100.000000</update_rate>
      <pose>0 0 0 0 -0 0 </pose>
      <plugin name="iCub_yarp_gazebo_plugin_ACC" filename="libgazebo_yarp_inertial.so"/>
    </sensor>
  </gazebo>
  <sensor name="chest_mtb_acc_0b10" type="accelerometer">
    <parent link="chest"/>
    <origin rpy="0 -0 0 " xyz="0 0 0"/>
  </sensor>
  <gazebo reference="r_upper_arm">
    <sensor name="r_upper_arm_mtb_acc_2b10" type="imu">
      <always_on>1</always_on>
      <update_rate>100.000000</update_rate>
      <pose>-0.222021 0.029588 0.0323461 -2.02982 0.261811 -5.7405e-06 </pose>
      <plugin name="iCub_yarp_gazebo_plugin_ACC" filename="libgazebo_yarp_inertial.so"/>
    </sensor>
  </gazebo>
  <sensor name="r_upper_arm_mtb_acc_2b10" type="accelerometer">
    <parent link="r_upper_arm"/>
    <origin rpy="-2.02982 0.261811 -5.7405e-06 " xyz="-0.222021 0.029588 0.0323461"/>
  </sensor>
  <gazebo reference="r_upper_arm">
    <sensor name="r_upper_arm_mtb_acc_2b11" type="imu">
      <always_on>1</always_on>
      <update_rate>100.000000</update_rate>
      <pose>-0.267444 0.0286799 0.0426149 2.02985 -0.262062 3.14146 </pose>
      <plugin name="iCub_yarp_gazebo_plugin_ACC" filename="libgazebo_yarp_inertial.so"/>
    </sensor>
  </gazebo>
  <sensor name="r_upper_arm_mtb_acc_2b11" type="accelerometer">
    <parent link="r_upper_arm"/>
    <origin rpy="2.02985 -0.262062 3.14146 " xyz="-0.267444 0.0286799 0.0426149"/>
  </sensor>
  <gazebo reference="r_upper_arm">
    <sensor name="r_upper_arm_mtb_acc_2b12" type="imu">
      <always_on>1</always_on>
      <update_rate>100.000000</update_rate>
      <pose>-0.198797 0.0286806 0.0242223 2.02982 -0.261799 -3.14159 </pose>
      <plugin name="iCub_yarp_gazebo_plugin_ACC" filename="libgazebo_yarp_inertial.so"/>
    </sensor>
  </gazebo>
  <sensor name="r_upper_arm_mtb_acc_2b12" type="accelerometer">
    <parent link="r_upper_arm"/>
    <origin rpy="2.02982 -0.261799 -3.14159 " xyz="-0.198797 0.0286806 0.0242223"/>
  </sensor>
  <gazebo reference="r_upper_arm">
    <sensor name="r_upper_arm_mtb_acc_2b13" type="imu">
      <always_on>1</always_on>
      <update_rate>100.000000</update_rate>
      <pose>-0.169717 0.0283503 0.0719717 0.410572 0.864711 1.89079 </pose>
      <plugin name="iCub_yarp_gazebo_plugin_ACC" filename="libgazebo_yarp_inertial.so"/>
    </sensor>
  </gazebo>
  <sensor name="r_upper_arm_mtb_acc_2b13" type="accelerometer">
    <parent link="r_upper_arm"/>
    <origin rpy="0.410572 0.864711 1.89079 " xyz="-0.169717 0.0283503 0.0719717"/>
  </sensor>
  <gazebo reference="r_forearm">
    <sensor name="r_forearm_mtb_acc_2b7" type="imu">
      <always_on>1</always_on>
      <update_rate>100.000000</update_rate>
      <pose>-0.37376 0.0054968 0.0685027 0.2618 0.000370413 1.57126 </pose>
      <plugin name="iCub_yarp_gazebo_plugin_ACC" filename="libgazebo_yarp_inertial.so"/>
    </sensor>
  </gazebo>
  <sensor name="r_forearm_mtb_acc_2b7" type="accelerometer">
    <parent link="r_forearm"/>
    <origin rpy="0.2618 0.000370413 1.57126 " xyz="-0.37376 0.0054968 0.0685027"/>
  </sensor>
  <gazebo reference="r_forearm">
    <sensor name="r_forearm_mtb_acc_2b8" type="imu">
      <always_on>1</always_on>
      <update_rate>100.000000</update_rate>
      <pose>-0.348306 0.0157856 0.120303 -0.661144 0.147826 0.0920701 </pose>
      <plugin name="iCub_yarp_gazebo_plugin_ACC" filename="libgazebo_yarp_inertial.so"/>
    </sensor>
  </gazebo>
  <sensor name="r_forearm_mtb_acc_2b8" type="accelerometer">
    <parent link="r_forearm"/>
    <origin rpy="-0.661144 0.147826 0.0920701 " xyz="-0.348306 0.0157856 0.120303"/>
  </sensor>
  <gazebo reference="r_forearm">
    <sensor name="r_forearm_mtb_acc_2b9" type="imu">
      <always_on>1</always_on>
      <update_rate>100.000000</update_rate>
      <pose>-0.318525 0.0279236 0.0663016 -1.76683 0.261192 0.054048 </pose>
      <plugin name="iCub_yarp_gazebo_plugin_ACC" filename="libgazebo_yarp_inertial.so"/>
    </sensor>
  </gazebo>
  <sensor name="r_forearm_mtb_acc_2b9" type="accelerometer">
    <parent link="r_forearm"/>
    <origin rpy="-1.76683 0.261192 0.054048 " xyz="-0.318525 0.0279236 0.0663016"/>
  </sensor>
  <gazebo reference="l_upper_arm">
    <sensor name="l_upper_arm_mtb_acc_1b10" type="imu">
      <always_on>1</always_on>
      <update_rate>100.000000</update_rate>
      <pose>0.222496 0.0286806 0.0305727 -2.02978 -0.261537 -0.000134327 </pose>
      <plugin name="iCub_yarp_gazebo_plugin_ACC" filename="libgazebo_yarp_inertial.so"/>
    </sensor>
  </gazebo>
  <sensor name="l_upper_arm_mtb_acc_1b10" type="accelerometer">
    <parent link="l_upper_arm"/>
    <origin rpy="-2.02978 -0.261537 -0.000134327 " xyz="0.222496 0.0286806 0.0305727"/>
  </sensor>
  <gazebo reference="l_upper_arm">
    <sensor name="l_upper_arm_mtb_acc_1b11" type="imu">
      <always_on>1</always_on>
      <update_rate>100.000000</update_rate>
      <pose>0.266968 0.0295886 0.0443909 -2.02978 -0.261537 -0.000134327 </pose>
      <plugin name="iCub_yarp_gazebo_plugin_ACC" filename="libgazebo_yarp_inertial.so"/>
    </sensor>
  </gazebo>
  <sensor name="l_upper_arm_mtb_acc_1b11" type="accelerometer">
    <parent link="l_upper_arm"/>
    <origin rpy="-2.02978 -0.261537 -0.000134327 " xyz="0.266968 0.0295886 0.0443909"/>
  </sensor>
  <gazebo reference="l_upper_arm">
    <sensor name="l_upper_arm_mtb_acc_1b12" type="imu">
      <always_on>1</always_on>
      <update_rate>100.000000</update_rate>
      <pose>0.198322 0.029588 0.0259957 -2.02982 -0.261788 -5.74046e-06 </pose>
      <plugin name="iCub_yarp_gazebo_plugin_ACC" filename="libgazebo_yarp_inertial.so"/>
    </sensor>
  </gazebo>
  <sensor name="l_upper_arm_mtb_acc_1b12" type="accelerometer">
    <parent link="l_upper_arm"/>
    <origin rpy="-2.02982 -0.261788 -5.74046e-06 " xyz="0.198322 0.029588 0.0259957"/>
  </sensor>
  <gazebo reference="l_upper_arm">
    <sensor name="l_upper_arm_mtb_acc_1b13" type="imu">
      <always_on>1</always_on>
      <update_rate>100.000000</update_rate>
      <pose>0.171694 0.0283507 0.0725009 -0.410111 0.864882 1.25141 </pose>
      <plugin name="iCub_yarp_gazebo_plugin_ACC" filename="libgazebo_yarp_inertial.so"/>
    </sensor>
  </gazebo>
  <sensor name="l_upper_arm_mtb_acc_1b13" type="accelerometer">
    <parent link="l_upper_arm"/>
    <origin rpy="-0.410111 0.864882 1.25141 " xyz="0.171694 0.0283507 0.0725009"/>
  </sensor>
  <gazebo reference="l_forearm">
    <sensor name="l_forearm_mtb_acc_1b7" type="imu">
      <always_on>1</always_on>
      <update_rate>100.000000</update_rate>
      <pose>0.37376 -0.00548273 0.0685027 0.2618 0.000370413 -1.57033 </pose>
      <plugin name="iCub_yarp_gazebo_plugin_ACC" filename="libgazebo_yarp_inertial.so"/>
    </sensor>
  </gazebo>
  <sensor name="l_forearm_mtb_acc_1b7" type="accelerometer">
    <parent link="l_forearm"/>
    <origin rpy="0.2618 0.000370413 -1.57033 " xyz="0.37376 -0.00548273 0.0685027"/>
  </sensor>
  <gazebo reference="l_forearm">
    <sensor name="l_forearm_mtb_acc_1b8" type="imu">
      <always_on>1</always_on>
      <update_rate>100.000000</update_rate>
      <pose>0.348311 -0.018028 0.120301 -0.661144 0.147826 -3.04952 </pose>
      <plugin name="iCub_yarp_gazebo_plugin_ACC" filename="libgazebo_yarp_inertial.so"/>
    </sensor>
  </gazebo>
  <sensor name="l_forearm_mtb_acc_1b8" type="accelerometer">
    <parent link="l_forearm"/>
    <origin rpy="-0.661144 0.147826 -3.04952 " xyz="0.348311 -0.018028 0.120301"/>
  </sensor>
  <gazebo reference="l_forearm">
    <sensor name="l_forearm_mtb_acc_1b9" type="imu">
      <always_on>1</always_on>
      <update_rate>100.000000</update_rate>
      <pose>0.318986 0.0256565 0.0644332 1.76682 0.2611 3.08753 </pose>
      <plugin name="iCub_yarp_gazebo_plugin_ACC" filename="libgazebo_yarp_inertial.so"/>
    </sensor>
  </gazebo>
  <sensor name="l_forearm_mtb_acc_1b9" type="accelerometer">
    <parent link="l_forearm"/>
    <origin rpy="1.76682 0.2611 3.08753 " xyz="0.318986 0.0256565 0.0644332"/>
  </sensor>
  <gazebo reference="r_upper_leg">
    <sensor name="r_upper_leg_ems_acc_eb8" type="imu">
      <always_on>1</always_on>
      <update_rate>100.000000</update_rate>
      <pose>-0.0125751 0.0404072 -0.040227 0 1.5708 -1.5708 </pose>
      <plugin name="iCub_yarp_gazebo_plugin_ACC" filename="libgazebo_yarp_inertial.so"/>
    </sensor>
  </gazebo>
  <sensor name="r_upper_leg_ems_acc_eb8" type="accelerometer">
    <parent link="r_upper_leg"/>
    <origin rpy="0 1.5708 -1.5708 " xyz="-0.0125751 0.0404072 -0.040227"/>
  </sensor>
  <gazebo reference="r_upper_leg">
    <sensor name="r_upper_leg_ems_acc_eb11" type="imu">
      <always_on>1</always_on>
      <update_rate>100.000000</update_rate>
      <pose>-0.0125771 -0.0404072 -0.083407 0 1.5708 -1.5708 </pose>
      <plugin name="iCub_yarp_gazebo_plugin_ACC" filename="libgazebo_yarp_inertial.so"/>
    </sensor>
  </gazebo>
  <sensor name="r_upper_leg_ems_acc_eb11" type="accelerometer">
    <parent link="r_upper_leg"/>
    <origin rpy="0 1.5708 -1.5708 " xyz="-0.0125771 -0.0404072 -0.083407"/>
  </sensor>
  <gazebo reference="r_upper_leg">
    <sensor name="r_upper_leg_ems_gyro_eb8" type="gyroscope">
      <always_on>1</always_on>
      <update_rate>100.000000</update_rate>
      <pose>-0.013079 0.0404072 -0.035655 0 1.5708 -1.5708 </pose>
    </sensor>
  </gazebo>
  <sensor name="r_upper_leg_ems_gyro_eb8" type="gyroscope">
    <parent link="r_upper_leg"/>
    <origin rpy="0 1.5708 -1.5708 " xyz="-0.013079 0.0404072 -0.035655"/>
  </sensor>
  <gazebo reference="r_upper_leg">
    <sensor name="r_upper_leg_ems_gyro_eb11" type="gyroscope">
      <always_on>1</always_on>
      <update_rate>100.000000</update_rate>
      <pose>-0.013081 -0.0404072 -0.087979 0 1.5708 -1.5708 </pose>
    </sensor>
  </gazebo>
  <sensor name="r_upper_leg_ems_gyro_eb11" type="gyroscope">
    <parent link="r_upper_leg"/>
    <origin rpy="0 1.5708 -1.5708 " xyz="-0.013081 -0.0404072 -0.087979"/>
  </sensor>
  <gazebo reference="r_upper_leg">
    <sensor name="r_upper_leg_mtb_acc_11b1" type="imu">
      <always_on>1</always_on>
      <update_rate>100.000000</update_rate>
      <pose>0.0435886 -0.0301953 0.0489407 2.52671 -1.57044 -0.222873 </pose>
      <plugin name="iCub_yarp_gazebo_plugin_ACC" filename="libgazebo_yarp_inertial.so"/>
    </sensor>
  </gazebo>
  <sensor name="r_upper_leg_mtb_acc_11b1" type="accelerometer">
    <parent link="r_upper_leg"/>
    <origin rpy="2.52671 -1.57044 -0.222873 " xyz="0.0435886 -0.0301953 0.0489407"/>
  </sensor>
  <gazebo reference="r_upper_leg">
    <sensor name="r_upper_leg_mtb_acc_11b2" type="imu">
      <always_on>1</always_on>
      <update_rate>100.000000</update_rate>
      <pose>0.0539467 -0.00640645 0.0390562 -3.1294 -1.57038 -0.27399 </pose>
      <plugin name="iCub_yarp_gazebo_plugin_ACC" filename="libgazebo_yarp_inertial.so"/>
    </sensor>
  </gazebo>
  <sensor name="r_upper_leg_mtb_acc_11b2" type="accelerometer">
    <parent link="r_upper_leg"/>
    <origin rpy="-3.1294 -1.57038 -0.27399 " xyz="0.0539467 -0.00640645 0.0390562"/>
  </sensor>
  <gazebo reference="r_upper_leg">
    <sensor name="r_upper_leg_mtb_acc_11b3" type="imu">
      <always_on>1</always_on>
      <update_rate>100.000000</update_rate>
      <pose>0.0538313 -0.0130214 0.00398628 -2.87733 -1.57035 -0.264266 </pose>
      <plugin name="iCub_yarp_gazebo_plugin_ACC" filename="libgazebo_yarp_inertial.so"/>
    </sensor>
  </gazebo>
  <sensor name="r_upper_leg_mtb_acc_11b3" type="accelerometer">
    <parent link="r_upper_leg"/>
    <origin rpy="-2.87733 -1.57035 -0.264266 " xyz="0.0538313 -0.0130214 0.00398628"/>
  </sensor>
  <gazebo reference="r_upper_leg">
    <sensor name="r_upper_leg_mtb_acc_11b4" type="imu">
      <always_on>1</always_on>
      <update_rate>100.000000</update_rate>
      <pose>0.032272 0.0422675 -0.00504447 -1.87391 -1.57026 -0.0808589 </pose>
      <plugin name="iCub_yarp_gazebo_plugin_ACC" filename="libgazebo_yarp_inertial.so"/>
    </sensor>
  </gazebo>
  <sensor name="r_upper_leg_mtb_acc_11b4" type="accelerometer">
    <parent link="r_upper_leg"/>
    <origin rpy="-1.87391 -1.57026 -0.0808589 " xyz="0.032272 0.0422675 -0.00504447"/>
  </sensor>
  <gazebo reference="r_upper_leg">
    <sensor name="r_upper_leg_mtb_acc_11b5" type="imu">
      <always_on>1</always_on>
      <update_rate>100.000000</update_rate>
      <pose>0.0538313 0.0164786 0.00398628 -2.87733 -1.57035 -0.264266 </pose>
      <plugin name="iCub_yarp_gazebo_plugin_ACC" filename="libgazebo_yarp_inertial.so"/>
    </sensor>
  </gazebo>
  <sensor name="r_upper_leg_mtb_acc_11b5" type="accelerometer">
    <parent link="r_upper_leg"/>
    <origin rpy="-2.87733 -1.57035 -0.264266 " xyz="0.0538313 0.0164786 0.00398628"/>
  </sensor>
  <gazebo reference="r_upper_leg">
    <sensor name="r_upper_leg_mtb_acc_11b6" type="imu">
      <always_on>1</always_on>
      <update_rate>100.000000</update_rate>
      <pose>-0.0437518 -0.0157594 -0.026565 -8.43385e-12 1.57037 -3.14159 </pose>
      <plugin name="iCub_yarp_gazebo_plugin_ACC" filename="libgazebo_yarp_inertial.so"/>
    </sensor>
  </gazebo>
  <sensor name="r_upper_leg_mtb_acc_11b6" type="accelerometer">
    <parent link="r_upper_leg"/>
    <origin rpy="-8.43385e-12 1.57037 -3.14159 " xyz="-0.0437518 -0.0157594 -0.026565"/>
  </sensor>
  <gazebo reference="r_upper_leg">
    <sensor name="r_upper_leg_mtb_acc_11b7" type="imu">
      <always_on>1</always_on>
      <update_rate>100.000000</update_rate>
      <pose>-0.0437518 0.0162386 -0.0265652 0.264266 1.57035 -2.87733 </pose>
      <plugin name="iCub_yarp_gazebo_plugin_ACC" filename="libgazebo_yarp_inertial.so"/>
    </sensor>
  </gazebo>
  <sensor name="r_upper_leg_mtb_acc_11b7" type="accelerometer">
    <parent link="r_upper_leg"/>
    <origin rpy="0.264266 1.57035 -2.87733 " xyz="-0.0437518 0.0162386 -0.0265652"/>
  </sensor>
  <gazebo reference="r_lower_leg">
    <sensor name="r_lower_leg_ems_acc_eb9" type="imu">
      <always_on>1</always_on>
      <update_rate>100.000000</update_rate>
      <pose>0.0435138 0.0138396 -0.0927643 -3.14159 -1.35263 1.93219e-14 </pose>
      <plugin name="iCub_yarp_gazebo_plugin_ACC" filename="libgazebo_yarp_inertial.so"/>
    </sensor>
  </gazebo>
  <sensor name="r_lower_leg_ems_acc_eb9" type="accelerometer">
    <parent link="r_lower_leg"/>
    <origin rpy="-3.14159 -1.35263 1.93219e-14 " xyz="0.0435138 0.0138396 -0.0927643"/>
  </sensor>
  <gazebo reference="r_lower_leg">
    <sensor name="r_lower_leg_ems_gyro_eb9" type="gyroscope">
      <always_on>1</always_on>
      <update_rate>100.000000</update_rate>
      <pose>0.0445033 0.0143435 -0.0883006 -3.14159 -1.35263 1.93219e-14 </pose>
    </sensor>
  </gazebo>
  <sensor name="r_lower_leg_ems_gyro_eb9" type="gyroscope">
    <parent link="r_lower_leg"/>
    <origin rpy="-3.14159 -1.35263 1.93219e-14 " xyz="0.0445033 0.0143435 -0.0883006"/>
  </sensor>
  <gazebo reference="r_lower_leg">
    <sensor name="r_lower_leg_mtb_acc_11b8" type="imu">
      <always_on>1</always_on>
      <update_rate>100.000000</update_rate>
      <pose>0.0536293 -0.0151958 -0.00431778 -1.5708 -1.57068 -1.81514 </pose>
      <plugin name="iCub_yarp_gazebo_plugin_ACC" filename="libgazebo_yarp_inertial.so"/>
    </sensor>
  </gazebo>
  <sensor name="r_lower_leg_mtb_acc_11b8" type="accelerometer">
    <parent link="r_lower_leg"/>
    <origin rpy="-1.5708 -1.57068 -1.81514 " xyz="0.0536293 -0.0151958 -0.00431778"/>
  </sensor>
  <gazebo reference="r_lower_leg">
    <sensor name="r_lower_leg_mtb_acc_11b9" type="imu">
      <always_on>1</always_on>
      <update_rate>100.000000</update_rate>
      <pose>0.0537517 0.0157229 -0.00431778 -1.5708 -1.57068 -1.22173 </pose>
      <plugin name="iCub_yarp_gazebo_plugin_ACC" filename="libgazebo_yarp_inertial.so"/>
    </sensor>
  </gazebo>
  <sensor name="r_lower_leg_mtb_acc_11b9" type="accelerometer">
    <parent link="r_lower_leg"/>
    <origin rpy="-1.5708 -1.57068 -1.22173 " xyz="0.0537517 0.0157229 -0.00431778"/>
  </sensor>
  <gazebo reference="r_lower_leg">
    <sensor name="r_lower_leg_mtb_acc_11b10" type="imu">
      <always_on>1</always_on>
      <update_rate>100.000000</update_rate>
      <pose>0.0278945 -0.042214 -0.0434679 0 -1.5708 1.8326 </pose>
      <plugin name="iCub_yarp_gazebo_plugin_ACC" filename="libgazebo_yarp_inertial.so"/>
    </sensor>
  </gazebo>
  <sensor name="r_lower_leg_mtb_acc_11b10" type="accelerometer">
    <parent link="r_lower_leg"/>
    <origin rpy="0 -1.5708 1.8326 " xyz="0.0278945 -0.042214 -0.0434679"/>
  </sensor>
  <gazebo reference="r_lower_leg">
    <sensor name="r_lower_leg_mtb_acc_11b11" type="imu">
      <always_on>1</always_on>
      <update_rate>100.000000</update_rate>
      <pose>0.0164801 0.042249 -0.0929578 -1.5708 -1.57068 -0.261799 </pose>
      <plugin name="iCub_yarp_gazebo_plugin_ACC" filename="libgazebo_yarp_inertial.so"/>
    </sensor>
  </gazebo>
  <sensor name="r_lower_leg_mtb_acc_11b11" type="accelerometer">
    <parent link="r_lower_leg"/>
    <origin rpy="-1.5708 -1.57068 -0.261799 " xyz="0.0164801 0.042249 -0.0929578"/>
  </sensor>
  <gazebo reference="r_foot">
    <sensor name="r_foot_mtb_acc_11b12" type="imu">
      <always_on>1</always_on>
      <update_rate>100.000000</update_rate>
      <pose>0.103479 -0.000812202 -0.001215 1.66535e-16 3.97651e-15 -1.5708 </pose>
      <plugin name="iCub_yarp_gazebo_plugin_ACC" filename="libgazebo_yarp_inertial.so"/>
    </sensor>
  </gazebo>
  <sensor name="r_foot_mtb_acc_11b12" type="accelerometer">
    <parent link="r_foot"/>
    <origin rpy="1.66535e-16 3.97651e-15 -1.5708 " xyz="0.103479 -0.000812202 -0.001215"/>
  </sensor>
  <gazebo reference="r_foot">
    <sensor name="r_foot_mtb_acc_11b13" type="imu">
      <always_on>1</always_on>
      <update_rate>100.000000</update_rate>
      <pose>0.0784794 -0.0118122 -0.001215 2.77556e-16 3.97635e-15 -1.5708 </pose>
      <plugin name="iCub_yarp_gazebo_plugin_ACC" filename="libgazebo_yarp_inertial.so"/>
    </sensor>
  </gazebo>
  <sensor name="r_foot_mtb_acc_11b13" type="accelerometer">
    <parent link="r_foot"/>
    <origin rpy="2.77556e-16 3.97635e-15 -1.5708 " xyz="0.0784794 -0.0118122 -0.001215"/>
  </sensor>
  <gazebo reference="l_upper_leg">
    <sensor name="l_upper_leg_ems_acc_eb6" type="imu">
      <always_on>1</always_on>
      <update_rate>100.000000</update_rate>
      <pose>-0.0125771 -0.0404072 -0.083407 0.00910113 1.5708 1.58894 </pose>
      <plugin name="iCub_yarp_gazebo_plugin_ACC" filename="libgazebo_yarp_inertial.so"/>
    </sensor>
  </gazebo>
  <sensor name="l_upper_leg_ems_acc_eb6" type="accelerometer">
    <parent link="l_upper_leg"/>
    <origin rpy="0.00910113 1.5708 1.58894 " xyz="-0.0125771 -0.0404072 -0.083407"/>
  </sensor>
  <gazebo reference="l_upper_leg">
    <sensor name="l_upper_leg_ems_acc_eb10" type="imu">
      <always_on>1</always_on>
      <update_rate>100.000000</update_rate>
      <pose>-0.0125751 0.0404072 -0.040227 3.13249 -1.5708 -1.55265 </pose>
      <plugin name="iCub_yarp_gazebo_plugin_ACC" filename="libgazebo_yarp_inertial.so"/>
    </sensor>
  </gazebo>
  <sensor name="l_upper_leg_ems_acc_eb10" type="accelerometer">
    <parent link="l_upper_leg"/>
    <origin rpy="3.13249 -1.5708 -1.55265 " xyz="-0.0125751 0.0404072 -0.040227"/>
  </sensor>
  <gazebo reference="l_upper_leg">
    <sensor name="l_upper_leg_ems_gyro_eb6" type="gyroscope">
      <always_on>1</always_on>
      <update_rate>100.000000</update_rate>
      <pose>-0.013081 -0.0404072 -0.087979 0.00910113 1.5708 1.58894 </pose>
    </sensor>
  </gazebo>
  <sensor name="l_upper_leg_ems_gyro_eb6" type="gyroscope">
    <parent link="l_upper_leg"/>
    <origin rpy="0.00910113 1.5708 1.58894 " xyz="-0.013081 -0.0404072 -0.087979"/>
  </sensor>
  <gazebo reference="l_upper_leg">
    <sensor name="l_upper_leg_ems_gyro_eb10" type="gyroscope">
      <always_on>1</always_on>
      <update_rate>100.000000</update_rate>
      <pose>-0.013079 0.0404072 -0.035655 3.13249 -1.5708 -1.55265 </pose>
    </sensor>
  </gazebo>
  <sensor name="l_upper_leg_ems_gyro_eb10" type="gyroscope">
    <parent link="l_upper_leg"/>
    <origin rpy="3.13249 -1.5708 -1.55265 " xyz="-0.013079 0.0404072 -0.035655"/>
  </sensor>
  <gazebo reference="l_upper_leg">
    <sensor name="l_upper_leg_mtb_acc_10b1" type="imu">
      <always_on>1</always_on>
      <update_rate>100.000000</update_rate>
      <pose>0.0420017 0.0315651 0.0491322 -1.5708 -1.57068 -0.733038 </pose>
      <plugin name="iCub_yarp_gazebo_plugin_ACC" filename="libgazebo_yarp_inertial.so"/>
    </sensor>
  </gazebo>
  <sensor name="l_upper_leg_mtb_acc_10b1" type="accelerometer">
    <parent link="l_upper_leg"/>
    <origin rpy="-1.5708 -1.57068 -0.733038 " xyz="0.0420017 0.0315651 0.0491322"/>
  </sensor>
  <gazebo reference="l_upper_leg">
    <sensor name="l_upper_leg_mtb_acc_10b2" type="imu">
      <always_on>1</always_on>
      <update_rate>100.000000</update_rate>
      <pose>0.0535211 0.00776573 0.0392522 -1.5708 -1.57068 -1.309 </pose>
      <plugin name="iCub_yarp_gazebo_plugin_ACC" filename="libgazebo_yarp_inertial.so"/>
    </sensor>
  </gazebo>
  <sensor name="l_upper_leg_mtb_acc_10b2" type="accelerometer">
    <parent link="l_upper_leg"/>
    <origin rpy="-1.5708 -1.57068 -1.309 " xyz="0.0535211 0.00776573 0.0392522"/>
  </sensor>
  <gazebo reference="l_upper_leg">
    <sensor name="l_upper_leg_mtb_acc_10b3" type="imu">
      <always_on>1</always_on>
      <update_rate>100.000000</update_rate>
      <pose>0.053785 0.0150706 0.0041822 1.56175 -1.5708 1.44695 </pose>
      <plugin name="iCub_yarp_gazebo_plugin_ACC" filename="libgazebo_yarp_inertial.so"/>
    </sensor>
  </gazebo>
  <sensor name="l_upper_leg_mtb_acc_10b3" type="accelerometer">
    <parent link="l_upper_leg"/>
    <origin rpy="1.56175 -1.5708 1.44695 " xyz="0.053785 0.0150706 0.0041822"/>
  </sensor>
  <gazebo reference="l_upper_leg">
    <sensor name="l_upper_leg_mtb_acc_10b4" type="imu">
      <always_on>1</always_on>
      <update_rate>100.000000</update_rate>
      <pose>0.053785 -0.0144294 0.0041822 1.56175 -1.5708 1.44695 </pose>
      <plugin name="iCub_yarp_gazebo_plugin_ACC" filename="libgazebo_yarp_inertial.so"/>
    </sensor>
  </gazebo>
  <sensor name="l_upper_leg_mtb_acc_10b4" type="accelerometer">
    <parent link="l_upper_leg"/>
    <origin rpy="1.56175 -1.5708 1.44695 " xyz="0.053785 -0.0144294 0.0041822"/>
  </sensor>
  <gazebo reference="l_upper_leg">
    <sensor name="l_upper_leg_mtb_acc_10b5" type="imu">
      <always_on>1</always_on>
      <update_rate>100.000000</update_rate>
      <pose>0.0341295 -0.0414999 -0.0048578 0.374989 -1.5708 1.4676 </pose>
      <plugin name="iCub_yarp_gazebo_plugin_ACC" filename="libgazebo_yarp_inertial.so"/>
    </sensor>
  </gazebo>
  <sensor name="l_upper_leg_mtb_acc_10b5" type="accelerometer">
    <parent link="l_upper_leg"/>
    <origin rpy="0.374989 -1.5708 1.4676 " xyz="0.0341295 -0.0414999 -0.0048578"/>
  </sensor>
  <gazebo reference="l_upper_leg">
    <sensor name="l_upper_leg_mtb_acc_10b6" type="imu">
      <always_on>1</always_on>
      <update_rate>100.000000</update_rate>
      <pose>-0.043785 0.0178111 -0.026411 -1.5708 1.57077 1.5708 </pose>
      <plugin name="iCub_yarp_gazebo_plugin_ACC" filename="libgazebo_yarp_inertial.so"/>
    </sensor>
  </gazebo>
  <sensor name="l_upper_leg_mtb_acc_10b6" type="accelerometer">
    <parent link="l_upper_leg"/>
    <origin rpy="-1.5708 1.57077 1.5708 " xyz="-0.043785 0.0178111 -0.026411"/>
  </sensor>
  <gazebo reference="l_upper_leg">
    <sensor name="l_upper_leg_mtb_acc_10b7" type="imu">
      <always_on>1</always_on>
      <update_rate>100.000000</update_rate>
      <pose>-0.043785 -0.0141918 -0.0264101 1.5708 1.57065 -1.5708 </pose>
      <plugin name="iCub_yarp_gazebo_plugin_ACC" filename="libgazebo_yarp_inertial.so"/>
    </sensor>
  </gazebo>
  <sensor name="l_upper_leg_mtb_acc_10b7" type="accelerometer">
    <parent link="l_upper_leg"/>
    <origin rpy="1.5708 1.57065 -1.5708 " xyz="-0.043785 -0.0141918 -0.0264101"/>
  </sensor>
  <gazebo reference="l_lower_leg">
    <sensor name="l_lower_leg_ems_acc_eb7" type="imu">
      <always_on>1</always_on>
      <update_rate>100.000000</update_rate>
      <pose>0.0435138 0.0113146 -0.0927643 3.14159 -1.35263 -7.81822e-14 </pose>
      <plugin name="iCub_yarp_gazebo_plugin_ACC" filename="libgazebo_yarp_inertial.so"/>
    </sensor>
  </gazebo>
  <sensor name="l_lower_leg_ems_acc_eb7" type="accelerometer">
    <parent link="l_lower_leg"/>
    <origin rpy="3.14159 -1.35263 -7.81822e-14 " xyz="0.0435138 0.0113146 -0.0927643"/>
  </sensor>
  <gazebo reference="l_lower_leg">
    <sensor name="l_lower_leg_ems_gyro_eb7" type="gyroscope">
      <always_on>1</always_on>
      <update_rate>100.000000</update_rate>
      <pose>0.0445033 0.0118185 -0.0883006 3.14159 -1.35263 -7.81822e-14 </pose>
    </sensor>
  </gazebo>
  <sensor name="l_lower_leg_ems_gyro_eb7" type="gyroscope">
    <parent link="l_lower_leg"/>
    <origin rpy="3.14159 -1.35263 -7.81822e-14 " xyz="0.0445033 0.0118185 -0.0883006"/>
  </sensor>
  <gazebo reference="l_lower_leg">
    <sensor name="l_lower_leg_mtb_acc_10b8" type="imu">
      <always_on>1</always_on>
      <update_rate>100.000000</update_rate>
      <pose>0.0531335 0.0171841 -0.0043179 2.34194 -1.5708 -0.0909262 </pose>
      <plugin name="iCub_yarp_gazebo_plugin_ACC" filename="libgazebo_yarp_inertial.so"/>
    </sensor>
  </gazebo>
  <sensor name="l_lower_leg_mtb_acc_10b8" type="accelerometer">
    <parent link="l_lower_leg"/>
    <origin rpy="2.34194 -1.5708 -0.0909262 " xyz="0.0531335 0.0171841 -0.0043179"/>
  </sensor>
  <gazebo reference="l_lower_leg">
    <sensor name="l_lower_leg_mtb_acc_10b9" type="imu">
      <always_on>1</always_on>
      <update_rate>100.000000</update_rate>
      <pose>0.0544519 -0.0137991 -0.00431778 -1.5708 -1.57068 -1.91986 </pose>
      <plugin name="iCub_yarp_gazebo_plugin_ACC" filename="libgazebo_yarp_inertial.so"/>
    </sensor>
  </gazebo>
  <sensor name="l_lower_leg_mtb_acc_10b9" type="accelerometer">
    <parent link="l_lower_leg"/>
    <origin rpy="-1.5708 -1.57068 -1.91986 " xyz="0.0544519 -0.0137991 -0.00431778"/>
  </sensor>
  <gazebo reference="l_lower_leg">
    <sensor name="l_lower_leg_mtb_acc_10b10" type="imu">
      <always_on>1</always_on>
      <update_rate>100.000000</update_rate>
      <pose>0.0259151 0.0427444 -0.0434678 -1.5708 -1.57068 -0.261799 </pose>
      <plugin name="iCub_yarp_gazebo_plugin_ACC" filename="libgazebo_yarp_inertial.so"/>
    </sensor>
  </gazebo>
  <sensor name="l_lower_leg_mtb_acc_10b10" type="accelerometer">
    <parent link="l_lower_leg"/>
    <origin rpy="-1.5708 -1.57068 -0.261799 " xyz="0.0259151 0.0427444 -0.0434678"/>
  </sensor>
  <gazebo reference="l_lower_leg">
    <sensor name="l_lower_leg_mtb_acc_10b11" type="imu">
      <always_on>1</always_on>
      <update_rate>100.000000</update_rate>
      <pose>0.0184593 -0.0417187 -0.0929579 1.5708 -1.57077 0.261799 </pose>
      <plugin name="iCub_yarp_gazebo_plugin_ACC" filename="libgazebo_yarp_inertial.so"/>
    </sensor>
  </gazebo>
  <sensor name="l_lower_leg_mtb_acc_10b11" type="accelerometer">
    <parent link="l_lower_leg"/>
    <origin rpy="1.5708 -1.57077 0.261799 " xyz="0.0184593 -0.0417187 -0.0929579"/>
  </sensor>
  <gazebo reference="l_foot">
    <sensor name="l_foot_mtb_acc_10b12" type="imu">
      <always_on>1</always_on>
      <update_rate>100.000000</update_rate>
      <pose>0.105527 0.0008122 -0.001215 -5.55112e-17 1.63879e-14 1.5708 </pose>
      <plugin name="iCub_yarp_gazebo_plugin_ACC" filename="libgazebo_yarp_inertial.so"/>
    </sensor>
  </gazebo>
  <sensor name="l_foot_mtb_acc_10b12" type="accelerometer">
    <parent link="l_foot"/>
    <origin rpy="-5.55112e-17 1.63879e-14 1.5708 " xyz="0.105527 0.0008122 -0.001215"/>
  </sensor>
  <gazebo reference="l_foot">
    <sensor name="l_foot_mtb_acc_10b13" type="imu">
      <always_on>1</always_on>
      <update_rate>100.000000</update_rate>
      <pose>0.0805274 0.0118122 -0.001215 -5.55112e-17 1.63887e-14 1.5708 </pose>
      <plugin name="iCub_yarp_gazebo_plugin_ACC" filename="libgazebo_yarp_inertial.so"/>
    </sensor>
  </gazebo>
  <sensor name="l_foot_mtb_acc_10b13" type="accelerometer">
    <parent link="l_foot"/>
    <origin rpy="-5.55112e-17 1.63887e-14 1.5708 " xyz="0.0805274 0.0118122 -0.001215"/>
  </sensor>
  <gazebo reference="r_hip_2">
    <sensor name="r_upper_leg_ft_acc_3b11" type="imu">
      <always_on>1</always_on>
      <update_rate>100.000000</update_rate>
      <pose>0.00656384 -0.00858611 -0.059282 -1.67306e-16 -4.38741e-15 1.5708 </pose>
      <plugin name="iCub_yarp_gazebo_plugin_ACC" filename="libgazebo_yarp_inertial.so"/>
    </sensor>
  </gazebo>
  <sensor name="r_upper_leg_ft_acc_3b11" type="accelerometer">
    <parent link="r_hip_2"/>
    <origin rpy="-1.67306e-16 -4.38741e-15 1.5708 " xyz="0.00656384 -0.00858611 -0.059282"/>
  </sensor>
  <gazebo reference="r_hip_2">
    <sensor name="r_upper_leg_ft_gyro_3b11" type="gyroscope">
      <always_on>1</always_on>
      <update_rate>100.000000</update_rate>
      <pose>0.00656384 -0.00858611 -0.059282 -1.67306e-16 -4.38741e-15 1.5708 </pose>
    </sensor>
  </gazebo>
  <sensor name="r_upper_leg_ft_gyro_3b11" type="gyroscope">
    <parent link="r_hip_2"/>
    <origin rpy="-1.67306e-16 -4.38741e-15 1.5708 " xyz="0.00656384 -0.00858611 -0.059282"/>
  </sensor>
  <gazebo reference="r_ankle_2">
    <sensor name="r_foot_ft_acc_3b14" type="imu">
      <always_on>1</always_on>
      <update_rate>100.000000</update_rate>
      <pose>0.00400013 -0.0086 -0.045282 3.12262e-29 -4.37653e-15 1.5708 </pose>
      <plugin name="iCub_yarp_gazebo_plugin_ACC" filename="libgazebo_yarp_inertial.so"/>
    </sensor>
  </gazebo>
  <sensor name="r_foot_ft_acc_3b14" type="accelerometer">
    <parent link="r_ankle_2"/>
    <origin rpy="3.12262e-29 -4.37653e-15 1.5708 " xyz="0.00400013 -0.0086 -0.045282"/>
  </sensor>
  <gazebo reference="r_ankle_2">
    <sensor name="r_foot_ft_gyro_3b14" type="gyroscope">
      <always_on>1</always_on>
      <update_rate>100.000000</update_rate>
      <pose>0.00400013 -0.0086 -0.045282 3.12262e-29 -4.37653e-15 1.5708 </pose>
    </sensor>
  </gazebo>
  <sensor name="r_foot_ft_gyro_3b14" type="gyroscope">
    <parent link="r_ankle_2"/>
    <origin rpy="3.12262e-29 -4.37653e-15 1.5708 " xyz="0.00400013 -0.0086 -0.045282"/>
  </sensor>
  <gazebo reference="l_hip_2">
    <sensor name="l_upper_leg_ft_acc_3b12" type="imu">
      <always_on>1</always_on>
      <update_rate>100.000000</update_rate>
      <pose>0.00666999 -0.00852482 -0.059282 -2.22045e-16 -4.00448e-15 1.5708 </pose>
      <plugin name="iCub_yarp_gazebo_plugin_ACC" filename="libgazebo_yarp_inertial.so"/>
    </sensor>
  </gazebo>
  <sensor name="l_upper_leg_ft_acc_3b12" type="accelerometer">
    <parent link="l_hip_2"/>
    <origin rpy="-2.22045e-16 -4.00448e-15 1.5708 " xyz="0.00666999 -0.00852482 -0.059282"/>
  </sensor>
  <gazebo reference="l_hip_2">
    <sensor name="l_upper_leg_ft_gyro_3b12" type="gyroscope">
      <always_on>1</always_on>
      <update_rate>100.000000</update_rate>
      <pose>0.00666999 -0.00852482 -0.059282 -2.22045e-16 -4.00448e-15 1.5708 </pose>
    </sensor>
  </gazebo>
  <sensor name="l_upper_leg_ft_gyro_3b12" type="gyroscope">
    <parent link="l_hip_2"/>
    <origin rpy="-2.22045e-16 -4.00448e-15 1.5708 " xyz="0.00666999 -0.00852482 -0.059282"/>
  </sensor>
  <gazebo reference="l_ankle_2">
    <sensor name="l_foot_ft_acc_3b13" type="imu">
      <always_on>1</always_on>
      <update_rate>100.000000</update_rate>
      <pose>0.00400013 -0.0086 -0.045282 -2.22045e-16 -3.68286e-15 1.5708 </pose>
      <plugin name="iCub_yarp_gazebo_plugin_ACC" filename="libgazebo_yarp_inertial.so"/>
    </sensor>
  </gazebo>
  <sensor name="l_foot_ft_acc_3b13" type="accelerometer">
    <parent link="l_ankle_2"/>
    <origin rpy="-2.22045e-16 -3.68286e-15 1.5708 " xyz="0.00400013 -0.0086 -0.045282"/>
  </sensor>
  <gazebo reference="l_ankle_2">
    <sensor name="l_foot_ft_gyro_3b13" type="gyroscope">
      <always_on>1</always_on>
      <update_rate>100.000000</update_rate>
      <pose>0.00400013 -0.0086 -0.045282 -2.22045e-16 -3.68286e-15 1.5708 </pose>
    </sensor>
  </gazebo>
  <sensor name="l_foot_ft_gyro_3b13" type="gyroscope">
    <parent link="l_ankle_2"/>
    <origin rpy="-2.22045e-16 -3.68286e-15 1.5708 " xyz="0.00400013 -0.0086 -0.045282"/>
  </sensor>
</robot>
